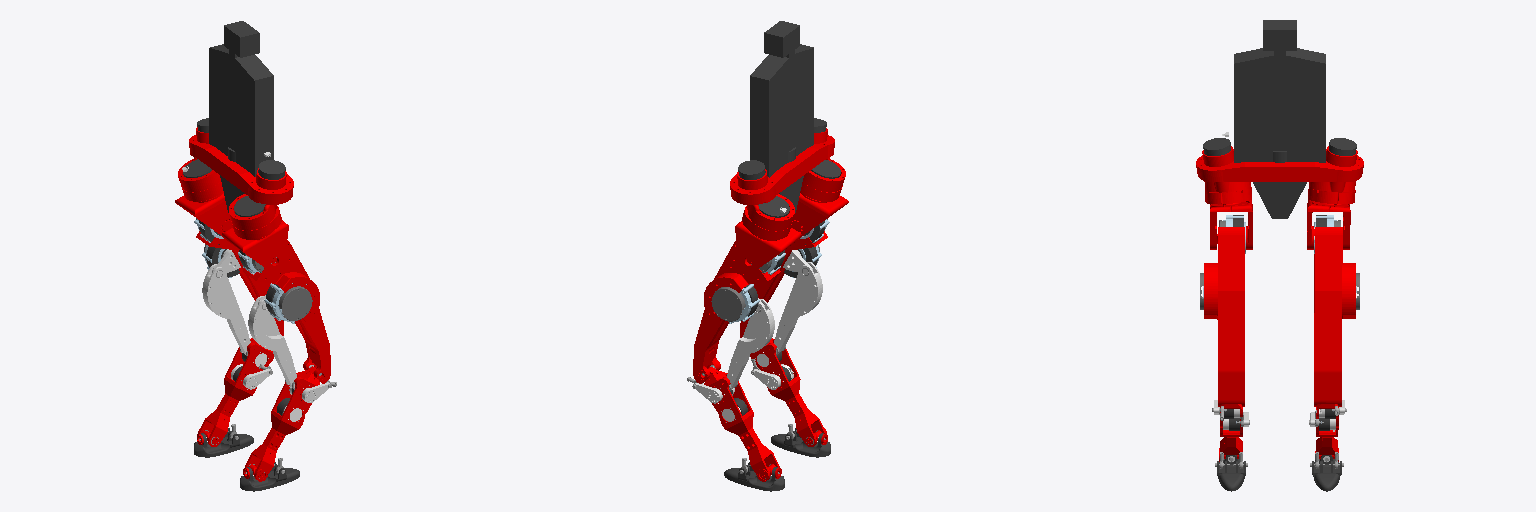
--- Render facts (derived) ---
3 views of the same robot in one strip: view 1: azimuth 30°, elevation 25°; view 2: azimuth 150°, elevation 25°; view 3: azimuth 270°, elevation 25° (orthographic).
Model urdf with 17 links and 16 joints (12 revolute, 4 fixed), rooted at torso_subassembly, posed all joints at 0.
Links seen in each view (by area): view 1: torso_mesh, tigh_subassembly, tigh_subassembly_sym, torso_subassembly, shin_subassembly, shin_subassembly_sym, hipx_subassembly, hipy_subassembly, hipx_subassemby_sym, hipy_subassembly_sym, foot_subassembly_2, foot_subassembly; view 2: torso_mesh, tigh_subassembly_sym, tigh_subassembly, torso_subassembly, shin_subassembly_sym, shin_subassembly, hipx_subassemby_sym, hipy_subassembly_sym, hipx_subassembly, hipy_subassembly, foot_subassembly, foot_subassembly_2; view 3: torso_mesh, tigh_subassembly_sym, tigh_subassembly, torso_subassembly, shin_subassembly, shin_subassembly_sym, hipx_subassemby_sym, hipx_subassembly, hipy_subassembly_sym, foot_subassembly_2, hipy_subassembly, foot_subassembly.
Boxes of the visible links, bbox=[...] form: torso_mesh: bbox=[209, 21, 273, 212]; tigh_subassembly: bbox=[238, 240, 330, 389]; tigh_subassembly_sym: bbox=[194, 218, 283, 355]; torso_subassembly: bbox=[189, 118, 293, 204]; shin_subassembly: bbox=[245, 366, 336, 481]; shin_subassembly_sym: bbox=[198, 338, 273, 446]; hipx_subassembly: bbox=[229, 194, 281, 239]; hipy_subassembly: bbox=[222, 220, 288, 271]; hipx_subassemby_sym: bbox=[178, 157, 222, 201]; hipy_subassembly_sym: bbox=[175, 191, 232, 235]; foot_subassembly_2: bbox=[194, 424, 253, 457]; foot_subassembly: bbox=[240, 458, 299, 491]; torso_mesh: bbox=[750, 21, 813, 212]; tigh_subassembly_sym: bbox=[693, 241, 785, 390]; tigh_subassembly: bbox=[740, 219, 829, 355]; torso_subassembly: bbox=[730, 118, 834, 204]; shin_subassembly_sym: bbox=[687, 366, 779, 481]; shin_subassembly: bbox=[750, 338, 826, 446]; hipx_subassemby_sym: bbox=[742, 194, 794, 239]; hipy_subassembly_sym: bbox=[735, 221, 801, 271]; hipx_subassembly: bbox=[800, 157, 845, 201]; hipy_subassembly: bbox=[791, 192, 848, 235]; foot_subassembly: bbox=[771, 424, 830, 457]; foot_subassembly_2: bbox=[724, 458, 784, 491]; torso_mesh: bbox=[1234, 20, 1325, 218]; tigh_subassembly_sym: bbox=[1314, 215, 1359, 406]; tigh_subassembly: bbox=[1200, 215, 1245, 406]; torso_subassembly: bbox=[1196, 132, 1363, 181]; shin_subassembly: bbox=[1212, 400, 1249, 461]; shin_subassembly_sym: bbox=[1309, 400, 1346, 461]; hipx_subassemby_sym: bbox=[1308, 181, 1355, 206]; hipx_subassembly: bbox=[1204, 181, 1251, 206]; hipy_subassembly_sym: bbox=[1307, 200, 1350, 249]; foot_subassembly_2: bbox=[1310, 452, 1343, 491]; hipy_subassembly: bbox=[1210, 200, 1252, 249]; foot_subassembly: bbox=[1215, 452, 1247, 491].
Size in the robot's own frame: 0.2617 by 0.3635 by 1.07 metres.
166 mesh visuals loaded from 54 distinct referenced files (53 binary STL); not drawn: 8 (reference not matched to a file when rendering).

robot.urdf — urdf:
<?xml version="1.0" ?>
<!-- Generated using onshape-to-robot -->
<!-- Onshape https://cad.onshape.com/documents/fb645318a27646d1d8840be6/w/d1cae8805fb652b4d1614997/e/804a1da43f242001a05129b4 -->
<robot name="urdf">
  <!-- Link torso_subassembly -->
  <link name="torso_subassembly">
    <inertial>
      <origin xyz="-0.000668828 4.08197e-07 0.0384522" rpy="0 0 0"/>
      <mass value="1.68455"/>
      <inertia ixx="0.0196473" ixy="-3.02227e-10" ixz="9.19521e-07" iyy="0.00141686" iyz="1.31114e-10" izz="0.0199217"/>
    </inertial>
    <!-- Part robstrideo0 -->
    <visual>
      <origin xyz="-0.673363 0.0109625 0.061034" rpy="1.5708 5.05777e-15 -3.16527e-29"/>
      <geometry>
        <mesh filename="package://assets/robstrideo0.stl"/>
      </geometry>
      <material name="robstrideo0_material">
        <color rgba="0.301961 0.301961 0.301961 1"/>
      </material>
    </visual>
    <collision>
      <origin xyz="-0.673363 0.0109625 0.061034" rpy="1.5708 5.05777e-15 -3.16527e-29"/>
      <geometry>
        <mesh filename="package://assets/robstrideo0.stl"/>
      </geometry>
    </collision>
    <!-- Part rs00 -->
    <!-- Part torso22 -->
    <visual>
      <origin xyz="-0.000263039 0.233572 -0.0901625" rpy="-2.85923 -5.05932e-15 -3.14159"/>
      <geometry>
        <mesh filename="package://assets/torso22.stl"/>
      </geometry>
      <material name="torso22_material">
        <color rgba="1 0 0 1"/>
      </material>
    </visual>
    <collision>
      <origin xyz="-0.000263039 0.233572 -0.0901625" rpy="-2.85923 -5.05932e-15 -3.14159"/>
      <geometry>
        <mesh filename="package://assets/torso22.stl"/>
      </geometry>
    </collision>
    <!-- Part hex_socket_head_cap_screw_m4x0_70_x_20__832e47d784177ea3f1dabbaab534416e -->
    <!-- Part rs00_2 -->
    <!-- Part hex_socket_head_cap_screw_m4x0_70_x_20__832e47d784177ea3f1dabbaab534416e_2 -->
    <!-- Part hex_socket_head_cap_screw_m3x0_50_x_8__d566997e1880d7fd3377c5b0ee12206c -->
    <!-- Part hex_socket_head_cap_screw_m3x0_50_x_8__d566997e1880d7fd3377c5b0ee12206c_2 -->
    <!-- Part bearing_35_72_17 -->
    <visual>
      <origin xyz="-0.000887454 -0.130401 0.0222352" rpy="1.42962 -0.00345593 -3.1411"/>
      <geometry>
        <mesh filename="package://assets/bearing_35_72_17.stl"/>
      </geometry>
      <material name="bearing_35_72_17_material">
        <color rgba="0.768627 0.886275 0.952941 1"/>
      </material>
    </visual>
    <collision>
      <origin xyz="-0.000887454 -0.130401 0.0222352" rpy="1.42962 -0.00345593 -3.1411"/>
      <geometry>
        <mesh filename="package://assets/bearing_35_72_17.stl"/>
      </geometry>
    </collision>
    <!-- Part hex_socket_head_cap_screw_m4x0_70_x_20__832e47d784177ea3f1dabbaab534416e_3 -->
    <!-- Part hex_socket_head_cap_screw_m4x0_70_x_20__832e47d784177ea3f1dabbaab534416e_4 -->
    <!-- Part hex_socket_head_cap_screw_m4x0_70_x_20__832e47d784177ea3f1dabbaab534416e_5 -->
    <!-- Part robstrideo0_2 -->
    <visual>
      <origin xyz="0.672086 -0.147255 0.0629195" rpy="1.42962 -0.00345593 -3.1411"/>
      <geometry>
        <mesh filename="package://assets/robstrideo0.stl"/>
      </geometry>
      <material name="robstrideo0_2_material">
        <color rgba="0.301961 0.301961 0.301961 1"/>
      </material>
    </visual>
    <collision>
      <origin xyz="0.672086 -0.147255 0.0629195" rpy="1.42962 -0.00345593 -3.1411"/>
      <geometry>
        <mesh filename="package://assets/robstrideo0.stl"/>
      </geometry>
    </collision>
    <!-- Part hex_socket_head_cap_screw_m3x0_50_x_8__d566997e1880d7fd3377c5b0ee12206c_3 -->
    <!-- Part hex_socket_head_cap_screw_m4x0_70_x_20__832e47d784177ea3f1dabbaab534416e_6 -->
    <!-- Part hex_socket_head_cap_screw_m3x0_50_x_8__d566997e1880d7fd3377c5b0ee12206c_4 -->
    <!-- Part hex_socket_head_cap_screw_m4x0_70_x_20__832e47d784177ea3f1dabbaab534416e_7 -->
    <!-- Part hex_socket_head_cap_screw_m4x0_70_x_20__832e47d784177ea3f1dabbaab534416e_8 -->
    <!-- Part hex_socket_head_cap_screw_m3x0_50_x_8__d566997e1880d7fd3377c5b0ee12206c_5 -->
    <!-- Part hex_socket_head_cap_screw_m4x0_70_x_20__832e47d784177ea3f1dabbaab534416e_9 -->
    <!-- Part hex_socket_head_cap_screw_m3x0_50_x_8__d566997e1880d7fd3377c5b0ee12206c_6 -->
    <!-- Part robstrideo0_3 -->
    <visual>
      <origin xyz="0.672086 0.12555 0.0660044" rpy="1.71198 -0.00345593 3.1411"/>
      <geometry>
        <mesh filename="package://assets/robstrideo0.stl"/>
      </geometry>
      <material name="robstrideo0_3_material">
        <color rgba="0.301961 0.301961 0.301961 1"/>
      </material>
    </visual>
    <collision>
      <origin xyz="0.672086 0.12555 0.0660044" rpy="1.71198 -0.00345593 3.1411"/>
      <geometry>
        <mesh filename="package://assets/robstrideo0.stl"/>
      </geometry>
    </collision>
    <!-- Part hex_socket_head_cap_screw_m3x0_50_x_8__d566997e1880d7fd3377c5b0ee12206c_7 -->
    <!-- Part hex_socket_head_cap_screw_m3x0_50_x_8__d566997e1880d7fd3377c5b0ee12206c_8 -->
    <!-- Part hex_socket_head_cap_screw_m4x0_70_x_20__832e47d784177ea3f1dabbaab534416e_10 -->
    <!-- Part torso12 -->
    <visual>
      <origin xyz="-0.000263039 4.05842e-07 -0.056966" rpy="3.14159 -5.05777e-15 3.14159"/>
      <geometry>
        <mesh filename="package://assets/torso12.stl"/>
      </geometry>
      <material name="torso12_material">
        <color rgba="1 0 0 1"/>
      </material>
    </visual>
    <collision>
      <origin xyz="-0.000263039 4.05842e-07 -0.056966" rpy="3.14159 -5.05777e-15 3.14159"/>
      <geometry>
        <mesh filename="package://assets/torso12.stl"/>
      </geometry>
    </collision>
    <!-- Part hex_socket_head_cap_screw_m4x0_70_x_20__832e47d784177ea3f1dabbaab534416e_11 -->
    <!-- Part hex_socket_head_cap_screw_m4x0_70_x_20__832e47d784177ea3f1dabbaab534416e_12 -->
    <!-- Part torso22_2 -->
    <visual>
      <origin xyz="-0.000263039 4.05842e-07 -0.056966" rpy="3.14159 -5.05777e-15 3.14159"/>
      <geometry>
        <mesh filename="package://assets/torso22.stl"/>
      </geometry>
      <material name="torso22_2_material">
        <color rgba="1 0 0 1"/>
      </material>
    </visual>
    <collision>
      <origin xyz="-0.000263039 4.05842e-07 -0.056966" rpy="3.14159 -5.05777e-15 3.14159"/>
      <geometry>
        <mesh filename="package://assets/torso22.stl"/>
      </geometry>
    </collision>
    <!-- Part hex_socket_head_cap_screw_m4x0_70_x_20__832e47d784177ea3f1dabbaab534416e_13 -->
    <!-- Part bearing_35_72_17_2 -->
    <visual>
      <origin xyz="-0.000887454 0.130402 0.0222352" rpy="1.71198 -0.00345593 3.1411"/>
      <geometry>
        <mesh filename="package://assets/bearing_35_72_17.stl"/>
      </geometry>
      <material name="bearing_35_72_17_2_material">
        <color rgba="0.768627 0.886275 0.952941 1"/>
      </material>
    </visual>
    <collision>
      <origin xyz="-0.000887454 0.130402 0.0222352" rpy="1.71198 -0.00345593 3.1411"/>
      <geometry>
        <mesh filename="package://assets/bearing_35_72_17.stl"/>
      </geometry>
    </collision>
    <!-- Part hex_socket_head_cap_screw_m3x0_50_x_8__d566997e1880d7fd3377c5b0ee12206c_9 -->
    <!-- Part hex_socket_head_cap_screw_m3x0_50_x_8__d566997e1880d7fd3377c5b0ee12206c_10 -->
    <!-- Part hex_socket_head_cap_screw_m3x0_50_x_8__d566997e1880d7fd3377c5b0ee12206c_11 -->
    <!-- Part hex_socket_head_cap_screw_m4x0_70_x_20__832e47d784177ea3f1dabbaab534416e_14 -->
    <!-- Part xt_30_2x2_f -->
    <visual>
      <origin xyz="-3.97731e-05 -0.105809 0.0903709" rpy="3.11704 -1.42957 -1.54599"/>
      <geometry>
        <mesh filename="package://assets/xt_30_2x2_f.stl"/>
      </geometry>
      <material name="xt_30_2x2_f_material">
        <color rgba="0.917647 0.917647 0.917647 1"/>
      </material>
    </visual>
    <collision>
      <origin xyz="-3.97731e-05 -0.105809 0.0903709" rpy="3.11704 -1.42957 -1.54599"/>
      <geometry>
        <mesh filename="package://assets/xt_30_2x2_f.stl"/>
      </geometry>
    </collision>
    <!-- Part hex_socket_head_cap_screw_m4x0_70_x_20__832e47d784177ea3f1dabbaab534416e_15 -->
    <!-- Part hex_socket_head_cap_screw_m4x0_70_x_20__832e47d784177ea3f1dabbaab534416e_16 -->
    <!-- Part hex_socket_head_cap_screw_m3x0_50_x_8__d566997e1880d7fd3377c5b0ee12206c_12 -->
  </link>
  <!-- Frame torso (dummy link + fixed joint) -->
  <link name="torso">
    <origin xyz="0 0 0" rpy="0 -0 0"/>
    <inertial>
      <origin xyz="0 0 0" rpy="0 0 0"/>
      <mass value="1e-9"/>
      <inertia ixx="0" ixy="0" ixz="0" iyy="0" iyz="0" izz="0"/>
    </inertial>
  </link>
  <joint name="torso_frame" type="fixed">
    <origin xyz="1.28979e-17 1.37152e-17 -3.20924e-17" rpy="4.10208e-29 5.06304e-15 -3.16699e-29"/>
    <parent link="torso_subassembly"/>
    <child link="torso"/>
    <axis xyz="0 0 0"/>
  </joint>
  <!-- Link hipx_subassembly -->
  <link name="hipx_subassembly">
    <inertial>
      <origin xyz="-0.0179437 -0.0274254 -0.0837243" rpy="0 0 0"/>
      <mass value="0.794013"/>
      <inertia ixx="0.00093782" ixy="-4.40032e-05" ixz="-0.00011053" iyy="0.000903422" iyz="-0.000168643" izz="0.00100397"/>
    </inertial>
    <!-- Part rs02 -->
    <!-- Part hex_socket_head_cap_screw_m4x0_70_x_40__14321d45d56569246e7feb4574a6bae6 -->
    <!-- Part hex_socket_head_cap_screw_m3x0_50_x_8__d566997e1880d7fd3377c5b0ee12206c_13 -->
    <!-- Part hex_socket_head_cap_screw_m3x0_50_x_8__d566997e1880d7fd3377c5b0ee12206c_14 -->
    <!-- Part hex_socket_head_cap_screw_m4x0_70_x_40__14321d45d56569246e7feb4574a6bae6_2 -->
    <!-- Part hex_socket_head_cap_screw_m3x0_50_x_8__d566997e1880d7fd3377c5b0ee12206c_15 -->
    <!-- Part xt_30_2x2_f_2 -->
    <visual>
      <origin xyz="-0.0280156 -0.000591536 -0.0506633" rpy="-2.51827 -1.25093 -2.15149"/>
      <geometry>
        <mesh filename="package://assets/xt_30_2x2_f.stl"/>
      </geometry>
      <material name="xt_30_2x2_f_2_material">
        <color rgba="0.917647 0.917647 0.917647 1"/>
      </material>
    </visual>
    <collision>
      <origin xyz="-0.0280156 -0.000591536 -0.0506633" rpy="-2.51827 -1.25093 -2.15149"/>
      <geometry>
        <mesh filename="package://assets/xt_30_2x2_f.stl"/>
      </geometry>
    </collision>
    <!-- Part hex_socket_head_cap_screw_m3x0_50_x_8__d566997e1880d7fd3377c5b0ee12206c_16 -->
    <!-- Part hex_socket_head_cap_screw_m4x0_70_x_40__14321d45d56569246e7feb4574a6bae6_3 -->
    <!-- Part hex_socket_head_cap_screw_m4x0_70_x_40__14321d45d56569246e7feb4574a6bae6_4 -->
    <!-- Part hex_socket_head_cap_screw_m3x0_50_x_8__d566997e1880d7fd3377c5b0ee12206c_17 -->
    <!-- Part hipz12 -->
    <visual>
      <origin xyz="-1.38778e-17 6.93889e-18 -0.1" rpy="-3.14159 1.32469e-17 -1.19752e-17"/>
      <geometry>
        <mesh filename="package://assets/hipz12.stl"/>
      </geometry>
      <material name="hipz12_material">
        <color rgba="1 0 0 1"/>
      </material>
    </visual>
    <collision>
      <origin xyz="-1.38778e-17 6.93889e-18 -0.1" rpy="-3.14159 1.32469e-17 -1.19752e-17"/>
      <geometry>
        <mesh filename="package://assets/hipz12.stl"/>
      </geometry>
    </collision>
    <!-- Part hex_socket_head_cap_screw_m4x0_70_x_40__14321d45d56569246e7feb4574a6bae6_5 -->
    <!-- Part hex_socket_head_cap_screw_m3x0_50_x_8__d566997e1880d7fd3377c5b0ee12206c_18 -->
    <!-- Part hex_socket_head_cap_screw_m3x0_50_x_8__d566997e1880d7fd3377c5b0ee12206c_19 -->
    <!-- Part robstride02 -->
    <visual>
      <origin xyz="-0.575896 0.0494047 -0.172196" rpy="-1.29671 -0.167023 -0.0467087"/>
      <geometry>
        <mesh filename="package://assets/robstride02.stl"/>
      </geometry>
      <material name="robstride02_material">
        <color rgba="0.301961 0.301961 0.301961 1"/>
      </material>
    </visual>
    <collision>
      <origin xyz="-0.575896 0.0494047 -0.172196" rpy="-1.29671 -0.167023 -0.0467087"/>
      <geometry>
        <mesh filename="package://assets/robstride02.stl"/>
      </geometry>
    </collision>
    <!-- Part hex_socket_head_cap_screw_m4x0_70_x_40__14321d45d56569246e7feb4574a6bae6_6 -->
    <!-- Part hex_socket_head_cap_screw_m3x0_50_x_8__d566997e1880d7fd3377c5b0ee12206c_20 -->
    <!-- Part hex_socket_head_cap_screw_m4x0_70_x_40__14321d45d56569246e7feb4574a6bae6_7 -->
    <!-- Part hex_socket_head_cap_screw_m4x0_70_x_40__14321d45d56569246e7feb4574a6bae6_8 -->
    <!-- Part hex_socket_head_cap_screw_m3x0_50_x_8__d566997e1880d7fd3377c5b0ee12206c_21 -->
    <!-- Part bearing_35_72_17_3 -->
    <visual>
      <origin xyz="-0.01759 -0.0267968 -0.104484" rpy="1.84488 -0.167023 -0.0467087"/>
      <geometry>
        <mesh filename="package://assets/bearing_35_72_17.stl"/>
      </geometry>
      <material name="bearing_35_72_17_3_material">
        <color rgba="0.768627 0.886275 0.952941 1"/>
      </material>
    </visual>
    <collision>
      <origin xyz="-0.01759 -0.0267968 -0.104484" rpy="1.84488 -0.167023 -0.0467087"/>
      <geometry>
        <mesh filename="package://assets/bearing_35_72_17.stl"/>
      </geometry>
    </collision>
    <!-- Part hex_socket_head_cap_screw_m3x0_50_x_8__d566997e1880d7fd3377c5b0ee12206c_22 -->
    <!-- Part hex_socket_head_cap_screw_m3x0_50_x_8__d566997e1880d7fd3377c5b0ee12206c_23 -->
    <!-- Part hex_socket_head_cap_screw_m4x0_70_x_40__14321d45d56569246e7feb4574a6bae6_9 -->
    <!-- Part hex_socket_head_cap_screw_m3x0_50_x_8__d566997e1880d7fd3377c5b0ee12206c_24 -->
    <!-- Part hipz22 -->
    <visual>
      <origin xyz="-1.38778e-17 6.93889e-18 -0.1" rpy="-3.14159 6.82054e-17 3.01998e-16"/>
      <geometry>
        <mesh filename="package://assets/hipz22.stl"/>
      </geometry>
      <material name="hipz22_material">
        <color rgba="1 0 0 1"/>
      </material>
    </visual>
    <collision>
      <origin xyz="-1.38778e-17 6.93889e-18 -0.1" rpy="-3.14159 6.82054e-17 3.01998e-16"/>
      <geometry>
        <mesh filename="package://assets/hipz22.stl"/>
      </geometry>
    </collision>
    <!-- Part hex_socket_head_cap_screw_m3x0_50_x_8__d566997e1880d7fd3377c5b0ee12206c_25 -->
    <!-- Part hex_socket_head_cap_screw_m3x0_50_x_8__d566997e1880d7fd3377c5b0ee12206c_26 -->
    <!-- Part hex_socket_head_cap_screw_m3x0_50_x_8__d566997e1880d7fd3377c5b0ee12206c_27 -->
    <!-- Part hex_socket_head_cap_screw_m4x0_70_x_40__14321d45d56569246e7feb4574a6bae6_10 -->
  </link>
  <!-- Link hipy_subassembly -->
  <link name="hipy_subassembly">
    <inertial>
      <origin xyz="0.00476547 -0.00266343 -0.0607297" rpy="0 0 0"/>
      <mass value="0.241618"/>
      <inertia ixx="0.000504044" ixy="2.43362e-05" ixz="7.84949e-06" iyy="0.000455767" iyz="-3.61499e-05" izz="0.000428966"/>
    </inertial>
    <!-- Part hex_socket_head_cap_screw_m4x0_70_x_20__832e47d784177ea3f1dabbaab534416e_17 -->
    <!-- Part hipxy -->
    <visual>
      <origin xyz="-6.50521e-18 1.38778e-17 0" rpy="-1.13176e-17 7.73754e-17 -2.3639e-17"/>
      <geometry>
        <mesh filename="package://assets/hipxy.stl"/>
      </geometry>
      <material name="hipxy_material">
        <color rgba="1 0 0 1"/>
      </material>
    </visual>
    <collision>
      <origin xyz="-6.50521e-18 1.38778e-17 0" rpy="-1.13176e-17 7.73754e-17 -2.3639e-17"/>
      <geometry>
        <mesh filename="package://assets/hipxy.stl"/>
      </geometry>
    </collision>
    <!-- Part hex_socket_head_cap_screw_m4x0_70_x_20__832e47d784177ea3f1dabbaab534416e_18 -->
    <!-- Part hex_socket_head_cap_screw_m4x0_70_x_20__832e47d784177ea3f1dabbaab534416e_19 -->
    <!-- Part hex_socket_head_cap_screw_m4x0_70_x_12__c825518ee8edf1afced0eee1b019b750 -->
    <!-- Part hex_socket_head_cap_screw_m4x0_70_x_20__832e47d784177ea3f1dabbaab534416e_20 -->
    <!-- Part hex_socket_head_cap_screw_m4x0_70_x_12__c825518ee8edf1afced0eee1b019b750_2 -->
    <!-- Part hex_socket_head_cap_screw_m4x0_70_x_12__c825518ee8edf1afced0eee1b019b750_3 -->
    <!-- Part hex_socket_head_cap_screw_m4x0_70_x_20__832e47d784177ea3f1dabbaab534416e_21 -->
    <!-- Part hex_socket_head_cap_screw_m4x0_70_x_20__832e47d784177ea3f1dabbaab534416e_22 -->
    <!-- Part hex_socket_head_cap_screw_m4x0_70_x_12__c825518ee8edf1afced0eee1b019b750_4 -->
    <!-- Part hex_socket_head_cap_screw_m4x0_70_x_12__c825518ee8edf1afced0eee1b019b750_5 -->
    <!-- Part hex_socket_head_cap_screw_m4x0_70_x_12__c825518ee8edf1afced0eee1b019b750_6 -->
  </link>
  <!-- Link tigh_subassembly -->
  <link name="tigh_subassembly">
    <inertial>
      <origin xyz="0.0501976 0.0785779 -0.0353813" rpy="0 0 0"/>
      <mass value="2.5804"/>
      <inertia ixx="0.0174359" ixy="-0.0081889" ixz="0.000938636" iyy="0.00865749" iyz="0.00155247" izz="0.0236145"/>
    </inertial>
    <!-- Part hex_socket_head_cap_screw_m3x0_50_x_10__9c80fcbba574884e63b580474e1ee150 -->
    <!-- Part hex_socket_head_cap_screw_m2_5x0_45_x_6__ec244025d76f8b83b2775022a2cb3232 -->
    <!-- Part hex_socket_head_cap_screw_m4x0_70_x_8__a416dc2a8d778a4ef6150c0739aa89d1 -->
    <!-- Part hex_socket_head_cap_screw_m2_5x0_45_x_6__ec244025d76f8b83b2775022a2cb3232_2 -->
    <!-- Part hex_socket_head_cap_screw_m4x0_70_x_8__a416dc2a8d778a4ef6150c0739aa89d1_2 -->
    <!-- Part hex_socket_head_cap_screw_m3x0_50_x_10__9c80fcbba574884e63b580474e1ee150_2 -->
    <!-- Part hex_socket_head_cap_screw_m4x0_70_x_16__8d628c0d7a90368385b1c4c7479647eb -->
    <!-- Part hex_socket_head_cap_screw_m4x0_70_x_8__a416dc2a8d778a4ef6150c0739aa89d1_3 -->
    <!-- Part hex_socket_head_cap_screw_m4x0_70_x_16__8d628c0d7a90368385b1c4c7479647eb_2 -->
    <!-- Part hex_socket_head_cap_screw_m4x0_70_x_8__a416dc2a8d778a4ef6150c0739aa89d1_4 -->
    <!-- Part knee_rod22 -->
    <visual>
      <origin xyz="0.210506 0.184547 -0.0305" rpy="1.5708 -2.30453e-13 -1.0472"/>
      <geometry>
        <mesh filename="package://assets/knee_rod22.stl"/>
      </geometry>
      <material name="knee_rod22_material">
        <color rgba="0.917647 0.917647 0.917647 1"/>
      </material>
    </visual>
    <collision>
      <origin xyz="0.210506 0.184547 -0.0305" rpy="1.5708 -2.30453e-13 -1.0472"/>
      <geometry>
        <mesh filename="package://assets/knee_rod22.stl"/>
      </geometry>
    </collision>
    <!-- Part hex_socket_head_cap_screw_m4x0_70_x_8__a416dc2a8d778a4ef6150c0739aa89d1_5 -->
    <!-- Part hex_socket_head_cap_screw_m4x0_70_x_16__8d628c0d7a90368385b1c4c7479647eb_3 -->
    <!-- Part hex_socket_head_cap_screw_m4x0_70_x_16__8d628c0d7a90368385b1c4c7479647eb_4 -->
    <!-- Part hex_socket_head_cap_screw_m4x0_70_x_8__a416dc2a8d778a4ef6150c0739aa89d1_6 -->
    <!-- Part bearing_15_21_4 -->
    <visual>
      <origin xyz="0.117923 0.320381 -0.0185" rpy="-1.5708 -2.30515e-13 -1.0472"/>
      <geometry>
        <mesh filename="package://assets/bearing_15_21_4.stl"/>
      </geometry>
      <material name="bearing_15_21_4_material">
        <color rgba="0.647059 0.647059 0.647059 1"/>
      </material>
    </visual>
    <collision>
      <origin xyz="0.117923 0.320381 -0.0185" rpy="-1.5708 -2.30515e-13 -1.0472"/>
      <geometry>
        <mesh filename="package://assets/bearing_15_21_4.stl"/>
      </geometry>
    </collision>
    <!-- Part bearing_15_21_4_2 -->
    <visual>
      <origin xyz="0.0130854 0.122429 -0.0245" rpy="-1.5708 -5.27497e-14 -2.31625e-13"/>
      <geometry>
        <mesh filename="package://assets/bearing_15_21_4.stl"/>
      </geometry>
      <material name="bearing_15_21_4_2_material">
        <color rgba="0.647059 0.647059 0.647059 1"/>
      </material>
    </visual>
    <collision>
      <origin xyz="0.0130854 0.122429 -0.0245" rpy="-1.5708 -5.27497e-14 -2.31625e-13"/>
      <geometry>
        <mesh filename="package://assets/bearing_15_21_4.stl"/>
      </geometry>
    </collision>
    <!-- Part hex_socket_head_cap_screw_m2_5x0_45_x_6__ec244025d76f8b83b2775022a2cb3232_3 -->
    <!-- Part hex_socket_head_cap_screw_m4x0_70_x_8__a416dc2a8d778a4ef6150c0739aa89d1_7 -->
    <!-- Part robstrideo3 -->
    <visual>
      <origin xyz="-0.437806 0.570998 -0.07" rpy="-1.5708 -1.50116e-13 -0.523599"/>
      <geometry>
        <mesh filename="package://assets/robstrideo3.stl"/>
      </geometry>
      <material name="robstrideo3_material">
        <color rgba="0.301961 0.301961 0.301961 1"/>
      </material>
    </visual>
    <collision>
      <origin xyz="-0.437806 0.570998 -0.07" rpy="-1.5708 -1.50116e-13 -0.523599"/>
      <geometry>
        <mesh filename="package://assets/robstrideo3.stl"/>
      </geometry>
    </collision>
    <!-- Part hex_socket_head_cap_screw_m4x0_70_x_16__8d628c0d7a90368385b1c4c7479647eb_5 -->
    <!-- Part bearing_15_21_4_3 -->
    <visual>
      <origin xyz="1.84922e-15 -9.82547e-15 -0.0635" rpy="1.5708 -1.50143e-13 -0.523599"/>
      <geometry>
        <mesh filename="package://assets/bearing_15_21_4.stl"/>
      </geometry>
      <material name="bearing_15_21_4_3_material">
        <color rgba="0.647059 0.647059 0.647059 1"/>
      </material>
    </visual>
    <collision>
      <origin xyz="1.84922e-15 -9.82547e-15 -0.0635" rpy="1.5708 -1.50143e-13 -0.523599"/>
      <geometry>
        <mesh filename="package://assets/bearing_15_21_4.stl"/>
      </geometry>
    </collision>
    <!-- Part bearing_15_21_4_4 -->
    <visual>
      <origin xyz="0.0130854 0.122429 -0.0365" rpy="1.5708 -5.27727e-14 -2.31621e-13"/>
      <geometry>
        <mesh filename="package://assets/bearing_15_21_4.stl"/>
      </geometry>
      <material name="bearing_15_21_4_4_material">
        <color rgba="0.647059 0.647059 0.647059 1"/>
      </material>
    </visual>
    <collision>
      <origin xyz="0.0130854 0.122429 -0.0365" rpy="1.5708 -5.27727e-14 -2.31621e-13"/>
      <geometry>
        <mesh filename="package://assets/bearing_15_21_4.stl"/>
      </geometry>
    </collision>
    <!-- Part hex_socket_head_cap_screw_m4x0_70_x_40__14321d45d56569246e7feb4574a6bae6_11 -->
    <!-- Part bearing_15_21_4_5 -->
    <visual>
      <origin xyz="0.117923 0.320381 -0.0425" rpy="1.5708 -2.3048e-13 -1.0472"/>
      <geometry>
        <mesh filename="package://assets/bearing_15_21_4.stl"/>
      </geometry>
      <material name="bearing_15_21_4_5_material">
        <color rgba="0.647059 0.647059 0.647059 1"/>
      </material>
    </visual>
    <collision>
      <origin xyz="0.117923 0.320381 -0.0425" rpy="1.5708 -2.3048e-13 -1.0472"/>
      <geometry>
        <mesh filename="package://assets/bearing_15_21_4.stl"/>
      </geometry>
    </collision>
    <!-- Part hex_socket_head_cap_screw_m4x0_70_x_40__14321d45d56569246e7feb4574a6bae6_12 -->
    <!-- Part hex_socket_head_cap_screw_m4x0_70_x_8__a416dc2a8d778a4ef6150c0739aa89d1_8 -->
    <!-- Part hex_socket_head_cap_screw_m2_5x0_45_x_6__ec244025d76f8b83b2775022a2cb3232_4 -->
    <!-- Part hex_socket_head_cap_screw_m2_5x0_45_x_6__ec244025d76f8b83b2775022a2cb3232_5 -->
    <!-- Part hex_socket_head_cap_screw_m4x0_70_x_8__a416dc2a8d778a4ef6150c0739aa89d1_9 -->
    <!-- Part knee_rod12 -->
    <visual>
      <origin xyz="0.210506 0.184547 -0.0305" rpy="1.5708 -2.30737e-13 -1.0472"/>
      <geometry>
        <mesh filename="package://assets/knee_rod12.stl"/>
      </geometry>
      <material name="knee_rod12_material">
        <color rgba="0.917647 0.917647 0.917647 1"/>
      </material>
    </visual>
    <collision>
      <origin xyz="0.210506 0.184547 -0.0305" rpy="1.5708 -2.30737e-13 -1.0472"/>
      <geometry>
        <mesh filename="package://assets/knee_rod12.stl"/>
      </geometry>
    </collision>
    <!-- Part hex_socket_head_cap_screw_m4x0_70_x_8__a416dc2a8d778a4ef6150c0739aa89d1_10 -->
    <!-- Part bearing_5_16_5 -->
    <visual>
      <origin xyz="0.17 0.294449 -0.05" rpy="-1.5708 -1.49914e-13 -0.523599"/>
      <geometry>
        <mesh filename="package://assets/bearing_5_16_5.stl"/>
      </geometry>
      <material name="bearing_5_16_5_material">
        <color rgba="0.917647 0.917647 0.917647 1"/>
      </material>
    </visual>
    <collision>
      <origin xyz="0.17 0.294449 -0.05" rpy="-1.5708 -1.49914e-13 -0.523599"/>
      <geometry>
        <mesh filename="package://assets/bearing_5_16_5.stl"/>
      </geometry>
    </collision>
    <!-- Part hex_socket_head_cap_screw_m4x0_70_x_8__a416dc2a8d778a4ef6150c0739aa89d1_11 -->
    <!-- Part hex_socket_head_cap_screw_m4x0_70_x_8__a416dc2a8d778a4ef6150c0739aa89d1_12 -->
    <!-- Part hex_socket_head_cap_screw_m4x0_70_x_8__a416dc2a8d778a4ef6150c0739aa89d1_13 -->
    <!-- Part hex_socket_head_cap_screw_m4x0_70_x_40__14321d45d56569246e7feb4574a6bae6_13 -->
    <!-- Part knee_actuation -->
    <visual>
      <origin xyz="0.058 0.324459 -0.0305" rpy="1.5708 -5.27369e-14 -2.31625e-13"/>
      <geometry>
        <mesh filename="package://assets/knee_actuation.stl"/>
      </geometry>
      <material name="knee_actuation_material">
        <color rgba="0.917647 0.917647 0.917647 1"/>
      </material>
    </visual>
    <collision>
      <origin xyz="0.058 0.324459 -0.0305" rpy="1.5708 -5.27369e-14 -2.31625e-13"/>
      <geometry>
        <mesh filename="package://assets/knee_actuation.stl"/>
      </geometry>
    </collision>
    <!-- Part hex_socket_head_cap_screw_m4x0_70_x_16__8d628c0d7a90368385b1c4c7479647eb_6 -->
    <!-- Part hex_socket_head_cap_screw_m3x0_50_x_10__9c80fcbba574884e63b580474e1ee150_3 -->
    <!-- Part hex_socket_head_cap_screw_m4x0_70_x_8__a416dc2a8d778a4ef6150c0739aa89d1_14 -->
    <!-- Part bearing_5_16_5_2 -->
    <visual>
      <origin xyz="0.17 0.294449 -0.01425" rpy="-1.5708 -1.49914e-13 -0.523599"/>
      <geometry>
        <mesh filename="package://assets/bearing_5_16_5.stl"/>
      </geometry>
      <material name="bearing_5_16_5_2_material">
        <color rgba="0.917647 0.917647 0.917647 1"/>
      </material>
    </visual>
    <collision>
      <origin xyz="0.17 0.294449 -0.01425" rpy="-1.5708 -1.49914e-13 -0.523599"/>
      <geometry>
        <mesh filename="package://assets/bearing_5_16_5.stl"/>
      </geometry>
    </collision>
    <!-- Part femur_22 -->
    <visual>
      <origin xyz="0.17 0.294449 -0.0305" rpy="1.5708 -1.5006e-13 -0.523599"/>
      <geometry>
        <mesh filename="package://assets/femur_22.stl"/>
      </geometry>
      <material name="femur_22_material">
        <color rgba="1 0 0 1"/>
      </material>
    </visual>
    <collision>
      <origin xyz="0.17 0.294449 -0.0305" rpy="1.5708 -1.5006e-13 -0.523599"/>
      <geometry>
        <mesh filename="package://assets/femur_22.stl"/>
      </geometry>
    </collision>
    <!-- Part hex_socket_head_cap_screw_m4x0_70_x_40__14321d45d56569246e7feb4574a6bae6_14 -->
    <!-- Part femur_12 -->
    <visual>
      <origin xyz="0.17 0.294449 -0.0305" rpy="1.5708 -1.50136e-13 -0.523599"/>
      <geometry>
        <mesh filename="package://assets/femur_12.stl"/>
      </geometry>
      <material name="femur_12_material">
        <color rgba="1 0 0 1"/>
      </material>
    </visual>
    <collision>
      <origin xyz="0.17 0.294449 -0.0305" rpy="1.5708 -1.50136e-13 -0.523599"/>
      <geometry>
        <mesh filename="package://assets/femur_12.stl"/>
      </geometry>
    </collision>
    <!-- Part hat_femur -->
    <visual>
      <origin xyz="0.17 0.294449 -0.0305" rpy="1.5708 -1.50116e-13 -0.523599"/>
      <geometry>
        <mesh filename="package://assets/hat_femur.stl"/>
      </geometry>
      <material name="hat_femur_material">
        <color rgba="1 0 0 1"/>
      </material>
    </visual>
    <collision>
      <origin xyz="0.17 0.294449 -0.0305" rpy="1.5708 -1.50116e-13 -0.523599"/>
      <geometry>
        <mesh filename="package://assets/hat_femur.stl"/>
      </geometry>
    </collision>
    <!-- Part part_3 -->
    <visual>
      <origin xyz="2.27943e-15 -1.74305e-14 -0.0938" rpy="-2.61799 1.5708 0"/>
      <geometry>
        <mesh filename="package://assets/part_3.stl"/>
      </geometry>
      <material name="part_3_material">
        <color rgba="1 0 0 1"/>
      </material>
    </visual>
    <collision>
      <origin xyz="2.27943e-15 -1.74305e-14 -0.0938" rpy="-2.61799 1.5708 0"/>
      <geometry>
        <mesh filename="package://assets/part_3.stl"/>
      </geometry>
    </collision>
    <!-- Part robstrideo3_2 -->
    <visual>
      <origin xyz="-0.495806 0.470539 -0.0275" rpy="-1.5708 -1.50116e-13 -0.523599"/>
      <geometry>
        <mesh filename="package://assets/robstrideo3.stl"/>
      </geometry>
      <material name="robstrideo3_2_material">
        <color rgba="0.301961 0.301961 0.301961 1"/>
      </material>
    </visual>
    <collision>
      <origin xyz="-0.495806 0.470539 -0.0275" rpy="-1.5708 -1.50116e-13 -0.523599"/>
      <geometry>
        <mesh filename="package://assets/robstrideo3.stl"/>
      </geometry>
    </collision>
    <!-- Part hex_socket_head_cap_screw_m2_5x0_45_x_6__ec244025d76f8b83b2775022a2cb3232_6 -->
    <!-- Part 1_1_31_qt_942_1 -->
    <visual>
      <origin xyz="3.72619e-15 -4.38538e-15 -0.04" rpy="1.05498e-13 -1.32004e-13 -2.0944"/>
      <geometry>
        <mesh filename="package://assets/1_1_31_qt_942_1.stl"/>
      </geometry>
      <material name="1_1_31_qt_942_1_material">
        <color rgba="0.768627 0.886275 0.952941 1"/>
      </material>
    </visual>
    <collision>
      <origin xyz="3.72619e-15 -4.38538e-15 -0.04" rpy="1.05498e-13 -1.32004e-13 -2.0944"/>
      <geometry>
        <mesh filename="package://assets/1_1_31_qt_942_1.stl"/>
      </geometry>
    </collision>
    <!-- Part 1_1_06_eb903_538_1 -->
    <visual>
      <origin xyz="4.33681e-15 -5.91194e-15 -0.0566" rpy="1.05498e-13 -1.32004e-13 -2.0944"/>
      <geometry>
        <mesh filename="package://assets/1_1_06_eb903_538_1.stl"/>
      </geometry>
      <material name="1_1_06_eb903_538_1_material">
        <color rgba="0.498039 0.498039 0.498039 1"/>
      </material>
    </visual>
    <collision>
      <origin xyz="4.33681e-15 -5.91194e-15 -0.0566" rpy="1.05498e-13 -1.32004e-13 -2.0944"/>
      <geometry>
        <mesh filename="package://assets/1_1_06_eb903_538_1.stl"/>
      </geometry>
    </collision>
    <!-- Part 1_1_31_qt_942_1_2 -->
    <visual>
      <origin xyz="0.058 0.100459 -0.0825" rpy="3.05137e-13 1.63945e-13 2.61799"/>
      <geometry>
        <mesh filename="package://assets/1_1_31_qt_942_1.stl"/>
      </geometry>
      <material name="1_1_31_qt_942_1_2_material">
        <color rgba="0.768627 0.886275 0.952941 1"/>
      </material>
    </visual>
    <collision>
      <origin xyz="0.058 0.100459 -0.0825" rpy="3.05137e-13 1.63945e-13 2.61799"/>
      <geometry>
        <mesh filename="package://assets/1_1_31_qt_942_1.stl"/>
      </geometry>
    </collision>
    <!-- Part 1_1_06_eb903_538_1_2 -->
    <visual>
      <origin xyz="0.058 0.100459 -0.0991" rpy="3.05137e-13 1.63945e-13 2.61799"/>
      <geometry>
        <mesh filename="package://assets/1_1_06_eb903_538_1.stl"/>
      </geometry>
      <material name="1_1_06_eb903_538_1_2_material">
        <color rgba="0.498039 0.498039 0.498039 1"/>
      </material>
    </visual>
    <collision>
      <origin xyz="0.058 0.100459 -0.0991" rpy="3.05137e-13 1.63945e-13 2.61799"/>
      <geometry>
        <mesh filename="package://assets/1_1_06_eb903_538_1.stl"/>
      </geometry>
    </collision>
    <!-- Part 1_1_06_eb903_537_af0_1 -->
    <visual>
      <origin xyz="2.52229e-15 -4.08007e-15 -0.0375" rpy="-2.09276e-13 -1.50053e-13 -0.523599"/>
      <geometry>
        <mesh filename="package://assets/1_1_06_eb903_537_af0_1.stl"/>
      </geometry>
      <material name="1_1_06_eb903_537_af0_1_material">
        <color rgba="0.768627 0.886275 0.952941 1"/>
      </material>
    </visual>
    <collision>
      <origin xyz="2.52229e-15 -4.08007e-15 -0.0375" rpy="-2.09276e-13 -1.50053e-13 -0.523599"/>
      <geometry>
        <mesh filename="package://assets/1_1_06_eb903_537_af0_1.stl"/>
      </geometry>
    </collision>
    <!-- Part 1_1_02_eb901_558_1 -->
    <visual>
      <origin xyz="-3.46945e-18 -2.77556e-17 1.38778e-17" rpy="3.14159 6.90212e-30 1.88765e-17"/>
      <geometry>
        <mesh filename="package://assets/1_1_02_eb901_558_1.stl"/>
      </geometry>
      <material name="1_1_02_eb901_558_1_material">
        <color rgba="0.917647 0.917647 0.917647 1"/>
      </material>
    </visual>
    <collision>
      <origin xyz="-3.46945e-18 -2.77556e-17 1.38778e-17" rpy="3.14159 6.90212e-30 1.88765e-17"/>
      <geometry>
        <mesh filename="package://assets/1_1_02_eb901_558_1.stl"/>
      </geometry>
    </collision>
    <!-- Part 1_1_06_eb903_537_af0_1_2 -->
    <visual>
      <origin xyz="0.058 0.100459 -0.08" rpy="1.50011e-13 -1.97403e-13 -2.0944"/>
      <geometry>
        <mesh filename="package://assets/1_1_06_eb903_537_af0_1.stl"/>
      </geometry>
      <material name="1_1_06_eb903_537_af0_1_2_material">
        <color rgba="0.768627 0.886275 0.952941 1"/>
      </material>
    </visual>
    <collision>
      <origin xyz="0.058 0.100459 -0.08" rpy="1.50011e-13 -1.97403e-13 -2.0944"/>
      <geometry>
        <mesh filename="package://assets/1_1_06_eb903_537_af0_1.stl"/>
      </geometry>
    </collision>
    <!-- Part 1_1_02_eb901_558_1_2 -->
    <visual>
      <origin xyz="0.058 0.100459 -0.0425" rpy="-3.14159 -2.37081e-13 -1.5708"/>
      <geometry>
        <mesh filename="package://assets/1_1_02_eb901_558_1.stl"/>
      </geometry>
      <material name="1_1_02_eb901_558_1_2_material">
        <color rgba="0.917647 0.917647 0.917647 1"/>
      </material>
    </visual>
    <collision>
      <origin xyz="0.058 0.100459 -0.0425" rpy="-3.14159 -2.37081e-13 -1.5708"/>
      <geometry>
        <mesh filename="package://assets/1_1_02_eb901_558_1.stl"/>
      </geometry>
    </collision>
  </link>
  <!-- Link shin_subassembly -->
  <link name="shin_subassembly">
    <inertial>
      <origin xyz="-0.076547 -0.0486454 6.35117e-05" rpy="0 0 0"/>
      <mass value="0.593267"/>
      <inertia ixx="0.000600304" ixy="-0.000634649" ixz="-8.1197e-05" iyy="0.00138759" iyz="-4.81249e-05" izz="0.00176486"/>
    </inertial>
    <!-- Part hex_socket_head_cap_screw_m2_5x0_45_x_8__dec2226ceabd7d7ca0bb403ec234d89b -->
    <!-- Part rmdx43 -->
    <visual>
      <origin xyz="-0.2967 0.369726 0.019" rpy="1.5708 -4.60092e-16 -1.02188"/>
      <geometry>
        <mesh filename="package://assets/rmdx43.stl"/>
      </geometry>
      <material name="rmdx43_material">
        <color rgba="0.301961 0.301961 0.301961 1"/>
      </material>
    </visual>
    <collision>
      <origin xyz="-0.2967 0.369726 0.019" rpy="1.5708 -4.60092e-16 -1.02188"/>
      <geometry>
        <mesh filename="package://assets/rmdx43.stl"/>
      </geometry>
    </collision>
    <!-- Part xt_30_2x2_f_3 -->
    <visual>
      <origin xyz="-0.0609783 -0.00254913 -0.0142" rpy="2.11972 -1.5708 0"/>
      <geometry>
        <mesh filename="package://assets/xt_30_2x2_f.stl"/>
      </geometry>
      <material name="xt_30_2x2_f_3_material">
        <color rgba="0.917647 0.917647 0.917647 1"/>
      </material>
    </visual>
    <collision>
      <origin xyz="-0.0609783 -0.00254913 -0.0142" rpy="2.11972 -1.5708 0"/>
      <geometry>
        <mesh filename="package://assets/xt_30_2x2_f.stl"/>
      </geometry>
    </collision>
    <!-- Part hex_socket_head_cap_screw_m3x0_50_x_20__7252065e4445f5ec71347b53fcae11e4 -->
    <!-- Part hex_socket_head_cap_screw_m3x0_50_x_10__9c80fcbba574884e63b580474e1ee150_4 -->
    <!-- Part tibias22 -->
    <visual>
      <origin xyz="-0.221803 -0.135659 0.019" rpy="-1.5708 -4.53153e-16 -1.02188"/>
      <geometry>
        <mesh filename="package://assets/tibias22.stl"/>
      </geometry>
      <material name="tibias22_material">
        <color rgba="1 0 0 1"/>
      </material>
    </visual>
    <collision>
      <origin xyz="-0.221803 -0.135659 0.019" rpy="-1.5708 -4.53153e-16 -1.02188"/>
      <geometry>
        <mesh filename="package://assets/tibias22.stl"/>
      </geometry>
    </collision>
    <!-- Part 27628_01_050_catpart -->
    <visual>
      <origin xyz="0.00455194 -0.0324886 0.02" rpy="-1.5708 2.2444e-14 -0.745513"/>
      <geometry>
        <mesh filename="package://assets/27628_01_050_catpart.stl"/>
      </geometry>
      <material name="27628_01_050_catpart_material">
        <color rgba="0.690196 0.690196 0.690196 1"/>
      </material>
    </visual>
    <collision>
      <origin xyz="0.00455194 -0.0324886 0.02" rpy="-1.5708 2.2444e-14 -0.745513"/>
      <geometry>
        <mesh filename="package://assets/27628_01_050_catpart.stl"/>
      </geometry>
    </collision>
    <!-- Part hex_socket_head_cap_screw_m3x0_50_x_10__9c80fcbba574884e63b580474e1ee150_5 -->
    <!-- Part hex_socket_head_cap_screw_m3x0_50_x_10__9c80fcbba574884e63b580474e1ee150_6 -->
    <!-- Part hex_socket_head_cap_screw_m3x0_50_x_10__9c80fcbba574884e63b580474e1ee150_7 -->
    <!-- Part hex_thin_nut_grade_a___b_m4x0_7__a8228d9ce5dcc05f24da0a2f74d882f3 -->
    <visual>
      <origin xyz="-2.77556e-17 0 0.0247602" rpy="1.73472e-16 1.14492e-16 -6.79818e-17"/>
      <geometry>
        <mesh filename="package://assets/hex_thin_nut_grade_a___b_m4x0_7__a8228d9ce5dcc05f24da0a2f74d882f3.stl"/>
      </geometry>
      <material name="hex_thin_nut_grade_a___b_m4x0_7__a8228d9ce5dcc05f24da0a2f74d882f3_material">
        <color rgba="0.603922 0.647059 0.686275 1"/>
      </material>
    </visual>
    <collision>
      <origin xyz="-2.77556e-17 0 0.0247602" rpy="1.73472e-16 1.14492e-16 -6.79818e-17"/>
      <geometry>
        <mesh filename="package://assets/hex_thin_nut_grade_a___b_m4x0_7__a8228d9ce5dcc05f24da0a2f74d882f3.stl"/>
      </geometry>
    </collision>
    <!-- Part 07534_05x40_catpart -->
    <visual>
      <origin xyz="-2.77556e-17 0 -0.025" rpy="-1.5708 -1.5708 0"/>
      <geometry>
        <mesh filename="package://assets/07534_05x40_catpart.stl"/>
      </geometry>
      <material name="07534_05x40_catpart_material">
        <color rgba="0.690196 0.690196 0.690196 1"/>
      </material>
    </visual>
    <collision>
      <origin xyz="-2.77556e-17 0 -0.025" rpy="-1.5708 -1.5708 0"/>
      <geometry>
        <mesh filename="package://assets/07534_05x40_catpart.stl"/>
      </geometry>
    </collision>
    <!-- Part hex_thin_nut_grade_a___b_m4x0_7__a8228d9ce5dcc05f24da0a2f74d882f3_2 -->
    <visual>
      <origin xyz="-0.0406618 -0.0601422 -0.0112398" rpy="-3.14159 6.06258e-16 -0.0968529"/>
      <geometry>
        <mesh filename="package://assets/hex_thin_nut_grade_a___b_m4x0_7__a8228d9ce5dcc05f24da0a2f74d882f3.stl"/>
      </geometry>
      <material name="hex_thin_nut_grade_a___b_m4x0_7__a8228d9ce5dcc05f24da0a2f74d882f3_2_material">
        <color rgba="0.603922 0.647059 0.686275 1"/>
      </material>
    </visual>
    <collision>
      <origin xyz="-0.0406618 -0.0601422 -0.0112398" rpy="-3.14159 6.06258e-16 -0.0968529"/>
      <geometry>
        <mesh filename="package://assets/hex_thin_nut_grade_a___b_m4x0_7__a8228d9ce5dcc05f24da0a2f74d882f3.stl"/>
      </geometry>
    </collision>
    <!-- Part hex_socket_head_cap_screw_m3x0_50_x_20__7252065e4445f5ec71347b53fcae11e4_2 -->
    <!-- Part hex_socket_head_cap_screw_m3x0_50_x_10__9c80fcbba574884e63b580474e1ee150_8 -->
    <!-- Part 07534_05x20_catpart -->
    <visual>
      <origin xyz="-0.0406618 -0.0601422 -0.041" rpy="3.04474 -1.5708 0"/>
      <geometry>
        <mesh filename="package://assets/07534_05x20_catpart.stl"/>
      </geometry>
      <material name="07534_05x20_catpart_material">
        <color rgba="0.690196 0.690196 0.690196 1"/>
      </material>
    </visual>
    <collision>
      <origin xyz="-0.0406618 -0.0601422 -0.041" rpy="3.04474 -1.5708 0"/>
      <geometry>
        <mesh filename="package://assets/07534_05x20_catpart.stl"/>
      </geometry>
    </collision>
    <!-- Part actuation_ankle -->
    <visual>
      <origin xyz="-0.0303217 0.125625 -0.019" rpy="1.5708 1.93245e-13 -0.0968529"/>
      <geometry>
        <mesh filename="package://assets/actuation_ankle.stl"/>
      </geometry>
      <material name="actuation_ankle_material">
        <color rgba="0.917647 0.917647 0.917647 1"/>
      </material>
    </visual>
    <collision>
      <origin xyz="-0.0303217 0.125625 -0.019" rpy="1.5708 1.93245e-13 -0.0968529"/>
      <geometry>
        <mesh filename="package://assets/actuation_ankle.stl"/>
      </geometry>
    </collision>
    <!-- Part hex_socket_head_cap_screw_m3x0_50_x_30__cb22dc4460edbee8e1cbddf29677c00f -->
    <!-- Part rmdx43_2 -->
    <visual>
      <origin xyz="-0.341913 0.342073 0.006" rpy="1.5708 -4.53153e-16 -1.02188"/>
      <geometry>
        <mesh filename="package://assets/rmdx43.stl"/>
      </geometry>
      <material name="rmdx43_2_material">
        <color rgba="0.301961 0.301961 0.301961 1"/>
      </material>
    </visual>
    <collision>
      <origin xyz="-0.341913 0.342073 0.006" rpy="1.5708 -4.53153e-16 -1.02188"/>
      <geometry>
        <mesh filename="package://assets/rmdx43.stl"/>
      </geometry>
    </collision>
    <!-- Part hex_socket_head_cap_screw_m3x0_50_x_10__9c80fcbba574884e63b580474e1ee150_9 -->
    <!-- Part hex_socket_head_cap_screw_m3x0_50_x_20__7252065e4445f5ec71347b53fcae11e4_3 -->
    <!-- Part hex_socket_head_cap_screw_m3x0_50_x_10__9c80fcbba574884e63b580474e1ee150_10 -->
    <!-- Part hex_socket_head_cap_screw_m3x0_50_x_10__9c80fcbba574884e63b580474e1ee150_11 -->
    <!-- Part hex_socket_head_cap_screw_m3x0_50_x_10__9c80fcbba574884e63b580474e1ee150_12 -->
    <!-- Part hex_socket_head_cap_screw_m4x0_70_x_12__c825518ee8edf1afced0eee1b019b750_7 -->
    <!-- Part hex_socket_head_cap_screw_m3x0_50_x_20__7252065e4445f5ec71347b53fcae11e4_4 -->
    <!-- Part hex_socket_head_cap_screw_m3x0_50_x_20__7252065e4445f5ec71347b53fcae11e4_5 -->
    <!-- Part hex_socket_head_cap_screw_m3x0_50_x_10__9c80fcbba574884e63b580474e1ee150_13 -->
    <!-- Part hex_socket_head_cap_screw_m3x0_50_x_10__9c80fcbba574884e63b580474e1ee150_14 -->
    <!-- Part hex_socket_head_cap_screw_m3x0_50_x_10__9c80fcbba574884e63b580474e1ee150_15 -->
    <!-- Part hex_socket_head_cap_screw_m3x0_50_x_10__9c80fcbba574884e63b580474e1ee150_16 -->
    <!-- Part hex_socket_head_cap_screw_m3x0_50_x_20__7252065e4445f5ec71347b53fcae11e4_6 -->
    <!-- Part hex_socket_head_cap_screw_m3x0_50_x_10__9c80fcbba574884e63b580474e1ee150_17 -->
    <!-- Part hex_socket_head_cap_screw_m3x0_50_x_10__9c80fcbba574884e63b580474e1ee150_18 -->
    <!-- Part hex_socket_head_cap_screw_m3x0_50_x_10__9c80fcbba574884e63b580474e1ee150_19 -->
    <!-- Part hex_socket_head_cap_screw_m2_5x0_45_x_8__dec2226ceabd7d7ca0bb403ec234d89b_2 -->
    <!-- Part hex_socket_head_cap_screw_m4x0_70_x_12__c825518ee8edf1afced0eee1b019b750_8 -->
    <!-- Part hat_big -->
    <visual>
      <origin xyz="-0.221803 -0.135659 0.019" rpy="-1.5708 -4.60092e-16 -1.02188"/>
      <geometry>
        <mesh filename="package://assets/hat_big.stl"/>
      </geometry>
      <material name="hat_big_material">
        <color rgba="1 0 0 1"/>
      </material>
    </visual>
    <collision>
      <origin xyz="-0.221803 -0.135659 0.019" rpy="-1.5708 -4.60092e-16 -1.02188"/>
      <geometry>
        <mesh filename="package://assets/hat_big.stl"/>
      </geometry>
    </collision>
    <!-- Part 07534_05x20_catpart_2 -->
    <visual>
      <origin xyz="0.00455195 -0.0324886 0.041" rpy="-3.04474 1.5708 0"/>
      <geometry>
        <mesh filename="package://assets/07534_05x20_catpart.stl"/>
      </geometry>
      <material name="07534_05x20_catpart_2_material">
        <color rgba="0.690196 0.690196 0.690196 1"/>
      </material>
    </visual>
    <collision>
      <origin xyz="0.00455195 -0.0324886 0.041" rpy="-3.04474 1.5708 0"/>
      <geometry>
        <mesh filename="package://assets/07534_05x20_catpart.stl"/>
      </geometry>
    </collision>
    <!-- Part hex_socket_head_cap_screw_m4x0_70_x_12__c825518ee8edf1afced0eee1b019b750_9 -->
    <!-- Part hex_thin_nut_grade_a___b_m4x0_7__a8228d9ce5dcc05f24da0a2f74d882f3_3 -->
    <visual>
      <origin xyz="0.00455195 -0.0324886 0.0134397" rpy="-2.15663e-13 1.93359e-13 -0.0968529"/>
      <geometry>
        <mesh filename="package://assets/hex_thin_nut_grade_a___b_m4x0_7__a8228d9ce5dcc05f24da0a2f74d882f3.stl"/>
      </geometry>
      <material name="hex_thin_nut_grade_a___b_m4x0_7__a8228d9ce5dcc05f24da0a2f74d882f3_3_material">
        <color rgba="0.603922 0.647059 0.686275 1"/>
      </material>
    </visual>
    <collision>
      <origin xyz="0.00455195 -0.0324886 0.0134397" rpy="-2.15663e-13 1.93359e-13 -0.0968529"/>
      <geometry>
        <mesh filename="package://assets/hex_thin_nut_grade_a___b_m4x0_7__a8228d9ce5dcc05f24da0a2f74d882f3.stl"/>
      </geometry>
    </collision>
    <!-- Part hex_socket_head_cap_screw_m2_5x0_45_x_8__dec2226ceabd7d7ca0bb403ec234d89b_3 -->
    <!-- Part tibias12 -->
    <visual>
      <origin xyz="-0.221803 -0.135659 0.019" rpy="-1.5708 -4.60092e-16 -1.02188"/>
      <geometry>
        <mesh filename="package://assets/tibias12.stl"/>
      </geometry>
      <material name="tibias12_material">
        <color rgba="1 0 0 1"/>
      </material>
    </visual>
    <collision>
      <origin xyz="-0.221803 -0.135659 0.019" rpy="-1.5708 -4.60092e-16 -1.02188"/>
      <geometry>
        <mesh filename="package://assets/tibias12.stl"/>
      </geometry>
    </collision>
    <!-- Part hex_socket_head_cap_screw_m3x0_50_x_10__9c80fcbba574884e63b580474e1ee150_20 -->
    <!-- Part hex_socket_head_cap_screw_m3x0_50_x_20__7252065e4445f5ec71347b53fcae11e4_7 -->
    <!-- Part hex_socket_head_cap_screw_m3x0_50_x_10__9c80fcbba574884e63b580474e1ee150_21 -->
    <!-- Part hex_socket_head_cap_screw_m3x0_50_x_10__9c80fcbba574884e63b580474e1ee150_22 -->
    <!-- Part xt_30_2x2_f_4 -->
    <visual>
      <origin xyz="-0.105595 -0.0298375 0.0145" rpy="1.02188 1.5708 0"/>
      <geometry>
        <mesh filename="package://assets/xt_30_2x2_f.stl"/>
      </geometry>
      <material name="xt_30_2x2_f_4_material">
        <color rgba="0.917647 0.917647 0.917647 1"/>
      </material>
    </visual>
    <collision>
      <origin xyz="-0.105595 -0.0298375 0.0145" rpy="1.02188 1.5708 0"/>
      <geometry>
        <mesh filename="package://assets/xt_30_2x2_f.stl"/>
      </geometry>
    </collision>
    <!-- Part hex_socket_head_cap_screw_m3x0_50_x_10__9c80fcbba574884e63b580474e1ee150_23 -->
    <!-- Part hex_socket_head_cap_screw_m3x0_50_x_20__7252065e4445f5ec71347b53fcae11e4_8 -->
    <!-- Part actuation_ankle_2 -->
    <visual>
      <origin xyz="-0.105319 -0.208585 0.019" rpy="-1.5708 7.7973e-16 -0.0968529"/>
      <geometry>
        <mesh filename="package://assets/actuation_ankle.stl"/>
      </geometry>
      <material name="actuation_ankle_2_material">
        <color rgba="0.917647 0.917647 0.917647 1"/>
      </material>
    </visual>
    <collision>
      <origin xyz="-0.105319 -0.208585 0.019" rpy="-1.5708 7.7973e-16 -0.0968529"/>
      <geometry>
        <mesh filename="package://assets/actuation_ankle.stl"/>
      </geometry>
    </collision>
    <!-- Part hex_socket_head_cap_screw_m3x0_50_x_10__9c80fcbba574884e63b580474e1ee150_24 -->
    <!-- Part hex_socket_head_cap_screw_m4x0_70_x_12__c825518ee8edf1afced0eee1b019b750_10 -->
    <!-- Part hex_socket_head_cap_screw_m3x0_50_x_20__7252065e4445f5ec71347b53fcae11e4_9 -->
    <!-- Part hex_socket_head_cap_screw_m3x0_50_x_20__7252065e4445f5ec71347b53fcae11e4_10 -->
    <!-- Part 27628_01_050_catpart_2 -->
    <visual>
      <origin xyz="-0.0406619 -0.060142 -0.023" rpy="-1.5708 6.07009e-16 0.858705"/>
      <geometry>
        <mesh filename="package://assets/27628_01_050_catpart.stl"/>
      </geometry>
      <material name="27628_01_050_catpart_2_material">
        <color rgba="0.690196 0.690196 0.690196 1"/>
      </material>
    </visual>
    <collision>
      <origin xyz="-0.0406619 -0.060142 -0.023" rpy="-1.5708 6.07009e-16 0.858705"/>
      <geometry>
        <mesh filename="package://assets/27628_01_050_catpart.stl"/>
      </geometry>
    </collision>
    <!-- Part hex_socket_head_cap_screw_m3x0_50_x_10__9c80fcbba574884e63b580474e1ee150_25 -->
    <!-- Part hex_socket_head_cap_screw_m3x0_50_x_20__7252065e4445f5ec71347b53fcae11e4_11 -->
    <!-- Part hex_socket_head_cap_screw_m3x0_50_x_20__7252065e4445f5ec71347b53fcae11e4_12 -->
    <!-- Part hex_socket_head_cap_screw_m3x0_50_x_10__9c80fcbba574884e63b580474e1ee150_26 -->
    <!-- Part hex_socket_head_cap_screw_m3x0_50_x_10__9c80fcbba574884e63b580474e1ee150_27 -->
    <!-- Part 1_1_31_eb463_510_fl46blw10_48v_5n_m_de_2__fl46blw10_48v_5n_m_de -->
    <visual>
      <origin xyz="-0.0904274 -0.0553071 -0.0195" rpy="-3.14159 9.1342e-16 -1.41458"/>
      <geometry>
        <mesh filename="package://assets/1_1_31_eb463_510_fl46blw10_48v_5n_m_de_2__fl46blw10_48v_5n_m_de.stl"/>
      </geometry>
      <material name="1_1_31_eb463_510_fl46blw10_48v_5n_m_de_2__fl46blw10_48v_5n_m_de_material">
        <color rgba="1 1 1 1"/>
      </material>
    </visual>
    <collision>
      <origin xyz="-0.0904274 -0.0553071 -0.0195" rpy="-3.14159 9.1342e-16 -1.41458"/>
      <geometry>
        <mesh filename="package://assets/1_1_31_eb463_510_fl46blw10_48v_5n_m_de_2__fl46blw10_48v_5n_m_de.stl"/>
      </geometry>
    </collision>
    <!-- Part 1_1_02_eb461_502_fl46blw10_48v_5n_m_de_2__fl46blw10_48v_5n_m_de -->
    <visual>
      <origin xyz="-0.0904274 -0.0553071 -0.0095" rpy="-3.14159 9.1342e-16 -1.41458"/>
      <geometry>
        <mesh filename="package://assets/1_1_02_eb461_502_fl46blw10_48v_5n_m_de_2__fl46blw10_48v_5n_m_de.stl"/>
      </geometry>
      <material name="1_1_02_eb461_502_fl46blw10_48v_5n_m_de_2__fl46blw10_48v_5n_m_de_material">
        <color rgba="1 1 1 1"/>
      </material>
    </visual>
    <collision>
      <origin xyz="-0.0904274 -0.0553071 -0.0095" rpy="-3.14159 9.1342e-16 -1.41458"/>
      <geometry>
        <mesh filename="package://assets/1_1_02_eb461_502_fl46blw10_48v_5n_m_de_2__fl46blw10_48v_5n_m_de.stl"/>
      </geometry>
    </collision>
    <!-- Part 1_1_06_eb463_509_fl46blw10_48v_5n_m_de_2__fl46blw10_48v_5n_m_de -->
    <visual>
      <origin xyz="-0.0904274 -0.0553071 0.022" rpy="3.14159 -8.26613e-14 -0.236479"/>
      <geometry>
        <mesh filename="package://assets/1_1_06_eb463_509_fl46blw10_48v_5n_m_de_2__fl46blw10_48v_5n_m_de.stl"/>
      </geometry>
      <material name="1_1_06_eb463_509_fl46blw10_48v_5n_m_de_2__fl46blw10_48v_5n_m_de_material">
        <color rgba="1 1 1 1"/>
      </material>
    </visual>
    <collision>
      <origin xyz="-0.0904274 -0.0553071 0.022" rpy="3.14159 -8.26613e-14 -0.236479"/>
      <geometry>
        <mesh filename="package://assets/1_1_06_eb463_509_fl46blw10_48v_5n_m_de_2__fl46blw10_48v_5n_m_de.stl"/>
      </geometry>
    </collision>
    <!-- Part 1_1_06_eb463_507_fl46blw10_48v_5n_m_de_2__fl46blw10_48v_5n_m_de -->
    <visual>
      <origin xyz="-0.0904274 -0.0553071 0.0085" rpy="3.14159 -1.2997e-15 -1.02188"/>
      <geometry>
        <mesh filename="package://assets/1_1_06_eb463_507_fl46blw10_48v_5n_m_de_2__fl46blw10_48v_5n_m_de.stl"/>
      </geometry>
      <material name="1_1_06_eb463_507_fl46blw10_48v_5n_m_de_2__fl46blw10_48v_5n_m_de_material">
        <color rgba="1 1 1 1"/>
      </material>
    </visual>
    <collision>
      <origin xyz="-0.0904274 -0.0553071 0.0085" rpy="3.14159 -1.2997e-15 -1.02188"/>
      <geometry>
        <mesh filename="package://assets/1_1_06_eb463_507_fl46blw10_48v_5n_m_de_2__fl46blw10_48v_5n_m_de.stl"/>
      </geometry>
    </collision>
    <!-- Part 1_1_31_eb463_510_fl46blw10_48v_5n_m_de_2__fl46blw10_48v_5n_m_de_2 -->
    <visual>
      <origin xyz="-0.0452137 -0.0276536 0.0195" rpy="-4.17269e-15 3.63827e-14 -0.629178"/>
      <geometry>
        <mesh filename="package://assets/1_1_31_eb463_510_fl46blw10_48v_5n_m_de_2__fl46blw10_48v_5n_m_de.stl"/>
      </geometry>
      <material name="1_1_31_eb463_510_fl46blw10_48v_5n_m_de_2__fl46blw10_48v_5n_m_de_2_material">
        <color rgba="1 1 1 1"/>
      </material>
    </visual>
    <collision>
      <origin xyz="-0.0452137 -0.0276536 0.0195" rpy="-4.17269e-15 3.63827e-14 -0.629178"/>
      <geometry>
        <mesh filename="package://assets/1_1_31_eb463_510_fl46blw10_48v_5n_m_de_2__fl46blw10_48v_5n_m_de.stl"/>
      </geometry>
    </collision>
    <!-- Part 1_1_02_eb461_502_fl46blw10_48v_5n_m_de_2__fl46blw10_48v_5n_m_de_2 -->
    <visual>
      <origin xyz="-0.0452137 -0.0276536 0.0095" rpy="-4.17269e-15 3.63827e-14 -0.629178"/>
      <geometry>
        <mesh filename="package://assets/1_1_02_eb461_502_fl46blw10_48v_5n_m_de_2__fl46blw10_48v_5n_m_de.stl"/>
      </geometry>
      <material name="1_1_02_eb461_502_fl46blw10_48v_5n_m_de_2__fl46blw10_48v_5n_m_de_2_material">
        <color rgba="1 1 1 1"/>
      </material>
    </visual>
    <collision>
      <origin xyz="-0.0452137 -0.0276536 0.0095" rpy="-4.17269e-15 3.63827e-14 -0.629178"/>
      <geometry>
        <mesh filename="package://assets/1_1_02_eb461_502_fl46blw10_48v_5n_m_de_2__fl46blw10_48v_5n_m_de.stl"/>
      </geometry>
    </collision>
    <!-- Part 1_1_06_eb463_509_fl46blw10_48v_5n_m_de_2__fl46blw10_48v_5n_m_de_2 -->
    <visual>
      <origin xyz="-0.0452137 -0.0276536 -0.022" rpy="6.31435e-15 -7.52115e-14 -1.80728"/>
      <geometry>
        <mesh filename="package://assets/1_1_06_eb463_509_fl46blw10_48v_5n_m_de_2__fl46blw10_48v_5n_m_de.stl"/>
      </geometry>
      <material name="1_1_06_eb463_509_fl46blw10_48v_5n_m_de_2__fl46blw10_48v_5n_m_de_2_material">
        <color rgba="1 1 1 1"/>
      </material>
    </visual>
    <collision>
      <origin xyz="-0.0452137 -0.0276536 -0.022" rpy="6.31435e-15 -7.52115e-14 -1.80728"/>
      <geometry>
        <mesh filename="package://assets/1_1_06_eb463_509_fl46blw10_48v_5n_m_de_2__fl46blw10_48v_5n_m_de.stl"/>
      </geometry>
    </collision>
    <!-- Part 1_1_06_eb463_507_fl46blw10_48v_5n_m_de_2__fl46blw10_48v_5n_m_de_2 -->
    <visual>
      <origin xyz="-0.0452137 -0.0276536 -0.0085" rpy="-1.53592e-14 1.66859e-14 -1.02188"/>
      <geometry>
        <mesh filename="package://assets/1_1_06_eb463_507_fl46blw10_48v_5n_m_de_2__fl46blw10_48v_5n_m_de.stl"/>
      </geometry>
      <material name="1_1_06_eb463_507_fl46blw10_48v_5n_m_de_2__fl46blw10_48v_5n_m_de_2_material">
        <color rgba="1 1 1 1"/>
      </material>
    </visual>
    <collision>
      <origin xyz="-0.0452137 -0.0276536 -0.0085" rpy="-1.53592e-14 1.66859e-14 -1.02188"/>
      <geometry>
        <mesh filename="package://assets/1_1_06_eb463_507_fl46blw10_48v_5n_m_de_2__fl46blw10_48v_5n_m_de.stl"/>
      </geometry>
    </collision>
    <!-- Part 0001755652_1_1_30_gr_2202_asm_1_asm_1_1_30_gr_2202_asm_fl46blw10_48v_5n_m_de_2__fl46blw10_48v_5n_m_de -->
    <visual>
      <origin xyz="-0.0823231 -0.0503503 -0.024" rpy="2.45981e-15 1.6397e-15 2.11972"/>
      <geometry>
        <mesh filename="package://assets/0001755652_1_1_30_gr_2202_asm_1_asm_1_1_30_gr_2202_asm_fl46blw10_48v_5n_m_de_2__fl46blw10_48v_5n_m_de.stl"/>
      </geometry>
      <material name="0001755652_1_1_30_gr_2202_asm_1_asm_1_1_30_gr_2202_asm_fl46blw10_48v_5n_m_de_2__fl46blw10_48v_5n_m_de_material">
        <color rgba="1 1 1 1"/>
      </material>
    </visual>
    <collision>
      <origin xyz="-0.0823231 -0.0503503 -0.024" rpy="2.45981e-15 1.6397e-15 2.11972"/>
      <geometry>
        <mesh filename="package://assets/0001755652_1_1_30_gr_2202_asm_1_asm_1_1_30_gr_2202_asm_fl46blw10_48v_5n_m_de_2__fl46blw10_48v_5n_m_de.stl"/>
      </geometry>
    </collision>
    <!-- Part 0001755652_1_1_30_gr_2202_asm_1_asm_1_1_30_gr_2202_asm_fl46blw10_48v_5n_m_de_2__fl46blw10_48v_5n_m_de_2 -->
    <visual>
      <origin xyz="-0.0987723 -0.0507669 -0.024" rpy="2.45981e-15 1.6397e-15 2.11972"/>
      <geometry>
        <mesh filename="package://assets/0001755652_1_1_30_gr_2202_asm_1_asm_1_1_30_gr_2202_asm_fl46blw10_48v_5n_m_de_2__fl46blw10_48v_5n_m_de.stl"/>
      </geometry>
      <material name="0001755652_1_1_30_gr_2202_asm_1_asm_1_1_30_gr_2202_asm_fl46blw10_48v_5n_m_de_2__fl46blw10_48v_5n_m_de_2_material">
        <color rgba="1 1 1 1"/>
      </material>
    </visual>
    <collision>
      <origin xyz="-0.0987723 -0.0507669 -0.024" rpy="2.45981e-15 1.6397e-15 2.11972"/>
      <geometry>
        <mesh filename="package://assets/0001755652_1_1_30_gr_2202_asm_1_asm_1_1_30_gr_2202_asm_fl46blw10_48v_5n_m_de_2__fl46blw10_48v_5n_m_de.stl"/>
      </geometry>
    </collision>
    <!-- Part 0001755652_1_1_30_gr_2202_asm_1_asm_1_1_30_gr_2202_asm_fl46blw10_48v_5n_m_de_2__fl46blw10_48v_5n_m_de_3 -->
    <visual>
      <origin xyz="-0.0533181 -0.0326103 0.024" rpy="-3.14159 4.0102e-14 2.11972"/>
      <geometry>
        <mesh filename="package://assets/0001755652_1_1_30_gr_2202_asm_1_asm_1_1_30_gr_2202_asm_fl46blw10_48v_5n_m_de_2__fl46blw10_48v_5n_m_de.stl"/>
      </geometry>
      <material name="0001755652_1_1_30_gr_2202_asm_1_asm_1_1_30_gr_2202_asm_fl46blw10_48v_5n_m_de_2__fl46blw10_48v_5n_m_de_3_material">
        <color rgba="1 1 1 1"/>
      </material>
    </visual>
    <collision>
      <origin xyz="-0.0533181 -0.0326103 0.024" rpy="-3.14159 4.0102e-14 2.11972"/>
      <geometry>
        <mesh filename="package://assets/0001755652_1_1_30_gr_2202_asm_1_asm_1_1_30_gr_2202_asm_fl46blw10_48v_5n_m_de_2__fl46blw10_48v_5n_m_de.stl"/>
      </geometry>
    </collision>
    <!-- Part 0001755652_1_1_30_gr_2202_asm_1_asm_1_1_30_gr_2202_asm_fl46blw10_48v_5n_m_de_2__fl46blw10_48v_5n_m_de_4 -->
    <visual>
      <origin xyz="-0.0454542 -0.0181566 0.024" rpy="-3.14159 4.0102e-14 2.11972"/>
      <geometry>
        <mesh filename="package://assets/0001755652_1_1_30_gr_2202_asm_1_asm_1_1_30_gr_2202_asm_fl46blw10_48v_5n_m_de_2__fl46blw10_48v_5n_m_de.stl"/>
      </geometry>
      <material name="0001755652_1_1_30_gr_2202_asm_1_asm_1_1_30_gr_2202_asm_fl46blw10_48v_5n_m_de_2__fl46blw10_48v_5n_m_de_4_material">
        <color rgba="1 1 1 1"/>
      </material>
    </visual>
    <collision>
      <origin xyz="-0.0454542 -0.0181566 0.024" rpy="-3.14159 4.0102e-14 2.11972"/>
      <geometry>
        <mesh filename="package://assets/0001755652_1_1_30_gr_2202_asm_1_asm_1_1_30_gr_2202_asm_fl46blw10_48v_5n_m_de_2__fl46blw10_48v_5n_m_de.stl"/>
      </geometry>
    </collision>
    <!-- Part 0001755652_00mini_000_asm_1_asm_1_asm_00mini__20250103_a0001_asm_1_as_asm_1_1_30_gr_2202_asm_1_asm_1_1_30_gr_2202_asm_fl46blw10_48v_5n_m_de_2__fl46blw10_48v_5n_m_de -->
    <visual>
      <origin xyz="-0.0901869 -0.0648041 -0.024" rpy="2.45981e-15 1.6397e-15 2.11972"/>
      <geometry>
        <mesh filename="package://assets/0001755652_00mini_000_asm_1_asm_1_asm_00mini__20250103_a0001_asm_1_as_asm_1_1_30_gr_2202_asm_1_asm_1_1_30_gr_2202_asm_fl46blw10_48v_5n_m_de_2__fl46blw10_48v_5n_m_de.stl"/>
      </geometry>
      <material name="0001755652_00mini_000_asm_1_asm_1_asm_00mini__20250103_a0001_asm_1_as_asm_1_1_30_gr_2202_asm_1_asm_1_1_30_gr_2202_asm_fl46blw10_48v_5n_m_de_2__fl46blw10_48v_5n_m_de_material">
        <color rgba="1 1 1 1"/>
      </material>
    </visual>
    <collision>
      <origin xyz="-0.0901869 -0.0648041 -0.024" rpy="2.45981e-15 1.6397e-15 2.11972"/>
      <geometry>
        <mesh filename="package://assets/0001755652_00mini_000_asm_1_asm_1_asm_00mini__20250103_a0001_asm_1_as_asm_1_1_30_gr_2202_asm_1_asm_1_1_30_gr_2202_asm_fl46blw10_48v_5n_m_de_2__fl46blw10_48v_5n_m_de.stl"/>
      </geometry>
    </collision>
    <!-- Part 6706__300001_1_1_00mini_000_asm_1_asm_1_asm_00mini__20250103_a0001_asm_1_as_asm_1_1_30_gr_2202_asm_1_asm_1_1_30_gr_2202_asm_fl46blw10_48v_5n_m_de_2__fl46blw10_48v_5n_m_de -->
    <visual>
      <origin xyz="-0.0904274 -0.0553071 -0.0205" rpy="2.45981e-15 1.6397e-15 2.11972"/>
      <geometry>
        <mesh filename="package://assets/6706__300001_1_1_00mini_000_asm_1_asm_1_asm_00mini__20250103_a0001_asm_1_as_asm_1_1_30_gr_2202_asm_1_asm_1_1_30_gr_2202_asm_fl46blw10_48v_5n_m_de_2__fl46blw10_48v_5n_m_de.stl"/>
      </geometry>
      <material name="6706__300001_1_1_00mini_000_asm_1_asm_1_asm_00mini__20250103_a0001_asm_1_as_asm_1_1_30_gr_2202_asm_1_asm_1_1_30_gr_2202_asm_fl46blw10_48v_5n_m_de_2__fl46blw10_48v_5n_m_de_material">
        <color rgba="1 1 1 1"/>
      </material>
    </visual>
    <collision>
      <origin xyz="-0.0904274 -0.0553071 -0.0205" rpy="2.45981e-15 1.6397e-15 2.11972"/>
      <geometry>
        <mesh filename="package://assets/6706__300001_1_1_00mini_000_asm_1_asm_1_asm_00mini__20250103_a0001_asm_1_as_asm_1_1_30_gr_2202_asm_1_asm_1_1_30_gr_2202_asm_fl46blw10_48v_5n_m_de_2__fl46blw10_48v_5n_m_de.stl"/>
      </geometry>
    </collision>
    <!-- Part 0001755650_00mini_000_asm_1_asm_1_asm_00mini__20250103_a0001_asm_1_as_asm_1_1_30_gr_2202_asm_1_asm_1_1_30_gr_2202_asm_fl46blw10_48v_5n_m_de_2__fl46blw10_48v_5n_m_de -->
    <visual>
      <origin xyz="-0.0904274 -0.0553071 -0.0209" rpy="2.45981e-15 1.6397e-15 2.11972"/>
      <geometry>
        <mesh filename="package://assets/0001755650_00mini_000_asm_1_asm_1_asm_00mini__20250103_a0001_asm_1_as_asm_1_1_30_gr_2202_asm_1_asm_1_1_30_gr_2202_asm_fl46blw10_48v_5n_m_de_2__fl46blw10_48v_5n_m_de.stl"/>
      </geometry>
      <material name="0001755650_00mini_000_asm_1_asm_1_asm_00mini__20250103_a0001_asm_1_as_asm_1_1_30_gr_2202_asm_1_asm_1_1_30_gr_2202_asm_fl46blw10_48v_5n_m_de_2__fl46blw10_48v_5n_m_de_material">
        <color rgba="1 1 1 1"/>
      </material>
    </visual>
    <collision>
      <origin xyz="-0.0904274 -0.0553071 -0.0209" rpy="2.45981e-15 1.6397e-15 2.11972"/>
      <geometry>
        <mesh filename="package://assets/0001755650_00mini_000_asm_1_asm_1_asm_00mini__20250103_a0001_asm_1_as_asm_1_1_30_gr_2202_asm_1_asm_1_1_30_gr_2202_asm_fl46blw10_48v_5n_m_de_2__fl46blw10_48v_5n_m_de.stl"/>
      </geometry>
    </collision>
    <!-- Part 0001755652_00mini_000_asm_1_asm_1_asm_00mini__20250103_a0001_asm_1_as_asm_1_1_30_gr_2202_asm_1_asm_1_1_30_gr_2202_asm_fl46blw10_48v_5n_m_de_2__fl46blw10_48v_5n_m_de_2 -->
    <visual>
      <origin xyz="-0.0368689 -0.0321937 0.024" rpy="-3.14159 4.0102e-14 2.11972"/>
      <geometry>
        <mesh filename="package://assets/0001755652_00mini_000_asm_1_asm_1_asm_00mini__20250103_a0001_asm_1_as_asm_1_1_30_gr_2202_asm_1_asm_1_1_30_gr_2202_asm_fl46blw10_48v_5n_m_de_2__fl46blw10_48v_5n_m_de.stl"/>
      </geometry>
      <material name="0001755652_00mini_000_asm_1_asm_1_asm_00mini__20250103_a0001_asm_1_as_asm_1_1_30_gr_2202_asm_1_asm_1_1_30_gr_2202_asm_fl46blw10_48v_5n_m_de_2__fl46blw10_48v_5n_m_de_2_material">
        <color rgba="1 1 1 1"/>
      </material>
    </visual>
    <collision>
      <origin xyz="-0.0368689 -0.0321937 0.024" rpy="-3.14159 4.0102e-14 2.11972"/>
      <geometry>
        <mesh filename="package://assets/0001755652_00mini_000_asm_1_asm_1_asm_00mini__20250103_a0001_asm_1_as_asm_1_1_30_gr_2202_asm_1_asm_1_1_30_gr_2202_asm_fl46blw10_48v_5n_m_de_2__fl46blw10_48v_5n_m_de.stl"/>
      </geometry>
    </collision>
    <!-- Part 6706__300001_1_1_00mini_000_asm_1_asm_1_asm_00mini__20250103_a0001_asm_1_as_asm_1_1_30_gr_2202_asm_1_asm_1_1_30_gr_2202_asm_fl46blw10_48v_5n_m_de_2__fl46blw10_48v_5n_m_de_2 -->
    <visual>
      <origin xyz="-0.0452137 -0.0276536 0.0205" rpy="-3.14159 4.0102e-14 2.11972"/>
      <geometry>
        <mesh filename="package://assets/6706__300001_1_1_00mini_000_asm_1_asm_1_asm_00mini__20250103_a0001_asm_1_as_asm_1_1_30_gr_2202_asm_1_asm_1_1_30_gr_2202_asm_fl46blw10_48v_5n_m_de_2__fl46blw10_48v_5n_m_de.stl"/>
      </geometry>
      <material name="6706__300001_1_1_00mini_000_asm_1_asm_1_asm_00mini__20250103_a0001_asm_1_as_asm_1_1_30_gr_2202_asm_1_asm_1_1_30_gr_2202_asm_fl46blw10_48v_5n_m_de_2__fl46blw10_48v_5n_m_de_2_material">
        <color rgba="1 1 1 1"/>
      </material>
    </visual>
    <collision>
      <origin xyz="-0.0452137 -0.0276536 0.0205" rpy="-3.14159 4.0102e-14 2.11972"/>
      <geometry>
        <mesh filename="package://assets/6706__300001_1_1_00mini_000_asm_1_asm_1_asm_00mini__20250103_a0001_asm_1_as_asm_1_1_30_gr_2202_asm_1_asm_1_1_30_gr_2202_asm_fl46blw10_48v_5n_m_de_2__fl46blw10_48v_5n_m_de.stl"/>
      </geometry>
    </collision>
    <!-- Part 0001755650_00mini_000_asm_1_asm_1_asm_00mini__20250103_a0001_asm_1_as_asm_1_1_30_gr_2202_asm_1_asm_1_1_30_gr_2202_asm_fl46blw10_48v_5n_m_de_2__fl46blw10_48v_5n_m_de_2 -->
    <visual>
      <origin xyz="-0.0452137 -0.0276536 0.0209" rpy="-3.14159 4.0102e-14 2.11972"/>
      <geometry>
        <mesh filename="package://assets/0001755650_00mini_000_asm_1_asm_1_asm_00mini__20250103_a0001_asm_1_as_asm_1_1_30_gr_2202_asm_1_asm_1_1_30_gr_2202_asm_fl46blw10_48v_5n_m_de_2__fl46blw10_48v_5n_m_de.stl"/>
      </geometry>
      <material name="0001755650_00mini_000_asm_1_asm_1_asm_00mini__20250103_a0001_asm_1_as_asm_1_1_30_gr_2202_asm_1_asm_1_1_30_gr_2202_asm_fl46blw10_48v_5n_m_de_2__fl46blw10_48v_5n_m_de_2_material">
        <color rgba="1 1 1 1"/>
      </material>
    </visual>
    <collision>
      <origin xyz="-0.0452137 -0.0276536 0.0209" rpy="-3.14159 4.0102e-14 2.11972"/>
      <geometry>
        <mesh filename="package://assets/0001755650_00mini_000_asm_1_asm_1_asm_00mini__20250103_a0001_asm_1_as_asm_1_1_30_gr_2202_asm_1_asm_1_1_30_gr_2202_asm_fl46blw10_48v_5n_m_de_2__fl46blw10_48v_5n_m_de.stl"/>
      </geometry>
    </collision>
  </link>
  <!-- Link ankle_subassembly -->
  <link name="ankle_subassembly">
    <inertial>
      <origin xyz="-1.62086e-08 -0.000727483 0.02" rpy="0 0 0"/>
      <mass value="0.0168168"/>
      <inertia ixx="5.19458e-06" ixy="2.61119e-12" ixz="4.35145e-12" iyy="4.86353e-06" iyz="-7.24871e-13" izz="8.35665e-07"/>
    </inertial>
    <!-- Part hex_socket_head_cap_screw_m2_5x0_45_x_6__ec244025d76f8b83b2775022a2cb3232_7 -->
    <!-- Part 07534_05x40_catpart_2 -->
    <visual>
      <origin xyz="1.66533e-15 0.0249999 0.02" rpy="-3.14159 3.65491e-14 -1.5708"/>
      <geometry>
        <mesh filename="package://assets/07534_05x40_catpart.stl"/>
      </geometry>
      <material name="07534_05x40_catpart_2_material">
        <color rgba="0.690196 0.690196 0.690196 1"/>
      </material>
    </visual>
    <collision>
      <origin xyz="1.66533e-15 0.0249999 0.02" rpy="-3.14159 3.65491e-14 -1.5708"/>
      <geometry>
        <mesh filename="package://assets/07534_05x40_catpart.stl"/>
      </geometry>
    </collision>
    <!-- Part ujoint -->
    <visual>
      <origin xyz="-7.77156e-16 2.46331e-16 0.02" rpy="3.14159 1.5708 0"/>
      <geometry>
        <mesh filename="package://assets/ujoint.stl"/>
      </geometry>
      <material name="ujoint_material">
        <color rgba="1 0 0 1"/>
      </material>
    </visual>
    <collision>
      <origin xyz="-7.77156e-16 2.46331e-16 0.02" rpy="3.14159 1.5708 0"/>
      <geometry>
        <mesh filename="package://assets/ujoint.stl"/>
      </geometry>
    </collision>
    <!-- Part hex_socket_head_cap_screw_m2_5x0_45_x_6__ec244025d76f8b83b2775022a2cb3232_8 -->
    <!-- Part spacer_ujoint -->
    <visual>
      <origin xyz="-1.22125e-15 -1.249e-16 0.02" rpy="2.9536e-14 -1.54943 -3.1118e-14"/>
      <geometry>
        <mesh filename="package://assets/spacer_ujoint.stl"/>
      </geometry>
      <material name="spacer_ujoint_material">
        <color rgba="0.917647 0.917647 0.917647 1"/>
      </material>
    </visual>
    <collision>
      <origin xyz="-1.22125e-15 -1.249e-16 0.02" rpy="2.9536e-14 -1.54943 -3.1118e-14"/>
      <geometry>
        <mesh filename="package://assets/spacer_ujoint.stl"/>
      </geometry>
    </collision>
    <!-- Part hex_thin_nut_grade_a___b_m4x0_7__a8228d9ce5dcc05f24da0a2f74d882f3_4 -->
    <visual>
      <origin xyz="3.03091e-14 -0.02204 0.02" rpy="-1.5708 -1.54943 1.03955e-12"/>
      <geometry>
        <mesh filename="package://assets/hex_thin_nut_grade_a___b_m4x0_7__a8228d9ce5dcc05f24da0a2f74d882f3.stl"/>
      </geometry>
      <material name="hex_thin_nut_grade_a___b_m4x0_7__a8228d9ce5dcc05f24da0a2f74d882f3_4_material">
        <color rgba="0.603922 0.647059 0.686275 1"/>
      </material>
    </visual>
    <collision>
      <origin xyz="3.03091e-14 -0.02204 0.02" rpy="-1.5708 -1.54943 1.03955e-12"/>
      <geometry>
        <mesh filename="package://assets/hex_thin_nut_grade_a___b_m4x0_7__a8228d9ce5dcc05f24da0a2f74d882f3.stl"/>
      </geometry>
    </collision>
    <!-- Part part_3_2 -->
    <visual>
      <origin xyz="2.10942e-15 -4.01762e-15 0.0195" rpy="3.14159 1.5708 0"/>
      <geometry>
        <mesh filename="package://assets/part_3.stl"/>
      </geometry>
      <material name="part_3_2_material">
        <color rgba="1 0 0 1"/>
      </material>
    </visual>
    <collision>
      <origin xyz="2.10942e-15 -4.01762e-15 0.0195" rpy="3.14159 1.5708 0"/>
      <geometry>
        <mesh filename="package://assets/part_3.stl"/>
      </geometry>
    </collision>
    <!-- Part bearing_5_16_5_3 -->
    <visual>
      <origin xyz="-5.44009e-15 -0.01594 0.02" rpy="-1.87698e-12 -1.54943 2.12906e-12"/>
      <geometry>
        <mesh filename="package://assets/bearing_5_16_5.stl"/>
      </geometry>
      <material name="bearing_5_16_5_3_material">
        <color rgba="0.917647 0.917647 0.917647 1"/>
      </material>
    </visual>
    <collision>
      <origin xyz="-5.44009e-15 -0.01594 0.02" rpy="-1.87698e-12 -1.54943 2.12906e-12"/>
      <geometry>
        <mesh filename="package://assets/bearing_5_16_5.stl"/>
      </geometry>
    </collision>
    <!-- Part bearing_15_21_4_6 -->
    <visual>
      <origin xyz="0 0 0" rpy="1.5708 -8.62817e-32 2.56467e-30"/>
      <geometry>
        <mesh filename="package://assets/bearing_15_21_4.stl"/>
      </geometry>
      <material name="bearing_15_21_4_6_material">
        <color rgba="0.647059 0.647059 0.647059 1"/>
      </material>
    </visual>
    <collision>
      <origin xyz="0 0 0" rpy="1.5708 -8.62817e-32 2.56467e-30"/>
      <geometry>
        <mesh filename="package://assets/bearing_15_21_4.stl"/>
      </geometry>
    </collision>
    <!-- Part hex_socket_head_cap_screw_m2_5x0_45_x_6__ec244025d76f8b83b2775022a2cb3232_9 -->
    <!-- Part hex_socket_head_cap_screw_m2_5x0_45_x_6__ec244025d76f8b83b2775022a2cb3232_10 -->
    <!-- Part part_3_3 -->
    <visual>
      <origin xyz="2.55351e-15 -6.38378e-16 0.0205" rpy="-3.14159 -1.5708 0"/>
      <geometry>
        <mesh filename="package://assets/part_3.stl"/>
      </geometry>
      <material name="part_3_3_material">
        <color rgba="1 0 0 1"/>
      </material>
    </visual>
    <collision>
      <origin xyz="2.55351e-15 -6.38378e-16 0.0205" rpy="-3.14159 -1.5708 0"/>
      <geometry>
        <mesh filename="package://assets/part_3.stl"/>
      </geometry>
    </collision>
    <!-- Part hex_socket_head_cap_screw_m2_5x0_45_x_6__ec244025d76f8b83b2775022a2cb3232_11 -->
    <!-- Part hex_socket_head_cap_screw_m2_5x0_45_x_6__ec244025d76f8b83b2775022a2cb3232_12 -->
    <!-- Part bearing_5_16_5_4 -->
    <visual>
      <origin xyz="-6.99441e-15 0.0209456 0.02" rpy="-3.14159 0.0146585 3.14159"/>
      <geometry>
        <mesh filename="package://assets/bearing_5_16_5.stl"/>
      </geometry>
      <material name="bearing_5_16_5_4_material">
        <color rgba="0.917647 0.917647 0.917647 1"/>
      </material>
    </visual>
    <collision>
      <origin xyz="-6.99441e-15 0.0209456 0.02" rpy="-3.14159 0.0146585 3.14159"/>
      <geometry>
        <mesh filename="package://assets/bearing_5_16_5.stl"/>
      </geometry>
    </collision>
    <!-- Part spacer_ujoint_2 -->
    <visual>
      <origin xyz="-6.66134e-15 5.64895e-06 0.02" rpy="3.14159 1.55614 -3.23576e-12"/>
      <geometry>
        <mesh filename="package://assets/spacer_ujoint.stl"/>
      </geometry>
      <material name="spacer_ujoint_2_material">
        <color rgba="0.917647 0.917647 0.917647 1"/>
      </material>
    </visual>
    <collision>
      <origin xyz="-6.66134e-15 5.64895e-06 0.02" rpy="3.14159 1.55614 -3.23576e-12"/>
      <geometry>
        <mesh filename="package://assets/spacer_ujoint.stl"/>
      </geometry>
    </collision>
    <!-- Part bearing_15_21_4_7 -->
    <visual>
      <origin xyz="7.77156e-16 1.87697e-15 0.04" rpy="-1.5708 1.67921e-15 3.14159"/>
      <geometry>
        <mesh filename="package://assets/bearing_15_21_4.stl"/>
      </geometry>
      <material name="bearing_15_21_4_7_material">
        <color rgba="0.647059 0.647059 0.647059 1"/>
      </material>
    </visual>
    <collision>
      <origin xyz="7.77156e-16 1.87697e-15 0.04" rpy="-1.5708 1.67921e-15 3.14159"/>
      <geometry>
        <mesh filename="package://assets/bearing_15_21_4.stl"/>
      </geometry>
    </collision>
  </link>
  <!-- Link foot_subassembly -->
  <link name="foot_subassembly">
    <inertial>
      <origin xyz="8.52312e-09 -0.0138418 -0.052232" rpy="0 0 0"/>
      <mass value="0.122498"/>
      <inertia ixx="0.000163413" ixy="-1.15065e-10" ixz="-2.96383e-11" iyy="0.000162266" iyz="1.11374e-05" izz="7.07692e-05"/>
    </inertial>
    <!-- Part hex_socket_head_cap_screw_m2_5x0_45_x_6__ec244025d76f8b83b2775022a2cb3232_13 -->
    <!-- Part 27628_01_050_catpart_3 -->
    <visual>
      <origin xyz="0.021 3.53792e-08 -0.0660002" rpy="-3.14159 -4.49847e-16 1.5708"/>
      <geometry>
        <mesh filename="package://assets/27628_01_050_catpart.stl"/>
      </geometry>
      <material name="27628_01_050_catpart_3_material">
        <color rgba="0.690196 0.690196 0.690196 1"/>
      </material>
    </visual>
    <collision>
      <origin xyz="0.021 3.53792e-08 -0.0660002" rpy="-3.14159 -4.49847e-16 1.5708"/>
      <geometry>
        <mesh filename="package://assets/27628_01_050_catpart.stl"/>
      </geometry>
    </collision>
    <!-- Part hex_socket_head_cap_screw_m2_5x0_45_x_6__ec244025d76f8b83b2775022a2cb3232_14 -->
    <!-- Part 07534_05x20_catpart_3 -->
    <visual>
      <origin xyz="0.036 1.11022e-16 -0.066" rpy="-3.14159 -9.24446e-32 3.14159"/>
      <geometry>
        <mesh filename="package://assets/07534_05x20_catpart.stl"/>
      </geometry>
      <material name="07534_05x20_catpart_3_material">
        <color rgba="0.690196 0.690196 0.690196 1"/>
      </material>
    </visual>
    <collision>
      <origin xyz="0.036 1.11022e-16 -0.066" rpy="-3.14159 -9.24446e-32 3.14159"/>
      <geometry>
        <mesh filename="package://assets/07534_05x20_catpart.stl"/>
      </geometry>
    </collision>
    <!-- Part 27628_01_050_catpart_4 -->
    <visual>
      <origin xyz="-0.021 -1.89504e-08 -0.066" rpy="3.14159 -4.7147e-16 1.5708"/>
      <geometry>
        <mesh filename="package://assets/27628_01_050_catpart.stl"/>
      </geometry>
      <material name="27628_01_050_catpart_4_material">
        <color rgba="0.690196 0.690196 0.690196 1"/>
      </material>
    </visual>
    <collision>
      <origin xyz="-0.021 -1.89504e-08 -0.066" rpy="3.14159 -4.7147e-16 1.5708"/>
      <geometry>
        <mesh filename="package://assets/27628_01_050_catpart.stl"/>
      </geometry>
    </collision>
    <!-- Part 07534_05x20_catpart_4 -->
    <visual>
      <origin xyz="-0.036 2.22045e-16 -0.066" rpy="-7.88861e-31 1.2326e-32 -5.0201e-15"/>
      <geometry>
        <mesh filename="package://assets/07534_05x20_catpart.stl"/>
      </geometry>
      <material name="07534_05x20_catpart_4_material">
        <color rgba="0.690196 0.690196 0.690196 1"/>
      </material>
    </visual>
    <collision>
      <origin xyz="-0.036 2.22045e-16 -0.066" rpy="-7.88861e-31 1.2326e-32 -5.0201e-15"/>
      <geometry>
        <mesh filename="package://assets/07534_05x20_catpart.stl"/>
      </geometry>
    </collision>
    <!-- Part hat_small -->
    <visual>
      <origin xyz="4.71845e-16 -0.035 -0.0385" rpy="-1.5708 -1.5708 0"/>
      <geometry>
        <mesh filename="package://assets/hat_small.stl"/>
      </geometry>
      <material name="hat_small_material">
        <color rgba="1 0 0 1"/>
      </material>
    </visual>
    <collision>
      <origin xyz="4.71845e-16 -0.035 -0.0385" rpy="-1.5708 -1.5708 0"/>
      <geometry>
        <mesh filename="package://assets/hat_small.stl"/>
      </geometry>
    </collision>
    <!-- Part hex_socket_head_cap_screw_m2_5x0_45_x_6__ec244025d76f8b83b2775022a2cb3232_15 -->
    <!-- Part foot -->
    <visual>
      <origin xyz="1.11022e-16 -0.035 -0.0385" rpy="-1.5708 -1.5708 0"/>
      <geometry>
        <mesh filename="package://assets/foot.stl"/>
      </geometry>
      <material name="foot_material">
        <color rgba="0.301961 0.301961 0.301961 1"/>
      </material>
    </visual>
    <collision>
      <origin xyz="1.11022e-16 -0.035 -0.0385" rpy="-1.5708 -1.5708 0"/>
      <geometry>
        <mesh filename="package://assets/foot.stl"/>
      </geometry>
    </collision>
  </link>
  <!-- Frame foot_right (dummy link + fixed joint) -->
  <link name="foot_right">
    <origin xyz="0 0 0" rpy="0 -0 0"/>
    <inertial>
      <origin xyz="0 0 0" rpy="0 0 0"/>
      <mass value="1e-9"/>
      <inertia ixx="0" ixy="0" ixz="0" iyy="0" iyz="0" izz="0"/>
    </inertial>
  </link>
  <joint name="foot_right_frame" type="fixed">
    <origin xyz="-6.35351e-08 -0.035 -0.0480606" rpy="-1.5708 1.5708 0"/>
    <parent link="foot_subassembly"/>
    <child link="foot_right"/>
    <axis xyz="0 0 0"/>
  </joint>
  <!-- Joint from ankle_subassembly to foot_subassembly -->
  <joint name="anklex_right" type="revolute">
    <origin xyz="-5.55112e-15 -0.01594 0.02" rpy="1.5708 1.5708 0"/>
    <parent link="ankle_subassembly"/>
    <child link="foot_subassembly"/>
    <axis xyz="0 0 1"/>
    <limit effort="10" velocity="10" lower="-3.141592653589793" upper="3.141592653589793"/>
  </joint>
  <!-- Joint from shin_subassembly to ankle_subassembly -->
  <joint name="ankley_right" type="revolute">
    <origin xyz="-0.221803 -0.135659 0.02" rpy="-3.14159 -6.73194e-15 1.16452"/>
    <parent link="shin_subassembly"/>
    <child link="ankle_subassembly"/>
    <axis xyz="0 0 1"/>
    <limit effort="10" velocity="10" lower="-3.141592653589793" upper="3.141592653589793"/>
  </joint>
  <!-- Joint from tigh_subassembly to shin_subassembly -->
  <joint name="knee_right" type="revolute">
    <origin xyz="0.17 0.294449 -0.0305" rpy="3.14159 -1.53593e-13 -0.544439"/>
    <parent link="tigh_subassembly"/>
    <child link="shin_subassembly"/>
    <axis xyz="0 0 1"/>
    <limit effort="10" velocity="10" lower="-3.141592653589793" upper="3.141592653589793"/>
  </joint>
  <!-- Joint from hipy_subassembly to tigh_subassembly -->
  <joint name="hipy_right" type="revolute">
    <origin xyz="0.012638 -0.0276823 -0.112055" rpy="-1.64549 0.446566 -2.74613"/>
    <parent link="hipy_subassembly"/>
    <child link="tigh_subassembly"/>
    <axis xyz="0 0 1"/>
    <limit effort="10" velocity="10" lower="-3.141592653589793" upper="3.141592653589793"/>
  </joint>
  <!-- Joint from hipx_subassembly to hipy_subassembly -->
  <joint name="hipx_right" type="revolute">
    <origin xyz="-0.01897 -0.0289 -0.09689" rpy="-0.0593605 0.3145 -2.3413"/>
    <parent link="hipx_subassembly"/>
    <child link="hipy_subassembly"/>
    <axis xyz="0 0 1"/>
    <limit effort="10" velocity="10" lower="-3.141592653589793" upper="3.141592653589793"/>
  </joint>
  <!-- Joint from torso_subassembly to hipx_subassembly -->
  <joint name="hipz_right" type="revolute">
    <origin xyz="-0.000819037 -0.133159 0.04164" rpy="0.0475276 0.133035 -1.20169"/>
    <parent link="torso_subassembly"/>
    <child link="hipx_subassembly"/>
    <axis xyz="0 0 1"/>
    <limit effort="10" velocity="10" lower="-3.141592653589793" upper="3.141592653589793"/>
  </joint>
  <!-- Link hipx_subassemby_sym -->
  <link name="hipx_subassemby_sym">
    <inertial>
      <origin xyz="-0.0179432 0.0274245 -0.0837272" rpy="0 0 0"/>
      <mass value="0.794016"/>
      <inertia ixx="0.00093784" ixy="4.40289e-05" ixz="-0.000110464" iyy="0.000903443" iyz="0.000168604" izz="0.00100402"/>
    </inertial>
    <!-- Part rs02_2 -->
    <!-- Part hex_socket_head_cap_screw_m4x0_70_x_40__14321d45d56569246e7feb4574a6bae6_15 -->
    <!-- Part robstride02_2 -->
    <visual>
      <origin xyz="-0.575896 0.057308 -0.20175" rpy="-1.84488 -0.167023 0.0467087"/>
      <geometry>
        <mesh filename="package://assets/robstride02.stl"/>
      </geometry>
      <material name="robstride02_2_material">
        <color rgba="0.301961 0.301961 0.301961 1"/>
      </material>
    </visual>
    <collision>
      <origin xyz="-0.575896 0.057308 -0.20175" rpy="-1.84488 -0.167023 0.0467087"/>
      <geometry>
        <mesh filename="package://assets/robstride02.stl"/>
      </geometry>
    </collision>
    <!-- Part hex_socket_head_cap_screw_m3x0_50_x_8__d566997e1880d7fd3377c5b0ee12206c_28 -->
    <!-- Part hex_socket_head_cap_screw_m3x0_50_x_8__d566997e1880d7fd3377c5b0ee12206c_29 -->
    <!-- Part hex_socket_head_cap_screw_m3x0_50_x_8__d566997e1880d7fd3377c5b0ee12206c_30 -->
    <!-- Part hex_socket_head_cap_screw_m3x0_50_x_8__d566997e1880d7fd3377c5b0ee12206c_31 -->
    <!-- Part hipz22_sym -->
    <visual>
      <origin xyz="5.55112e-17 0 0.1" rpy="-2.46574e-19 2.99834e-18 4.03102e-19"/>
      <geometry>
        <mesh filename="package://assets/hipz22_sym.stl"/>
      </geometry>
      <material name="hipz22_sym_material">
        <color rgba="1 0 0 1"/>
      </material>
    </visual>
    <collision>
      <origin xyz="5.55112e-17 0 0.1" rpy="-2.46574e-19 2.99834e-18 4.03102e-19"/>
      <geometry>
        <mesh filename="package://assets/hipz22_sym.stl"/>
      </geometry>
    </collision>
    <!-- Part hex_socket_head_cap_screw_m4x0_70_x_40__14321d45d56569246e7feb4574a6bae6_16 -->
    <!-- Part hipz12_sym -->
    <visual>
      <origin xyz="2.08167e-16 -2.08167e-17 0.1" rpy="6.6578e-16 5.79569e-17 -9.31373e-17"/>
      <geometry>
        <mesh filename="package://assets/hipz12_sym.stl"/>
      </geometry>
      <material name="hipz12_sym_material">
        <color rgba="1 0 0 1"/>
      </material>
    </visual>
    <collision>
      <origin xyz="2.08167e-16 -2.08167e-17 0.1" rpy="6.6578e-16 5.79569e-17 -9.31373e-17"/>
      <geometry>
        <mesh filename="package://assets/hipz12_sym.stl"/>
      </geometry>
    </collision>
    <!-- Part xt_30_2x2_f_5 -->
    <visual>
      <origin xyz="-0.0280156 0.0769561 -0.0718124" rpy="-0.490825 -1.25093 2.15149"/>
      <geometry>
        <mesh filename="package://assets/xt_30_2x2_f.stl"/>
      </geometry>
      <material name="xt_30_2x2_f_5_material">
        <color rgba="0.917647 0.917647 0.917647 1"/>
      </material>
    </visual>
    <collision>
      <origin xyz="-0.0280156 0.0769561 -0.0718124" rpy="-0.490825 -1.25093 2.15149"/>
      <geometry>
        <mesh filename="package://assets/xt_30_2x2_f.stl"/>
      </geometry>
    </collision>
    <!-- Part hex_socket_head_cap_screw_m3x0_50_x_8__d566997e1880d7fd3377c5b0ee12206c_32 -->
    <!-- Part hex_socket_head_cap_screw_m3x0_50_x_8__d566997e1880d7fd3377c5b0ee12206c_33 -->
    <!-- Part hex_socket_head_cap_screw_m3x0_50_x_8__d566997e1880d7fd3377c5b0ee12206c_34 -->
    <!-- Part hex_socket_head_cap_screw_m4x0_70_x_40__14321d45d56569246e7feb4574a6bae6_17 -->
    <!-- Part hex_socket_head_cap_screw_m3x0_50_x_8__d566997e1880d7fd3377c5b0ee12206c_35 -->
    <!-- Part hex_socket_head_cap_screw_m4x0_70_x_40__14321d45d56569246e7feb4574a6bae6_18 -->
    <!-- Part hex_socket_head_cap_screw_m4x0_70_x_40__14321d45d56569246e7feb4574a6bae6_19 -->
    <!-- Part hex_socket_head_cap_screw_m4x0_70_x_40__14321d45d56569246e7feb4574a6bae6_20 -->
    <!-- Part hex_socket_head_cap_screw_m3x0_50_x_8__d566997e1880d7fd3377c5b0ee12206c_36 -->
    <!-- Part hex_socket_head_cap_screw_m4x0_70_x_40__14321d45d56569246e7feb4574a6bae6_21 -->
    <!-- Part hex_socket_head_cap_screw_m3x0_50_x_8__d566997e1880d7fd3377c5b0ee12206c_37 -->
    <!-- Part hex_socket_head_cap_screw_m3x0_50_x_8__d566997e1880d7fd3377c5b0ee12206c_38 -->
    <!-- Part hex_socket_head_cap_screw_m4x0_70_x_40__14321d45d56569246e7feb4574a6bae6_22 -->
    <!-- Part bearing_35_72_17_4 -->
    <visual>
      <origin xyz="-0.01759 0.0267968 -0.104484" rpy="1.29671 -0.167023 0.0467087"/>
      <geometry>
        <mesh filename="package://assets/bearing_35_72_17.stl"/>
      </geometry>
      <material name="bearing_35_72_17_4_material">
        <color rgba="0.768627 0.886275 0.952941 1"/>
      </material>
    </visual>
    <collision>
      <origin xyz="-0.01759 0.0267968 -0.104484" rpy="1.29671 -0.167023 0.0467087"/>
      <geometry>
        <mesh filename="package://assets/bearing_35_72_17.stl"/>
      </geometry>
    </collision>
    <!-- Part hex_socket_head_cap_screw_m3x0_50_x_8__d566997e1880d7fd3377c5b0ee12206c_39 -->
    <!-- Part hex_socket_head_cap_screw_m4x0_70_x_40__14321d45d56569246e7feb4574a6bae6_23 -->
    <!-- Part hex_socket_head_cap_screw_m3x0_50_x_8__d566997e1880d7fd3377c5b0ee12206c_40 -->
    <!-- Part hex_socket_head_cap_screw_m3x0_50_x_8__d566997e1880d7fd3377c5b0ee12206c_41 -->
    <!-- Part hex_socket_head_cap_screw_m4x0_70_x_40__14321d45d56569246e7feb4574a6bae6_24 -->
    <!-- Part hex_socket_head_cap_screw_m3x0_50_x_8__d566997e1880d7fd3377c5b0ee12206c_42 -->
  </link>
  <!-- Link hipy_subassembly_sym -->
  <link name="hipy_subassembly_sym">
    <inertial>
      <origin xyz="0.0047654 0.00266393 -0.0607296" rpy="0 0 0"/>
      <mass value="0.241619"/>
      <inertia ixx="0.000504046" ixy="-2.43365e-05" ixz="7.8493e-06" iyy="0.000455768" iyz="3.61482e-05" izz="0.000428972"/>
    </inertial>
    <!-- Part hex_socket_head_cap_screw_m4x0_70_x_12__c825518ee8edf1afced0eee1b019b750_11 -->
    <!-- Part hex_socket_head_cap_screw_m4x0_70_x_12__c825518ee8edf1afced0eee1b019b750_12 -->
    <!-- Part hex_socket_head_cap_screw_m4x0_70_x_12__c825518ee8edf1afced0eee1b019b750_13 -->
    <!-- Part hex_socket_head_cap_screw_m4x0_70_x_12__c825518ee8edf1afced0eee1b019b750_14 -->
    <!-- Part hex_socket_head_cap_screw_m4x0_70_x_20__832e47d784177ea3f1dabbaab534416e_23 -->
    <!-- Part hex_socket_head_cap_screw_m4x0_70_x_20__832e47d784177ea3f1dabbaab534416e_24 -->
    <!-- Part hipxy_sym -->
    <visual>
      <origin xyz="-2.34188e-17 -2.77556e-17 6.93889e-18" rpy="3.14159 8.71185e-18 2.62247e-17"/>
      <geometry>
        <mesh filename="package://assets/hipxy_sym.stl"/>
      </geometry>
      <material name="hipxy_sym_material">
        <color rgba="1 0 0 1"/>
      </material>
    </visual>
    <collision>
      <origin xyz="-2.34188e-17 -2.77556e-17 6.93889e-18" rpy="3.14159 8.71185e-18 2.62247e-17"/>
      <geometry>
        <mesh filename="package://assets/hipxy_sym.stl"/>
      </geometry>
    </collision>
    <!-- Part hex_socket_head_cap_screw_m4x0_70_x_12__c825518ee8edf1afced0eee1b019b750_15 -->
    <!-- Part hex_socket_head_cap_screw_m4x0_70_x_20__832e47d784177ea3f1dabbaab534416e_25 -->
    <!-- Part hex_socket_head_cap_screw_m4x0_70_x_12__c825518ee8edf1afced0eee1b019b750_16 -->
    <!-- Part hex_socket_head_cap_screw_m4x0_70_x_20__832e47d784177ea3f1dabbaab534416e_26 -->
    <!-- Part hex_socket_head_cap_screw_m4x0_70_x_20__832e47d784177ea3f1dabbaab534416e_27 -->
    <!-- Part hex_socket_head_cap_screw_m4x0_70_x_20__832e47d784177ea3f1dabbaab534416e_28 -->
  </link>
  <!-- Link tigh_subassembly_sym -->
  <link name="tigh_subassembly_sym">
    <inertial>
      <origin xyz="-0.0431321 -0.0830741 -0.0353867" rpy="0 0 0"/>
      <mass value="2.5804"/>
      <inertia ixx="0.0180602" ixy="-0.00802639" ixz="-0.00087206" iyy="0.00826187" iyz="-0.00158484" izz="0.0238429"/>
    </inertial>
    <!-- Part knee_rod22_sym -->
    <visual>
      <origin xyz="-0.058 -0.280519 0.0295" rpy="-1.5708 7.85327e-15 -4.65629e-15"/>
      <geometry>
        <mesh filename="package://assets/knee_rod22_sym.stl"/>
      </geometry>
      <material name="knee_rod22_sym_material">
        <color rgba="0.917647 0.917647 0.917647 1"/>
      </material>
    </visual>
    <collision>
      <origin xyz="-0.058 -0.280519 0.0295" rpy="-1.5708 7.85327e-15 -4.65629e-15"/>
      <geometry>
        <mesh filename="package://assets/knee_rod22_sym.stl"/>
      </geometry>
    </collision>
    <!-- Part hex_socket_head_cap_screw_m4x0_70_x_16__8d628c0d7a90368385b1c4c7479647eb_7 -->
    <!-- Part hex_socket_head_cap_screw_m2_5x0_45_x_6__ec244025d76f8b83b2775022a2cb3232_16 -->
    <!-- Part hex_socket_head_cap_screw_m4x0_70_x_8__a416dc2a8d778a4ef6150c0739aa89d1_15 -->
    <!-- Part hex_socket_head_cap_screw_m4x0_70_x_8__a416dc2a8d778a4ef6150c0739aa89d1_16 -->
    <!-- Part hex_socket_head_cap_screw_m4x0_70_x_8__a416dc2a8d778a4ef6150c0739aa89d1_17 -->
    <!-- Part hex_socket_head_cap_screw_m2_5x0_45_x_6__ec244025d76f8b83b2775022a2cb3232_17 -->
    <!-- Part hex_socket_head_cap_screw_m4x0_70_x_16__8d628c0d7a90368385b1c4c7479647eb_8 -->
    <!-- Part hex_socket_head_cap_screw_m4x0_70_x_40__14321d45d56569246e7feb4574a6bae6_25 -->
    <!-- Part hex_socket_head_cap_screw_m4x0_70_x_8__a416dc2a8d778a4ef6150c0739aa89d1_18 -->
    <!-- Part hex_socket_head_cap_screw_m4x0_70_x_8__a416dc2a8d778a4ef6150c0739aa89d1_19 -->
    <!-- Part hex_socket_head_cap_screw_m4x0_70_x_8__a416dc2a8d778a4ef6150c0739aa89d1_20 -->
    <!-- Part hex_socket_head_cap_screw_m4x0_70_x_16__8d628c0d7a90368385b1c4c7479647eb_9 -->
    <!-- Part bearing_15_21_4_8 -->
    <visual>
      <origin xyz="-0.221927 -0.268257 -0.0185" rpy="-1.5708 -3.39599e-14 1.5708"/>
      <geometry>
        <mesh filename="package://assets/bearing_15_21_4.stl"/>
      </geometry>
      <material name="bearing_15_21_4_8_material">
        <color rgba="0.647059 0.647059 0.647059 1"/>
      </material>
    </visual>
    <collision>
      <origin xyz="-0.221927 -0.268257 -0.0185" rpy="-1.5708 -3.39599e-14 1.5708"/>
      <geometry>
        <mesh filename="package://assets/bearing_15_21_4.stl"/>
      </geometry>
    </collision>
    <!-- Part part_3_4 -->
    <visual>
      <origin xyz="-2.51188e-15 5.06539e-15 -0.0938" rpy="0.523599 1.5708 0"/>
      <geometry>
        <mesh filename="package://assets/part_3.stl"/>
      </geometry>
      <material name="part_3_4_material">
        <color rgba="1 0 0 1"/>
      </material>
    </visual>
    <collision>
      <origin xyz="-2.51188e-15 5.06539e-15 -0.0938" rpy="0.523599 1.5708 0"/>
      <geometry>
        <mesh filename="package://assets/part_3.stl"/>
      </geometry>
    </collision>
    <!-- Part bearing_15_21_4_9 -->
    <visual>
      <origin xyz="-0.102915 -0.0784891 -0.0245" rpy="-1.5708 7.85156e-15 -4.64274e-15"/>
      <geometry>
        <mesh filename="package://assets/bearing_15_21_4.stl"/>
      </geometry>
      <material name="bearing_15_21_4_9_material">
        <color rgba="0.647059 0.647059 0.647059 1"/>
      </material>
    </visual>
    <collision>
      <origin xyz="-0.102915 -0.0784891 -0.0245" rpy="-1.5708 7.85156e-15 -4.64274e-15"/>
      <geometry>
        <mesh filename="package://assets/bearing_15_21_4.stl"/>
      </geometry>
    </collision>
    <!-- Part hex_socket_head_cap_screw_m4x0_70_x_40__14321d45d56569246e7feb4574a6bae6_26 -->
    <!-- Part hex_socket_head_cap_screw_m4x0_70_x_8__a416dc2a8d778a4ef6150c0739aa89d1_21 -->
    <!-- Part bearing_15_21_4_10 -->
    <visual>
      <origin xyz="-2.96985e-15 3.48332e-15 -0.0675" rpy="-1.5708 -1.49331e-14 2.61799"/>
      <geometry>
        <mesh filename="package://assets/bearing_15_21_4.stl"/>
      </geometry>
      <material name="bearing_15_21_4_10_material">
        <color rgba="0.647059 0.647059 0.647059 1"/>
      </material>
    </visual>
    <collision>
      <origin xyz="-2.96985e-15 3.48332e-15 -0.0675" rpy="-1.5708 -1.49331e-14 2.61799"/>
      <geometry>
        <mesh filename="package://assets/bearing_15_21_4.stl"/>
      </geometry>
    </collision>
    <!-- Part bearing_15_21_4_11 -->
    <visual>
      <origin xyz="-0.102915 -0.0784891 -0.0365" rpy="1.5708 7.85327e-15 -4.65629e-15"/>
      <geometry>
        <mesh filename="package://assets/bearing_15_21_4.stl"/>
      </geometry>
      <material name="bearing_15_21_4_11_material">
        <color rgba="0.647059 0.647059 0.647059 1"/>
      </material>
    </visual>
    <collision>
      <origin xyz="-0.102915 -0.0784891 -0.0365" rpy="1.5708 7.85327e-15 -4.65629e-15"/>
      <geometry>
        <mesh filename="package://assets/bearing_15_21_4.stl"/>
      </geometry>
    </collision>
    <!-- Part bearing_15_21_4_12 -->
    <visual>
      <origin xyz="-0.221927 -0.268257 -0.0465" rpy="-1.5708 -3.33593e-14 1.5708"/>
      <geometry>
        <mesh filename="package://assets/bearing_15_21_4.stl"/>
      </geometry>
      <material name="bearing_15_21_4_12_material">
        <color rgba="0.647059 0.647059 0.647059 1"/>
      </material>
    </visual>
    <collision>
      <origin xyz="-0.221927 -0.268257 -0.0465" rpy="-1.5708 -3.33593e-14 1.5708"/>
      <geometry>
        <mesh filename="package://assets/bearing_15_21_4.stl"/>
      </geometry>
    </collision>
    <!-- Part hex_socket_head_cap_screw_m2_5x0_45_x_6__ec244025d76f8b83b2775022a2cb3232_18 -->
    <!-- Part hex_socket_head_cap_screw_m4x0_70_x_16__8d628c0d7a90368385b1c4c7479647eb_10 -->
    <!-- Part hex_socket_head_cap_screw_m4x0_70_x_8__a416dc2a8d778a4ef6150c0739aa89d1_22 -->
    <!-- Part hex_socket_head_cap_screw_m4x0_70_x_40__14321d45d56569246e7feb4574a6bae6_27 -->
    <!-- Part femur_12_sym -->
    <visual>
      <origin xyz="-0.17 -0.294449 0.0295" rpy="-1.5708 1.49607e-14 -0.523599"/>
      <geometry>
        <mesh filename="package://assets/femur_12_sym.stl"/>
      </geometry>
      <material name="femur_12_sym_material">
        <color rgba="1 0 0 1"/>
      </material>
    </visual>
    <collision>
      <origin xyz="-0.17 -0.294449 0.0295" rpy="-1.5708 1.49607e-14 -0.523599"/>
      <geometry>
        <mesh filename="package://assets/femur_12_sym.stl"/>
      </geometry>
    </collision>
    <!-- Part bearing_5_16_5_5 -->
    <visual>
      <origin xyz="-0.17 -0.294449 -0.045" rpy="1.5708 -1.51768e-14 2.61799"/>
      <geometry>
        <mesh filename="package://assets/bearing_5_16_5.stl"/>
      </geometry>
      <material name="bearing_5_16_5_5_material">
        <color rgba="0.917647 0.917647 0.917647 1"/>
      </material>
    </visual>
    <collision>
      <origin xyz="-0.17 -0.294449 -0.045" rpy="1.5708 -1.51768e-14 2.61799"/>
      <geometry>
        <mesh filename="package://assets/bearing_5_16_5.stl"/>
      </geometry>
    </collision>
    <!-- Part hex_socket_head_cap_screw_m3x0_50_x_10__9c80fcbba574884e63b580474e1ee150_28 -->
    <!-- Part hex_socket_head_cap_screw_m4x0_70_x_40__14321d45d56569246e7feb4574a6bae6_28 -->
    <!-- Part hex_socket_head_cap_screw_m4x0_70_x_16__8d628c0d7a90368385b1c4c7479647eb_11 -->
    <!-- Part hex_socket_head_cap_screw_m2_5x0_45_x_6__ec244025d76f8b83b2775022a2cb3232_19 -->
    <!-- Part hex_socket_head_cap_screw_m4x0_70_x_8__a416dc2a8d778a4ef6150c0739aa89d1_23 -->
    <!-- Part hex_socket_head_cap_screw_m2_5x0_45_x_6__ec244025d76f8b83b2775022a2cb3232_20 -->
    <!-- Part hex_socket_head_cap_screw_m4x0_70_x_16__8d628c0d7a90368385b1c4c7479647eb_12 -->
    <!-- Part knee_actuation_2 -->
    <visual>
      <origin xyz="-0.058 0.123541 -0.0305" rpy="1.5708 7.86033e-15 -4.40798e-15"/>
      <geometry>
        <mesh filename="package://assets/knee_actuation.stl"/>
      </geometry>
      <material name="knee_actuation_2_material">
        <color rgba="0.917647 0.917647 0.917647 1"/>
      </material>
    </visual>
    <collision>
      <origin xyz="-0.058 0.123541 -0.0305" rpy="1.5708 7.86033e-15 -4.40798e-15"/>
      <geometry>
        <mesh filename="package://assets/knee_actuation.stl"/>
      </geometry>
    </collision>
    <!-- Part femur_22_sym -->
    <visual>
      <origin xyz="-0.17 -0.294449 0.0295" rpy="-1.5708 1.49611e-14 -0.523599"/>
      <geometry>
        <mesh filename="package://assets/femur_22_sym.stl"/>
      </geometry>
      <material name="femur_22_sym_material">
        <color rgba="1 0 0 1"/>
      </material>
    </visual>
    <collision>
      <origin xyz="-0.17 -0.294449 0.0295" rpy="-1.5708 1.49611e-14 -0.523599"/>
      <geometry>
        <mesh filename="package://assets/femur_22_sym.stl"/>
      </geometry>
    </collision>
    <!-- Part hat_femur_2 -->
    <visual>
      <origin xyz="-0.17 -0.294449 -0.0305" rpy="1.5708 -1.51768e-14 2.61799"/>
      <geometry>
        <mesh filename="package://assets/hat_femur.stl"/>
      </geometry>
      <material name="hat_femur_2_material">
        <color rgba="1 0 0 1"/>
      </material>
    </visual>
    <collision>
      <origin xyz="-0.17 -0.294449 -0.0305" rpy="1.5708 -1.51768e-14 2.61799"/>
      <geometry>
        <mesh filename="package://assets/hat_femur.stl"/>
      </geometry>
    </collision>
    <!-- Part hex_socket_head_cap_screw_m4x0_70_x_8__a416dc2a8d778a4ef6150c0739aa89d1_24 -->
    <!-- Part hex_socket_head_cap_screw_m3x0_50_x_10__9c80fcbba574884e63b580474e1ee150_29 -->
    <!-- Part bearing_5_16_5_6 -->
    <visual>
      <origin xyz="-0.17 -0.294449 -0.013" rpy="-1.5708 -1.31037e-14 2.61799"/>
      <geometry>
        <mesh filename="package://assets/bearing_5_16_5.stl"/>
      </geometry>
      <material name="bearing_5_16_5_6_material">
        <color rgba="0.917647 0.917647 0.917647 1"/>
      </material>
    </visual>
    <collision>
      <origin xyz="-0.17 -0.294449 -0.013" rpy="-1.5708 -1.31037e-14 2.61799"/>
      <geometry>
        <mesh filename="package://assets/bearing_5_16_5.stl"/>
      </geometry>
    </collision>
    <!-- Part robstrideo3_3 -->
    <visual>
      <origin xyz="0.655402 -0.194111 -0.0025" rpy="1.5708 -1.53981e-14 2.61799"/>
      <geometry>
        <mesh filename="package://assets/robstrideo3.stl"/>
      </geometry>
      <material name="robstrideo3_3_material">
        <color rgba="0.301961 0.301961 0.301961 1"/>
      </material>
    </visual>
    <collision>
      <origin xyz="0.655402 -0.194111 -0.0025" rpy="1.5708 -1.53981e-14 2.61799"/>
      <geometry>
        <mesh filename="package://assets/robstrideo3.stl"/>
      </geometry>
    </collision>
    <!-- Part hex_socket_head_cap_screw_m4x0_70_x_8__a416dc2a8d778a4ef6150c0739aa89d1_25 -->
    <!-- Part hex_socket_head_cap_screw_m4x0_70_x_8__a416dc2a8d778a4ef6150c0739aa89d1_26 -->
    <!-- Part hex_socket_head_cap_screw_m4x0_70_x_8__a416dc2a8d778a4ef6150c0739aa89d1_27 -->
    <!-- Part knee_rod12_sym -->
    <visual>
      <origin xyz="-0.058 -0.280519 0.0295" rpy="-1.5708 7.85298e-15 -4.69443e-15"/>
      <geometry>
        <mesh filename="package://assets/knee_rod12_sym.stl"/>
      </geometry>
      <material name="knee_rod12_sym_material">
        <color rgba="0.917647 0.917647 0.917647 1"/>
      </material>
    </visual>
    <collision>
      <origin xyz="-0.058 -0.280519 0.0295" rpy="-1.5708 7.85298e-15 -4.69443e-15"/>
      <geometry>
        <mesh filename="package://assets/knee_rod12_sym.stl"/>
      </geometry>
    </collision>
    <!-- Part hex_socket_head_cap_screw_m3x0_50_x_10__9c80fcbba574884e63b580474e1ee150_30 -->
    <!-- Part hex_socket_head_cap_screw_m2_5x0_45_x_6__ec244025d76f8b83b2775022a2cb3232_21 -->
    <!-- Part hex_socket_head_cap_screw_m4x0_70_x_8__a416dc2a8d778a4ef6150c0739aa89d1_28 -->
    <!-- Part robstrideo3_4 -->
    <visual>
      <origin xyz="0.597402 -0.29457 -0.045" rpy="1.5708 -1.53981e-14 2.61799"/>
      <geometry>
        <mesh filename="package://assets/robstrideo3.stl"/>
      </geometry>
      <material name="robstrideo3_4_material">
        <color rgba="0.301961 0.301961 0.301961 1"/>
      </material>
    </visual>
    <collision>
      <origin xyz="0.597402 -0.29457 -0.045" rpy="1.5708 -1.53981e-14 2.61799"/>
      <geometry>
        <mesh filename="package://assets/robstrideo3.stl"/>
      </geometry>
    </collision>
    <!-- Part 1_1_31_qt_942_1_3 -->
    <visual>
      <origin xyz="-4.05231e-15 2.28983e-15 -0.04" rpy="3.74967e-14 2.49083e-14 -2.0944"/>
      <geometry>
        <mesh filename="package://assets/1_1_31_qt_942_1.stl"/>
      </geometry>
      <material name="1_1_31_qt_942_1_3_material">
        <color rgba="0.768627 0.886275 0.952941 1"/>
      </material>
    </visual>
    <collision>
      <origin xyz="-4.05231e-15 2.28983e-15 -0.04" rpy="3.74967e-14 2.49083e-14 -2.0944"/>
      <geometry>
        <mesh filename="package://assets/1_1_31_qt_942_1.stl"/>
      </geometry>
    </collision>
    <!-- Part 1_1_06_eb903_538_1_3 -->
    <visual>
      <origin xyz="-3.63598e-15 3.45557e-15 -0.0566" rpy="3.74967e-14 2.49083e-14 -2.0944"/>
      <geometry>
        <mesh filename="package://assets/1_1_06_eb903_538_1.stl"/>
      </geometry>
      <material name="1_1_06_eb903_538_1_3_material">
        <color rgba="0.498039 0.498039 0.498039 1"/>
      </material>
    </visual>
    <collision>
      <origin xyz="-3.63598e-15 3.45557e-15 -0.0566" rpy="3.74967e-14 2.49083e-14 -2.0944"/>
      <geometry>
        <mesh filename="package://assets/1_1_06_eb903_538_1.stl"/>
      </geometry>
    </collision>
    <!-- Part 1_1_31_qt_942_1_4 -->
    <visual>
      <origin xyz="-0.058 -0.100459 -0.0825" rpy="3.39169e-13 -2.07585e-14 -0.523599"/>
      <geometry>
        <mesh filename="package://assets/1_1_31_qt_942_1.stl"/>
      </geometry>
      <material name="1_1_31_qt_942_1_4_material">
        <color rgba="0.768627 0.886275 0.952941 1"/>
      </material>
    </visual>
    <collision>
      <origin xyz="-0.058 -0.100459 -0.0825" rpy="3.39169e-13 -2.07585e-14 -0.523599"/>
      <geometry>
        <mesh filename="package://assets/1_1_31_qt_942_1.stl"/>
      </geometry>
    </collision>
    <!-- Part 1_1_06_eb903_538_1_4 -->
    <visual>
      <origin xyz="-0.058 -0.100459 -0.0991" rpy="3.39169e-13 -2.07585e-14 -0.523599"/>
      <geometry>
        <mesh filename="package://assets/1_1_06_eb903_538_1.stl"/>
      </geometry>
      <material name="1_1_06_eb903_538_1_4_material">
        <color rgba="0.498039 0.498039 0.498039 1"/>
      </material>
    </visual>
    <collision>
      <origin xyz="-0.058 -0.100459 -0.0991" rpy="3.39169e-13 -2.07585e-14 -0.523599"/>
      <geometry>
        <mesh filename="package://assets/1_1_06_eb903_538_1.stl"/>
      </geometry>
    </collision>
    <!-- Part 1_1_06_eb903_537_af0_1_3 -->
    <visual>
      <origin xyz="-3.45557e-15 1.73472e-15 -0.0375" rpy="5.94276e-14 1.49604e-14 -0.523599"/>
      <geometry>
        <mesh filename="package://assets/1_1_06_eb903_537_af0_1.stl"/>
      </geometry>
      <material name="1_1_06_eb903_537_af0_1_3_material">
        <color rgba="0.768627 0.886275 0.952941 1"/>
      </material>
    </visual>
    <collision>
      <origin xyz="-3.45557e-15 1.73472e-15 -0.0375" rpy="5.94276e-14 1.49604e-14 -0.523599"/>
      <geometry>
        <mesh filename="package://assets/1_1_06_eb903_537_af0_1.stl"/>
      </geometry>
    </collision>
    <!-- Part 1_1_02_eb901_558_1_3 -->
    <visual>
      <origin xyz="-1.38778e-17 0 -1.38778e-17" rpy="-3.14159 -1.37399e-19 6.25838e-17"/>
      <geometry>
        <mesh filename="package://assets/1_1_02_eb901_558_1.stl"/>
      </geometry>
      <material name="1_1_02_eb901_558_1_3_material">
        <color rgba="0.917647 0.917647 0.917647 1"/>
      </material>
    </visual>
    <collision>
      <origin xyz="-1.38778e-17 0 -1.38778e-17" rpy="-3.14159 -1.37399e-19 6.25838e-17"/>
      <geometry>
        <mesh filename="package://assets/1_1_02_eb901_558_1.stl"/>
      </geometry>
    </collision>
    <!-- Part 1_1_06_eb903_537_af0_1_4 -->
    <visual>
      <origin xyz="-0.058 -0.100459 -0.08" rpy="1.46274e-14 -5.95824e-14 1.0472"/>
      <geometry>
        <mesh filename="package://assets/1_1_06_eb903_537_af0_1.stl"/>
      </geometry>
      <material name="1_1_06_eb903_537_af0_1_4_material">
        <color rgba="0.768627 0.886275 0.952941 1"/>
      </material>
    </visual>
    <collision>
      <origin xyz="-0.058 -0.100459 -0.08" rpy="1.46274e-14 -5.95824e-14 1.0472"/>
      <geometry>
        <mesh filename="package://assets/1_1_06_eb903_537_af0_1.stl"/>
      </geometry>
    </collision>
    <!-- Part 1_1_02_eb901_558_1_4 -->
    <visual>
      <origin xyz="-0.058 -0.100459 -0.0425" rpy="-3.14159 -3.39633e-14 1.5708"/>
      <geometry>
        <mesh filename="package://assets/1_1_02_eb901_558_1.stl"/>
      </geometry>
      <material name="1_1_02_eb901_558_1_4_material">
        <color rgba="0.917647 0.917647 0.917647 1"/>
      </material>
    </visual>
    <collision>
      <origin xyz="-0.058 -0.100459 -0.0425" rpy="-3.14159 -3.39633e-14 1.5708"/>
      <geometry>
        <mesh filename="package://assets/1_1_02_eb901_558_1.stl"/>
      </geometry>
    </collision>
  </link>
  <!-- Link shin_subassembly_sym -->
  <link name="shin_subassembly_sym">
    <inertial>
      <origin xyz="0.00133174 -0.0908013 -1.51262e-05" rpy="0 0 0"/>
      <mass value="0.593266"/>
      <inertia ixx="0.00173882" ixy="-5.54293e-05" ixz="2.67934e-06" iyy="0.000241815" iyz="9.5357e-05" izz="0.00176032"/>
    </inertial>
    <!-- Part hex_socket_head_cap_screw_m3x0_50_x_20__7252065e4445f5ec71347b53fcae11e4_13 -->
    <!-- Part xt_30_2x2_f_6 -->
    <visual>
      <origin xyz="0.0212074 -0.0322876 0.0147" rpy="2.35619 1.5708 0"/>
      <geometry>
        <mesh filename="package://assets/xt_30_2x2_f.stl"/>
      </geometry>
      <material name="xt_30_2x2_f_6_material">
        <color rgba="0.917647 0.917647 0.917647 1"/>
      </material>
    </visual>
    <collision>
      <origin xyz="0.0212074 -0.0322876 0.0147" rpy="2.35619 1.5708 0"/>
      <geometry>
        <mesh filename="package://assets/xt_30_2x2_f.stl"/>
      </geometry>
    </collision>
    <!-- Part hex_socket_head_cap_screw_m3x0_50_x_20__7252065e4445f5ec71347b53fcae11e4_14 -->
    <!-- Part hex_socket_head_cap_screw_m3x0_50_x_20__7252065e4445f5ec71347b53fcae11e4_15 -->
    <!-- Part hex_socket_head_cap_screw_m3x0_50_x_10__9c80fcbba574884e63b580474e1ee150_31 -->
    <!-- Part 27628_01_050_catpart_5 -->
    <visual>
      <origin xyz="0.0300907 -0.0130682 -0.0195" rpy="1.5708 3.08677e-14 0.80783"/>
      <geometry>
        <mesh filename="package://assets/27628_01_050_catpart.stl"/>
      </geometry>
      <material name="27628_01_050_catpart_5_material">
        <color rgba="0.690196 0.690196 0.690196 1"/>
      </material>
    </visual>
    <collision>
      <origin xyz="0.0300907 -0.0130682 -0.0195" rpy="1.5708 3.08677e-14 0.80783"/>
      <geometry>
        <mesh filename="package://assets/27628_01_050_catpart.stl"/>
      </geometry>
    </collision>
    <!-- Part hex_socket_head_cap_screw_m3x0_50_x_20__7252065e4445f5ec71347b53fcae11e4_16 -->
    <!-- Part hex_socket_head_cap_screw_m3x0_50_x_30__cb22dc4460edbee8e1cbddf29677c00f_2 -->
    <!-- Part hex_socket_head_cap_screw_m3x0_50_x_10__9c80fcbba574884e63b580474e1ee150_32 -->
    <!-- Part hex_socket_head_cap_screw_m3x0_50_x_10__9c80fcbba574884e63b580474e1ee150_33 -->
    <!-- Part 07534_05x40_catpart_3 -->
    <visual>
      <origin xyz="5.55112e-17 0 -0.025" rpy="-1.5708 -1.5708 0"/>
      <geometry>
        <mesh filename="package://assets/07534_05x40_catpart.stl"/>
      </geometry>
      <material name="07534_05x40_catpart_3_material">
        <color rgba="0.690196 0.690196 0.690196 1"/>
      </material>
    </visual>
    <collision>
      <origin xyz="5.55112e-17 0 -0.025" rpy="-1.5708 -1.5708 0"/>
      <geometry>
        <mesh filename="package://assets/07534_05x40_catpart.stl"/>
      </geometry>
    </collision>
    <!-- Part hex_socket_head_cap_screw_m3x0_50_x_10__9c80fcbba574884e63b580474e1ee150_34 -->
    <!-- Part hex_socket_head_cap_screw_m3x0_50_x_10__9c80fcbba574884e63b580474e1ee150_35 -->
    <!-- Part hex_socket_head_cap_screw_m3x0_50_x_10__9c80fcbba574884e63b580474e1ee150_36 -->
    <!-- Part hex_socket_head_cap_screw_m3x0_50_x_10__9c80fcbba574884e63b580474e1ee150_37 -->
    <!-- Part hex_socket_head_cap_screw_m3x0_50_x_20__7252065e4445f5ec71347b53fcae11e4_17 -->
    <!-- Part 07534_05x20_catpart_5 -->
    <visual>
      <origin xyz="0.0300908 -0.0660682 0.0405" rpy="-0.925025 1.5708 0"/>
      <geometry>
        <mesh filename="package://assets/07534_05x20_catpart.stl"/>
      </geometry>
      <material name="07534_05x20_catpart_5_material">
        <color rgba="0.690196 0.690196 0.690196 1"/>
      </material>
    </visual>
    <collision>
      <origin xyz="0.0300908 -0.0660682 0.0405" rpy="-0.925025 1.5708 0"/>
      <geometry>
        <mesh filename="package://assets/07534_05x20_catpart.stl"/>
      </geometry>
    </collision>
    <!-- Part tibias12_sym -->
    <visual>
      <origin xyz="-3.33067e-16 -0.26 0.067" rpy="-1.5708 -3.95194e-16 6.02547e-16"/>
      <geometry>
        <mesh filename="package://assets/tibias12_sym.stl"/>
      </geometry>
      <material name="tibias12_sym_material">
        <color rgba="1 0 0 1"/>
      </material>
    </visual>
    <collision>
      <origin xyz="-3.33067e-16 -0.26 0.067" rpy="-1.5708 -3.95194e-16 6.02547e-16"/>
      <geometry>
        <mesh filename="package://assets/tibias12_sym.stl"/>
      </geometry>
    </collision>
    <!-- Part hex_socket_head_cap_screw_m2_5x0_45_x_8__dec2226ceabd7d7ca0bb403ec234d89b_4 -->
    <!-- Part actuation_ankle_3 -->
    <visual>
      <origin xyz="0.12299 -0.14568 0.0195" rpy="-1.5708 5.46399e-14 0.925025"/>
      <geometry>
        <mesh filename="package://assets/actuation_ankle.stl"/>
      </geometry>
      <material name="actuation_ankle_3_material">
        <color rgba="0.917647 0.917647 0.917647 1"/>
      </material>
    </visual>
    <collision>
      <origin xyz="0.12299 -0.14568 0.0195" rpy="-1.5708 5.46399e-14 0.925025"/>
      <geometry>
        <mesh filename="package://assets/actuation_ankle.stl"/>
      </geometry>
    </collision>
    <!-- Part hex_socket_head_cap_screw_m3x0_50_x_20__7252065e4445f5ec71347b53fcae11e4_18 -->
    <!-- Part hex_socket_head_cap_screw_m3x0_50_x_10__9c80fcbba574884e63b580474e1ee150_38 -->
    <!-- Part hex_socket_head_cap_screw_m3x0_50_x_10__9c80fcbba574884e63b580474e1ee150_39 -->
    <!-- Part hex_thin_nut_grade_a___b_m4x0_7__a8228d9ce5dcc05f24da0a2f74d882f3_5 -->
    <visual>
      <origin xyz="0.0300908 -0.0660682 0.0129398" rpy="3.14159 4.34456e-16 2.49582"/>
      <geometry>
        <mesh filename="package://assets/hex_thin_nut_grade_a___b_m4x0_7__a8228d9ce5dcc05f24da0a2f74d882f3.stl"/>
      </geometry>
      <material name="hex_thin_nut_grade_a___b_m4x0_7__a8228d9ce5dcc05f24da0a2f74d882f3_5_material">
        <color rgba="0.603922 0.647059 0.686275 1"/>
      </material>
    </visual>
    <collision>
      <origin xyz="0.0300908 -0.0660682 0.0129398" rpy="3.14159 4.34456e-16 2.49582"/>
      <geometry>
        <mesh filename="package://assets/hex_thin_nut_grade_a___b_m4x0_7__a8228d9ce5dcc05f24da0a2f74d882f3.stl"/>
      </geometry>
    </collision>
    <!-- Part hex_socket_head_cap_screw_m3x0_50_x_10__9c80fcbba574884e63b580474e1ee150_40 -->
    <!-- Part hex_socket_head_cap_screw_m3x0_50_x_20__7252065e4445f5ec71347b53fcae11e4_19 -->
    <!-- Part hex_socket_head_cap_screw_m3x0_50_x_20__7252065e4445f5ec71347b53fcae11e4_20 -->
    <!-- Part hex_socket_head_cap_screw_m3x0_50_x_10__9c80fcbba574884e63b580474e1ee150_41 -->
    <!-- Part rmdx43_3 -->
    <visual>
      <origin xyz="0.470217 -0.113201 -0.006" rpy="-1.5708 3.48248e-16 -3.14159"/>
      <geometry>
        <mesh filename="package://assets/rmdx43.stl"/>
      </geometry>
      <material name="rmdx43_3_material">
        <color rgba="0.301961 0.301961 0.301961 1"/>
      </material>
    </visual>
    <collision>
      <origin xyz="0.470217 -0.113201 -0.006" rpy="-1.5708 3.48248e-16 -3.14159"/>
      <geometry>
        <mesh filename="package://assets/rmdx43.stl"/>
      </geometry>
    </collision>
    <!-- Part hex_socket_head_cap_screw_m2_5x0_45_x_8__dec2226ceabd7d7ca0bb403ec234d89b_5 -->
    <!-- Part hex_socket_head_cap_screw_m4x0_70_x_12__c825518ee8edf1afced0eee1b019b750_17 -->
    <!-- Part hex_socket_head_cap_screw_m3x0_50_x_20__7252065e4445f5ec71347b53fcae11e4_21 -->
    <!-- Part hex_socket_head_cap_screw_m4x0_70_x_12__c825518ee8edf1afced0eee1b019b750_18 -->
    <!-- Part hex_socket_head_cap_screw_m3x0_50_x_10__9c80fcbba574884e63b580474e1ee150_42 -->
    <!-- Part hex_socket_head_cap_screw_m3x0_50_x_10__9c80fcbba574884e63b580474e1ee150_43 -->
    <!-- Part hex_socket_head_cap_screw_m3x0_50_x_10__9c80fcbba574884e63b580474e1ee150_44 -->
    <!-- Part hex_socket_head_cap_screw_m4x0_70_x_12__c825518ee8edf1afced0eee1b019b750_19 -->
    <!-- Part hex_socket_head_cap_screw_m3x0_50_x_20__7252065e4445f5ec71347b53fcae11e4_22 -->
    <!-- Part hex_socket_head_cap_screw_m3x0_50_x_10__9c80fcbba574884e63b580474e1ee150_45 -->
    <!-- Part hex_socket_head_cap_screw_m3x0_50_x_10__9c80fcbba574884e63b580474e1ee150_46 -->
    <!-- Part 07534_05x20_catpart_6 -->
    <visual>
      <origin xyz="0.0300908 -0.0130682 -0.0405" rpy="0.925025 -1.5708 0"/>
      <geometry>
        <mesh filename="package://assets/07534_05x20_catpart.stl"/>
      </geometry>
      <material name="07534_05x20_catpart_6_material">
        <color rgba="0.690196 0.690196 0.690196 1"/>
      </material>
    </visual>
    <collision>
      <origin xyz="0.0300908 -0.0130682 -0.0405" rpy="0.925025 -1.5708 0"/>
      <geometry>
        <mesh filename="package://assets/07534_05x20_catpart.stl"/>
      </geometry>
    </collision>
    <!-- Part rmdx43_4 -->
    <visual>
      <origin xyz="0.470217 -0.0457991 0.006" rpy="1.5708 -1.6516e-15 -3.14159"/>
      <geometry>
        <mesh filename="package://assets/rmdx43.stl"/>
      </geometry>
      <material name="rmdx43_4_material">
        <color rgba="0.301961 0.301961 0.301961 1"/>
      </material>
    </visual>
    <collision>
      <origin xyz="0.470217 -0.0457991 0.006" rpy="1.5708 -1.6516e-15 -3.14159"/>
      <geometry>
        <mesh filename="package://assets/rmdx43.stl"/>
      </geometry>
    </collision>
    <!-- Part tibias22_sym -->
    <visual>
      <origin xyz="-6.10623e-16 -0.26 0.067" rpy="-1.5708 -3.81607e-16 6.63698e-16"/>
      <geometry>
        <mesh filename="package://assets/tibias22_sym.stl"/>
      </geometry>
      <material name="tibias22_sym_material">
        <color rgba="1 0 0 1"/>
      </material>
    </visual>
    <collision>
      <origin xyz="-6.10623e-16 -0.26 0.067" rpy="-1.5708 -3.81607e-16 6.63698e-16"/>
      <geometry>
        <mesh filename="package://assets/tibias22_sym.stl"/>
      </geometry>
    </collision>
    <!-- Part hex_socket_head_cap_screw_m3x0_50_x_20__7252065e4445f5ec71347b53fcae11e4_23 -->
    <!-- Part hex_socket_head_cap_screw_m4x0_70_x_12__c825518ee8edf1afced0eee1b019b750_20 -->
    <!-- Part hex_socket_head_cap_screw_m3x0_50_x_10__9c80fcbba574884e63b580474e1ee150_47 -->
    <!-- Part xt_30_2x2_f_7 -->
    <visual>
      <origin xyz="0.0212074 -0.126712 -0.015" rpy="-0.785398 -1.5708 0"/>
      <geometry>
        <mesh filename="package://assets/xt_30_2x2_f.stl"/>
      </geometry>
      <material name="xt_30_2x2_f_7_material">
        <color rgba="0.917647 0.917647 0.917647 1"/>
      </material>
    </visual>
    <collision>
      <origin xyz="0.0212074 -0.126712 -0.015" rpy="-0.785398 -1.5708 0"/>
      <geometry>
        <mesh filename="package://assets/xt_30_2x2_f.stl"/>
      </geometry>
    </collision>
    <!-- Part hex_thin_nut_grade_a___b_m4x0_7__a8228d9ce5dcc05f24da0a2f74d882f3_6 -->
    <visual>
      <origin xyz="5.55112e-17 0 0.0247602" rpy="-3.14159 2.96953e-15 -3.14159"/>
      <geometry>
        <mesh filename="package://assets/hex_thin_nut_grade_a___b_m4x0_7__a8228d9ce5dcc05f24da0a2f74d882f3.stl"/>
      </geometry>
      <material name="hex_thin_nut_grade_a___b_m4x0_7__a8228d9ce5dcc05f24da0a2f74d882f3_6_material">
        <color rgba="0.603922 0.647059 0.686275 1"/>
      </material>
    </visual>
    <collision>
      <origin xyz="5.55112e-17 0 0.0247602" rpy="-3.14159 2.96953e-15 -3.14159"/>
      <geometry>
        <mesh filename="package://assets/hex_thin_nut_grade_a___b_m4x0_7__a8228d9ce5dcc05f24da0a2f74d882f3.stl"/>
      </geometry>
    </collision>
    <!-- Part hex_socket_head_cap_screw_m3x0_50_x_10__9c80fcbba574884e63b580474e1ee150_48 -->
    <!-- Part hex_socket_head_cap_screw_m3x0_50_x_10__9c80fcbba574884e63b580474e1ee150_49 -->
    <!-- Part actuation_ankle_4 -->
    <visual>
      <origin xyz="-0.12299 -0.0133205 -0.0195" rpy="1.5708 -1.01676e-14 0.925025"/>
      <geometry>
        <mesh filename="package://assets/actuation_ankle.stl"/>
      </geometry>
      <material name="actuation_ankle_4_material">
        <color rgba="0.917647 0.917647 0.917647 1"/>
      </material>
    </visual>
    <collision>
      <origin xyz="-0.12299 -0.0133205 -0.0195" rpy="1.5708 -1.01676e-14 0.925025"/>
      <geometry>
        <mesh filename="package://assets/actuation_ankle.stl"/>
      </geometry>
    </collision>
    <!-- Part hex_socket_head_cap_screw_m3x0_50_x_10__9c80fcbba574884e63b580474e1ee150_50 -->
    <!-- Part hex_socket_head_cap_screw_m3x0_50_x_10__9c80fcbba574884e63b580474e1ee150_51 -->
    <!-- Part hex_socket_head_cap_screw_m3x0_50_x_10__9c80fcbba574884e63b580474e1ee150_52 -->
    <!-- Part hex_socket_head_cap_screw_m3x0_50_x_10__9c80fcbba574884e63b580474e1ee150_53 -->
    <!-- Part hex_socket_head_cap_screw_m3x0_50_x_20__7252065e4445f5ec71347b53fcae11e4_24 -->
    <!-- Part hat_big_2 -->
    <visual>
      <origin xyz="-4.996e-16 -0.26 -0.019" rpy="1.5708 1.49414e-15 -3.14159"/>
      <geometry>
        <mesh filename="package://assets/hat_big.stl"/>
      </geometry>
      <material name="hat_big_2_material">
        <color rgba="1 0 0 1"/>
      </material>
    </visual>
    <collision>
      <origin xyz="-4.996e-16 -0.26 -0.019" rpy="1.5708 1.49414e-15 -3.14159"/>
      <geometry>
        <mesh filename="package://assets/hat_big.stl"/>
      </geometry>
    </collision>
    <!-- Part hex_socket_head_cap_screw_m2_5x0_45_x_8__dec2226ceabd7d7ca0bb403ec234d89b_6 -->
    <!-- Part 27628_01_050_catpart_6 -->
    <visual>
      <origin xyz="0.0300907 -0.066068 0.0225" rpy="1.5708 4.40996e-17 -3.14146"/>
      <geometry>
        <mesh filename="package://assets/27628_01_050_catpart.stl"/>
      </geometry>
      <material name="27628_01_050_catpart_6_material">
        <color rgba="0.690196 0.690196 0.690196 1"/>
      </material>
    </visual>
    <collision>
      <origin xyz="0.0300907 -0.066068 0.0225" rpy="1.5708 4.40996e-17 -3.14146"/>
      <geometry>
        <mesh filename="package://assets/27628_01_050_catpart.stl"/>
      </geometry>
    </collision>
    <!-- Part hex_socket_head_cap_screw_m3x0_50_x_10__9c80fcbba574884e63b580474e1ee150_54 -->
    <!-- Part hex_thin_nut_grade_a___b_m4x0_7__a8228d9ce5dcc05f24da0a2f74d882f3_7 -->
    <visual>
      <origin xyz="0.0300908 -0.0130682 -0.0129398" rpy="5.50945e-14 1.97724e-14 2.49582"/>
      <geometry>
        <mesh filename="package://assets/hex_thin_nut_grade_a___b_m4x0_7__a8228d9ce5dcc05f24da0a2f74d882f3.stl"/>
      </geometry>
      <material name="hex_thin_nut_grade_a___b_m4x0_7__a8228d9ce5dcc05f24da0a2f74d882f3_7_material">
        <color rgba="0.603922 0.647059 0.686275 1"/>
      </material>
    </visual>
    <collision>
      <origin xyz="0.0300908 -0.0130682 -0.0129398" rpy="5.50945e-14 1.97724e-14 2.49582"/>
      <geometry>
        <mesh filename="package://assets/hex_thin_nut_grade_a___b_m4x0_7__a8228d9ce5dcc05f24da0a2f74d882f3.stl"/>
      </geometry>
    </collision>
    <!-- Part 1_1_31_eb463_510_fl46blw10_48v_5n_m_de_2__fl46blw10_48v_5n_m_de_3 -->
    <visual>
      <origin xyz="-3.05311e-15 -0.106 0.019" rpy="1.25754e-13 1.18588e-13 2.74889"/>
      <geometry>
        <mesh filename="package://assets/1_1_31_eb463_510_fl46blw10_48v_5n_m_de_2__fl46blw10_48v_5n_m_de.stl"/>
      </geometry>
      <material name="1_1_31_eb463_510_fl46blw10_48v_5n_m_de_2__fl46blw10_48v_5n_m_de_3_material">
        <color rgba="1 1 1 1"/>
      </material>
    </visual>
    <collision>
      <origin xyz="-3.05311e-15 -0.106 0.019" rpy="1.25754e-13 1.18588e-13 2.74889"/>
      <geometry>
        <mesh filename="package://assets/1_1_31_eb463_510_fl46blw10_48v_5n_m_de_2__fl46blw10_48v_5n_m_de.stl"/>
      </geometry>
    </collision>
    <!-- Part 1_1_02_eb461_502_fl46blw10_48v_5n_m_de_2__fl46blw10_48v_5n_m_de_3 -->
    <visual>
      <origin xyz="-2.94209e-15 -0.106 0.009" rpy="1.25754e-13 1.18588e-13 2.74889"/>
      <geometry>
        <mesh filename="package://assets/1_1_02_eb461_502_fl46blw10_48v_5n_m_de_2__fl46blw10_48v_5n_m_de.stl"/>
      </geometry>
      <material name="1_1_02_eb461_502_fl46blw10_48v_5n_m_de_2__fl46blw10_48v_5n_m_de_3_material">
        <color rgba="1 1 1 1"/>
      </material>
    </visual>
    <collision>
      <origin xyz="-2.94209e-15 -0.106 0.009" rpy="1.25754e-13 1.18588e-13 2.74889"/>
      <geometry>
        <mesh filename="package://assets/1_1_02_eb461_502_fl46blw10_48v_5n_m_de_2__fl46blw10_48v_5n_m_de.stl"/>
      </geometry>
    </collision>
    <!-- Part 1_1_06_eb463_509_fl46blw10_48v_5n_m_de_2__fl46blw10_48v_5n_m_de_3 -->
    <visual>
      <origin xyz="-1.66533e-16 -0.106 -0.0225" rpy="8.5581e-16 -1.54236e-16 1.5708"/>
      <geometry>
        <mesh filename="package://assets/1_1_06_eb463_509_fl46blw10_48v_5n_m_de_2__fl46blw10_48v_5n_m_de.stl"/>
      </geometry>
      <material name="1_1_06_eb463_509_fl46blw10_48v_5n_m_de_2__fl46blw10_48v_5n_m_de_3_material">
        <color rgba="1 1 1 1"/>
      </material>
    </visual>
    <collision>
      <origin xyz="-1.66533e-16 -0.106 -0.0225" rpy="8.5581e-16 -1.54236e-16 1.5708"/>
      <geometry>
        <mesh filename="package://assets/1_1_06_eb463_509_fl46blw10_48v_5n_m_de_2__fl46blw10_48v_5n_m_de.stl"/>
      </geometry>
    </collision>
    <!-- Part 1_1_06_eb463_507_fl46blw10_48v_5n_m_de_2__fl46blw10_48v_5n_m_de_3 -->
    <visual>
      <origin xyz="-4.44089e-16 -0.106 -0.009" rpy="7.23989e-14 1.33701e-13 2.35619"/>
      <geometry>
        <mesh filename="package://assets/1_1_06_eb463_507_fl46blw10_48v_5n_m_de_2__fl46blw10_48v_5n_m_de.stl"/>
      </geometry>
      <material name="1_1_06_eb463_507_fl46blw10_48v_5n_m_de_2__fl46blw10_48v_5n_m_de_3_material">
        <color rgba="1 1 1 1"/>
      </material>
    </visual>
    <collision>
      <origin xyz="-4.44089e-16 -0.106 -0.009" rpy="7.23989e-14 1.33701e-13 2.35619"/>
      <geometry>
        <mesh filename="package://assets/1_1_06_eb463_507_fl46blw10_48v_5n_m_de_2__fl46blw10_48v_5n_m_de.stl"/>
      </geometry>
    </collision>
    <!-- Part 1_1_31_eb463_510_fl46blw10_48v_5n_m_de_2__fl46blw10_48v_5n_m_de_4 -->
    <visual>
      <origin xyz="1.11022e-16 -0.053 -0.019" rpy="-3.14159 -7.15104e-14 -2.74889"/>
      <geometry>
        <mesh filename="package://assets/1_1_31_eb463_510_fl46blw10_48v_5n_m_de_2__fl46blw10_48v_5n_m_de.stl"/>
      </geometry>
      <material name="1_1_31_eb463_510_fl46blw10_48v_5n_m_de_2__fl46blw10_48v_5n_m_de_4_material">
        <color rgba="1 1 1 1"/>
      </material>
    </visual>
    <collision>
      <origin xyz="1.11022e-16 -0.053 -0.019" rpy="-3.14159 -7.15104e-14 -2.74889"/>
      <geometry>
        <mesh filename="package://assets/1_1_31_eb463_510_fl46blw10_48v_5n_m_de_2__fl46blw10_48v_5n_m_de.stl"/>
      </geometry>
    </collision>
    <!-- Part 1_1_02_eb461_502_fl46blw10_48v_5n_m_de_2__fl46blw10_48v_5n_m_de_4 -->
    <visual>
      <origin xyz="1.72085e-15 -0.053 -0.009" rpy="-3.14159 -7.15104e-14 -2.74889"/>
      <geometry>
        <mesh filename="package://assets/1_1_02_eb461_502_fl46blw10_48v_5n_m_de_2__fl46blw10_48v_5n_m_de.stl"/>
      </geometry>
      <material name="1_1_02_eb461_502_fl46blw10_48v_5n_m_de_2__fl46blw10_48v_5n_m_de_4_material">
        <color rgba="1 1 1 1"/>
      </material>
    </visual>
    <collision>
      <origin xyz="1.72085e-15 -0.053 -0.009" rpy="-3.14159 -7.15104e-14 -2.74889"/>
      <geometry>
        <mesh filename="package://assets/1_1_02_eb461_502_fl46blw10_48v_5n_m_de_2__fl46blw10_48v_5n_m_de.stl"/>
      </geometry>
    </collision>
    <!-- Part 1_1_06_eb463_509_fl46blw10_48v_5n_m_de_2__fl46blw10_48v_5n_m_de_4 -->
    <visual>
      <origin xyz="-1.11022e-16 -0.053 0.0225" rpy="-3.14159 -2.16522e-15 -1.5708"/>
      <geometry>
        <mesh filename="package://assets/1_1_06_eb463_509_fl46blw10_48v_5n_m_de_2__fl46blw10_48v_5n_m_de.stl"/>
      </geometry>
      <material name="1_1_06_eb463_509_fl46blw10_48v_5n_m_de_2__fl46blw10_48v_5n_m_de_4_material">
        <color rgba="1 1 1 1"/>
      </material>
    </visual>
    <collision>
      <origin xyz="-1.11022e-16 -0.053 0.0225" rpy="-3.14159 -2.16522e-15 -1.5708"/>
      <geometry>
        <mesh filename="package://assets/1_1_06_eb463_509_fl46blw10_48v_5n_m_de_2__fl46blw10_48v_5n_m_de.stl"/>
      </geometry>
    </collision>
    <!-- Part 1_1_06_eb463_507_fl46blw10_48v_5n_m_de_2__fl46blw10_48v_5n_m_de_4 -->
    <visual>
      <origin xyz="-3.33067e-16 -0.053 0.009" rpy="-3.14159 -1.58348e-13 -2.35619"/>
      <geometry>
        <mesh filename="package://assets/1_1_06_eb463_507_fl46blw10_48v_5n_m_de_2__fl46blw10_48v_5n_m_de.stl"/>
      </geometry>
      <material name="1_1_06_eb463_507_fl46blw10_48v_5n_m_de_2__fl46blw10_48v_5n_m_de_4_material">
        <color rgba="1 1 1 1"/>
      </material>
    </visual>
    <collision>
      <origin xyz="-3.33067e-16 -0.053 0.009" rpy="-3.14159 -1.58348e-13 -2.35619"/>
      <geometry>
        <mesh filename="package://assets/1_1_06_eb463_507_fl46blw10_48v_5n_m_de_2__fl46blw10_48v_5n_m_de.stl"/>
      </geometry>
    </collision>
    <!-- Part 0001755652_1_1_30_gr_2202_asm_1_asm_1_1_30_gr_2202_asm_fl46blw10_48v_5n_m_de_2__fl46blw10_48v_5n_m_de_5 -->
    <visual>
      <origin xyz="0.00671751 -0.0992825 0.0235" rpy="3.14159 -1.33197e-13 -0.785398"/>
      <geometry>
        <mesh filename="package://assets/0001755652_1_1_30_gr_2202_asm_1_asm_1_1_30_gr_2202_asm_fl46blw10_48v_5n_m_de_2__fl46blw10_48v_5n_m_de.stl"/>
      </geometry>
      <material name="0001755652_1_1_30_gr_2202_asm_1_asm_1_1_30_gr_2202_asm_fl46blw10_48v_5n_m_de_2__fl46blw10_48v_5n_m_de_5_material">
        <color rgba="1 1 1 1"/>
      </material>
    </visual>
    <collision>
      <origin xyz="0.00671751 -0.0992825 0.0235" rpy="3.14159 -1.33197e-13 -0.785398"/>
      <geometry>
        <mesh filename="package://assets/0001755652_1_1_30_gr_2202_asm_1_asm_1_1_30_gr_2202_asm_fl46blw10_48v_5n_m_de_2__fl46blw10_48v_5n_m_de.stl"/>
      </geometry>
    </collision>
    <!-- Part 0001755652_1_1_30_gr_2202_asm_1_asm_1_1_30_gr_2202_asm_fl46blw10_48v_5n_m_de_2__fl46blw10_48v_5n_m_de_6 -->
    <visual>
      <origin xyz="0.00245878 -0.115176 0.0235" rpy="3.14159 -1.33197e-13 -0.785398"/>
      <geometry>
        <mesh filename="package://assets/0001755652_1_1_30_gr_2202_asm_1_asm_1_1_30_gr_2202_asm_fl46blw10_48v_5n_m_de_2__fl46blw10_48v_5n_m_de.stl"/>
      </geometry>
      <material name="0001755652_1_1_30_gr_2202_asm_1_asm_1_1_30_gr_2202_asm_fl46blw10_48v_5n_m_de_2__fl46blw10_48v_5n_m_de_6_material">
        <color rgba="1 1 1 1"/>
      </material>
    </visual>
    <collision>
      <origin xyz="0.00245878 -0.115176 0.0235" rpy="3.14159 -1.33197e-13 -0.785398"/>
      <geometry>
        <mesh filename="package://assets/0001755652_1_1_30_gr_2202_asm_1_asm_1_1_30_gr_2202_asm_fl46blw10_48v_5n_m_de_2__fl46blw10_48v_5n_m_de.stl"/>
      </geometry>
    </collision>
    <!-- Part 0001755652_1_1_30_gr_2202_asm_1_asm_1_1_30_gr_2202_asm_fl46blw10_48v_5n_m_de_2__fl46blw10_48v_5n_m_de_7 -->
    <visual>
      <origin xyz="0.00671751 -0.0597175 -0.0235" rpy="-2.35308e-14 5.20061e-14 0.785398"/>
      <geometry>
        <mesh filename="package://assets/0001755652_1_1_30_gr_2202_asm_1_asm_1_1_30_gr_2202_asm_fl46blw10_48v_5n_m_de_2__fl46blw10_48v_5n_m_de.stl"/>
      </geometry>
      <material name="0001755652_1_1_30_gr_2202_asm_1_asm_1_1_30_gr_2202_asm_fl46blw10_48v_5n_m_de_2__fl46blw10_48v_5n_m_de_7_material">
        <color rgba="1 1 1 1"/>
      </material>
    </visual>
    <collision>
      <origin xyz="0.00671751 -0.0597175 -0.0235" rpy="-2.35308e-14 5.20061e-14 0.785398"/>
      <geometry>
        <mesh filename="package://assets/0001755652_1_1_30_gr_2202_asm_1_asm_1_1_30_gr_2202_asm_fl46blw10_48v_5n_m_de_2__fl46blw10_48v_5n_m_de.stl"/>
      </geometry>
    </collision>
    <!-- Part 0001755652_1_1_30_gr_2202_asm_1_asm_1_1_30_gr_2202_asm_fl46blw10_48v_5n_m_de_2__fl46blw10_48v_5n_m_de_8 -->
    <visual>
      <origin xyz="0.00245878 -0.0438237 -0.0235" rpy="-2.35308e-14 5.20061e-14 0.785398"/>
      <geometry>
        <mesh filename="package://assets/0001755652_1_1_30_gr_2202_asm_1_asm_1_1_30_gr_2202_asm_fl46blw10_48v_5n_m_de_2__fl46blw10_48v_5n_m_de.stl"/>
      </geometry>
      <material name="0001755652_1_1_30_gr_2202_asm_1_asm_1_1_30_gr_2202_asm_fl46blw10_48v_5n_m_de_2__fl46blw10_48v_5n_m_de_8_material">
        <color rgba="1 1 1 1"/>
      </material>
    </visual>
    <collision>
      <origin xyz="0.00245878 -0.0438237 -0.0235" rpy="-2.35308e-14 5.20061e-14 0.785398"/>
      <geometry>
        <mesh filename="package://assets/0001755652_1_1_30_gr_2202_asm_1_asm_1_1_30_gr_2202_asm_fl46blw10_48v_5n_m_de_2__fl46blw10_48v_5n_m_de.stl"/>
      </geometry>
    </collision>
    <!-- Part 0001755652_00mini_000_asm_1_asm_1_asm_00mini__20250103_a0001_asm_1_as_asm_1_1_30_gr_2202_asm_1_asm_1_1_30_gr_2202_asm_fl46blw10_48v_5n_m_de_2__fl46blw10_48v_5n_m_de_3 -->
    <visual>
      <origin xyz="-0.0091763 -0.103541 0.0235" rpy="3.14159 -1.33197e-13 -0.785398"/>
      <geometry>
        <mesh filename="package://assets/0001755652_00mini_000_asm_1_asm_1_asm_00mini__20250103_a0001_asm_1_as_asm_1_1_30_gr_2202_asm_1_asm_1_1_30_gr_2202_asm_fl46blw10_48v_5n_m_de_2__fl46blw10_48v_5n_m_de.stl"/>
      </geometry>
      <material name="0001755652_00mini_000_asm_1_asm_1_asm_00mini__20250103_a0001_asm_1_as_asm_1_1_30_gr_2202_asm_1_asm_1_1_30_gr_2202_asm_fl46blw10_48v_5n_m_de_2__fl46blw10_48v_5n_m_de_3_material">
        <color rgba="1 1 1 1"/>
      </material>
    </visual>
    <collision>
      <origin xyz="-0.0091763 -0.103541 0.0235" rpy="3.14159 -1.33197e-13 -0.785398"/>
      <geometry>
        <mesh filename="package://assets/0001755652_00mini_000_asm_1_asm_1_asm_00mini__20250103_a0001_asm_1_as_asm_1_1_30_gr_2202_asm_1_asm_1_1_30_gr_2202_asm_fl46blw10_48v_5n_m_de_2__fl46blw10_48v_5n_m_de.stl"/>
      </geometry>
    </collision>
    <!-- Part 6706__300001_1_1_00mini_000_asm_1_asm_1_asm_00mini__20250103_a0001_asm_1_as_asm_1_1_30_gr_2202_asm_1_asm_1_1_30_gr_2202_asm_fl46blw10_48v_5n_m_de_2__fl46blw10_48v_5n_m_de_3 -->
    <visual>
      <origin xyz="-2.9976e-15 -0.106 0.02" rpy="3.14159 -1.33197e-13 -0.785398"/>
      <geometry>
        <mesh filename="package://assets/6706__300001_1_1_00mini_000_asm_1_asm_1_asm_00mini__20250103_a0001_asm_1_as_asm_1_1_30_gr_2202_asm_1_asm_1_1_30_gr_2202_asm_fl46blw10_48v_5n_m_de_2__fl46blw10_48v_5n_m_de.stl"/>
      </geometry>
      <material name="6706__300001_1_1_00mini_000_asm_1_asm_1_asm_00mini__20250103_a0001_asm_1_as_asm_1_1_30_gr_2202_asm_1_asm_1_1_30_gr_2202_asm_fl46blw10_48v_5n_m_de_2__fl46blw10_48v_5n_m_de_3_material">
        <color rgba="1 1 1 1"/>
      </material>
    </visual>
    <collision>
      <origin xyz="-2.9976e-15 -0.106 0.02" rpy="3.14159 -1.33197e-13 -0.785398"/>
      <geometry>
        <mesh filename="package://assets/6706__300001_1_1_00mini_000_asm_1_asm_1_asm_00mini__20250103_a0001_asm_1_as_asm_1_1_30_gr_2202_asm_1_asm_1_1_30_gr_2202_asm_fl46blw10_48v_5n_m_de_2__fl46blw10_48v_5n_m_de.stl"/>
      </geometry>
    </collision>
    <!-- Part 0001755650_00mini_000_asm_1_asm_1_asm_00mini__20250103_a0001_asm_1_as_asm_1_1_30_gr_2202_asm_1_asm_1_1_30_gr_2202_asm_fl46blw10_48v_5n_m_de_2__fl46blw10_48v_5n_m_de_3 -->
    <visual>
      <origin xyz="-3.16414e-15 -0.106 0.0204" rpy="3.14159 -1.33197e-13 -0.785398"/>
      <geometry>
        <mesh filename="package://assets/0001755650_00mini_000_asm_1_asm_1_asm_00mini__20250103_a0001_asm_1_as_asm_1_1_30_gr_2202_asm_1_asm_1_1_30_gr_2202_asm_fl46blw10_48v_5n_m_de_2__fl46blw10_48v_5n_m_de.stl"/>
      </geometry>
      <material name="0001755650_00mini_000_asm_1_asm_1_asm_00mini__20250103_a0001_asm_1_as_asm_1_1_30_gr_2202_asm_1_asm_1_1_30_gr_2202_asm_fl46blw10_48v_5n_m_de_2__fl46blw10_48v_5n_m_de_3_material">
        <color rgba="1 1 1 1"/>
      </material>
    </visual>
    <collision>
      <origin xyz="-3.16414e-15 -0.106 0.0204" rpy="3.14159 -1.33197e-13 -0.785398"/>
      <geometry>
        <mesh filename="package://assets/0001755650_00mini_000_asm_1_asm_1_asm_00mini__20250103_a0001_asm_1_as_asm_1_1_30_gr_2202_asm_1_asm_1_1_30_gr_2202_asm_fl46blw10_48v_5n_m_de_2__fl46blw10_48v_5n_m_de.stl"/>
      </geometry>
    </collision>
    <!-- Part 0001755652_00mini_000_asm_1_asm_1_asm_00mini__20250103_a0001_asm_1_as_asm_1_1_30_gr_2202_asm_1_asm_1_1_30_gr_2202_asm_fl46blw10_48v_5n_m_de_2__fl46blw10_48v_5n_m_de_4 -->
    <visual>
      <origin xyz="-0.0091763 -0.0554588 -0.0235" rpy="-2.35308e-14 5.20061e-14 0.785398"/>
      <geometry>
        <mesh filename="package://assets/0001755652_00mini_000_asm_1_asm_1_asm_00mini__20250103_a0001_asm_1_as_asm_1_1_30_gr_2202_asm_1_asm_1_1_30_gr_2202_asm_fl46blw10_48v_5n_m_de_2__fl46blw10_48v_5n_m_de.stl"/>
      </geometry>
      <material name="0001755652_00mini_000_asm_1_asm_1_asm_00mini__20250103_a0001_asm_1_as_asm_1_1_30_gr_2202_asm_1_asm_1_1_30_gr_2202_asm_fl46blw10_48v_5n_m_de_2__fl46blw10_48v_5n_m_de_4_material">
        <color rgba="1 1 1 1"/>
      </material>
    </visual>
    <collision>
      <origin xyz="-0.0091763 -0.0554588 -0.0235" rpy="-2.35308e-14 5.20061e-14 0.785398"/>
      <geometry>
        <mesh filename="package://assets/0001755652_00mini_000_asm_1_asm_1_asm_00mini__20250103_a0001_asm_1_as_asm_1_1_30_gr_2202_asm_1_asm_1_1_30_gr_2202_asm_fl46blw10_48v_5n_m_de_2__fl46blw10_48v_5n_m_de.stl"/>
      </geometry>
    </collision>
    <!-- Part 6706__300001_1_1_00mini_000_asm_1_asm_1_asm_00mini__20250103_a0001_asm_1_as_asm_1_1_30_gr_2202_asm_1_asm_1_1_30_gr_2202_asm_fl46blw10_48v_5n_m_de_2__fl46blw10_48v_5n_m_de_4 -->
    <visual>
      <origin xyz="9.4369e-16 -0.053 -0.02" rpy="-2.35308e-14 5.20061e-14 0.785398"/>
      <geometry>
        <mesh filename="package://assets/6706__300001_1_1_00mini_000_asm_1_asm_1_asm_00mini__20250103_a0001_asm_1_as_asm_1_1_30_gr_2202_asm_1_asm_1_1_30_gr_2202_asm_fl46blw10_48v_5n_m_de_2__fl46blw10_48v_5n_m_de.stl"/>
      </geometry>
      <material name="6706__300001_1_1_00mini_000_asm_1_asm_1_asm_00mini__20250103_a0001_asm_1_as_asm_1_1_30_gr_2202_asm_1_asm_1_1_30_gr_2202_asm_fl46blw10_48v_5n_m_de_2__fl46blw10_48v_5n_m_de_4_material">
        <color rgba="1 1 1 1"/>
      </material>
    </visual>
    <collision>
      <origin xyz="9.4369e-16 -0.053 -0.02" rpy="-2.35308e-14 5.20061e-14 0.785398"/>
      <geometry>
        <mesh filename="package://assets/6706__300001_1_1_00mini_000_asm_1_asm_1_asm_00mini__20250103_a0001_asm_1_as_asm_1_1_30_gr_2202_asm_1_asm_1_1_30_gr_2202_asm_fl46blw10_48v_5n_m_de_2__fl46blw10_48v_5n_m_de.stl"/>
      </geometry>
    </collision>
    <!-- Part 0001755650_00mini_000_asm_1_asm_1_asm_00mini__20250103_a0001_asm_1_as_asm_1_1_30_gr_2202_asm_1_asm_1_1_30_gr_2202_asm_fl46blw10_48v_5n_m_de_2__fl46blw10_48v_5n_m_de_4 -->
    <visual>
      <origin xyz="2.22045e-16 -0.053 -0.0204" rpy="-2.35308e-14 5.20061e-14 0.785398"/>
      <geometry>
        <mesh filename="package://assets/0001755650_00mini_000_asm_1_asm_1_asm_00mini__20250103_a0001_asm_1_as_asm_1_1_30_gr_2202_asm_1_asm_1_1_30_gr_2202_asm_fl46blw10_48v_5n_m_de_2__fl46blw10_48v_5n_m_de.stl"/>
      </geometry>
      <material name="0001755650_00mini_000_asm_1_asm_1_asm_00mini__20250103_a0001_asm_1_as_asm_1_1_30_gr_2202_asm_1_asm_1_1_30_gr_2202_asm_fl46blw10_48v_5n_m_de_2__fl46blw10_48v_5n_m_de_4_material">
        <color rgba="1 1 1 1"/>
      </material>
    </visual>
    <collision>
      <origin xyz="2.22045e-16 -0.053 -0.0204" rpy="-2.35308e-14 5.20061e-14 0.785398"/>
      <geometry>
        <mesh filename="package://assets/0001755650_00mini_000_asm_1_asm_1_asm_00mini__20250103_a0001_asm_1_as_asm_1_1_30_gr_2202_asm_1_asm_1_1_30_gr_2202_asm_fl46blw10_48v_5n_m_de_2__fl46blw10_48v_5n_m_de.stl"/>
      </geometry>
    </collision>
  </link>
  <!-- Link ankle_subassembly_2 -->
  <link name="ankle_subassembly_2">
    <inertial>
      <origin xyz="1.62086e-08 -0.000727483 0.02" rpy="0 0 0"/>
      <mass value="0.0168168"/>
      <inertia ixx="5.19458e-06" ixy="-2.61119e-12" ixz="4.35145e-12" iyy="4.86353e-06" iyz="7.24871e-13" izz="8.35665e-07"/>
    </inertial>
    <!-- Part hex_socket_head_cap_screw_m2_5x0_45_x_6__ec244025d76f8b83b2775022a2cb3232_22 -->
    <!-- Part 07534_05x40_catpart_4 -->
    <visual>
      <origin xyz="-4.77396e-15 0.0249999 0.02" rpy="2.08266e-13 2.98922e-14 -1.5708"/>
      <geometry>
        <mesh filename="package://assets/07534_05x40_catpart.stl"/>
      </geometry>
      <material name="07534_05x40_catpart_4_material">
        <color rgba="0.690196 0.690196 0.690196 1"/>
      </material>
    </visual>
    <collision>
      <origin xyz="-4.77396e-15 0.0249999 0.02" rpy="2.08266e-13 2.98922e-14 -1.5708"/>
      <geometry>
        <mesh filename="package://assets/07534_05x40_catpart.stl"/>
      </geometry>
    </collision>
    <!-- Part ujoint_2 -->
    <visual>
      <origin xyz="-7.77156e-16 -4.65253e-15 0.02" rpy="-3.14159 -1.5708 0"/>
      <geometry>
        <mesh filename="package://assets/ujoint.stl"/>
      </geometry>
      <material name="ujoint_2_material">
        <color rgba="1 0 0 1"/>
      </material>
    </visual>
    <collision>
      <origin xyz="-7.77156e-16 -4.65253e-15 0.02" rpy="-3.14159 -1.5708 0"/>
      <geometry>
        <mesh filename="package://assets/ujoint.stl"/>
      </geometry>
    </collision>
    <!-- Part hex_socket_head_cap_screw_m2_5x0_45_x_6__ec244025d76f8b83b2775022a2cb3232_23 -->
    <!-- Part spacer_ujoint_3 -->
    <visual>
      <origin xyz="2.22045e-16 -6.91114e-15 0.02" rpy="-3.14159 1.54943 -3.14159"/>
      <geometry>
        <mesh filename="package://assets/spacer_ujoint.stl"/>
      </geometry>
      <material name="spacer_ujoint_3_material">
        <color rgba="0.917647 0.917647 0.917647 1"/>
      </material>
    </visual>
    <collision>
      <origin xyz="2.22045e-16 -6.91114e-15 0.02" rpy="-3.14159 1.54943 -3.14159"/>
      <geometry>
        <mesh filename="package://assets/spacer_ujoint.stl"/>
      </geometry>
    </collision>
    <!-- Part hex_thin_nut_grade_a___b_m4x0_7__a8228d9ce5dcc05f24da0a2f74d882f3_8 -->
    <visual>
      <origin xyz="-2.25375e-14 -0.02204 0.02" rpy="1.5708 1.54943 -3.14159"/>
      <geometry>
        <mesh filename="package://assets/hex_thin_nut_grade_a___b_m4x0_7__a8228d9ce5dcc05f24da0a2f74d882f3.stl"/>
      </geometry>
      <material name="hex_thin_nut_grade_a___b_m4x0_7__a8228d9ce5dcc05f24da0a2f74d882f3_8_material">
        <color rgba="0.603922 0.647059 0.686275 1"/>
      </material>
    </visual>
    <collision>
      <origin xyz="-2.25375e-14 -0.02204 0.02" rpy="1.5708 1.54943 -3.14159"/>
      <geometry>
        <mesh filename="package://assets/hex_thin_nut_grade_a___b_m4x0_7__a8228d9ce5dcc05f24da0a2f74d882f3.stl"/>
      </geometry>
    </collision>
    <!-- Part part_3_5 -->
    <visual>
      <origin xyz="1.11022e-15 -6.11663e-15 0.0205" rpy="-3.14159 -1.5708 0"/>
      <geometry>
        <mesh filename="package://assets/part_3.stl"/>
      </geometry>
      <material name="part_3_5_material">
        <color rgba="1 0 0 1"/>
      </material>
    </visual>
    <collision>
      <origin xyz="1.11022e-15 -6.11663e-15 0.0205" rpy="-3.14159 -1.5708 0"/>
      <geometry>
        <mesh filename="package://assets/part_3.stl"/>
      </geometry>
    </collision>
    <!-- Part bearing_5_16_5_7 -->
    <visual>
      <origin xyz="8.54872e-15 -0.01594 0.02" rpy="3.14159 1.54943 -3.14159"/>
      <geometry>
        <mesh filename="package://assets/bearing_5_16_5.stl"/>
      </geometry>
      <material name="bearing_5_16_5_7_material">
        <color rgba="0.917647 0.917647 0.917647 1"/>
      </material>
    </visual>
    <collision>
      <origin xyz="8.54872e-15 -0.01594 0.02" rpy="3.14159 1.54943 -3.14159"/>
      <geometry>
        <mesh filename="package://assets/bearing_5_16_5.stl"/>
      </geometry>
    </collision>
    <!-- Part bearing_15_21_4_13 -->
    <visual>
      <origin xyz="-5.55112e-16 -8.67709e-15 0.04" rpy="-1.5708 -1.32864e-15 -3.14159"/>
      <geometry>
        <mesh filename="package://assets/bearing_15_21_4.stl"/>
      </geometry>
      <material name="bearing_15_21_4_13_material">
        <color rgba="0.647059 0.647059 0.647059 1"/>
      </material>
    </visual>
    <collision>
      <origin xyz="-5.55112e-16 -8.67709e-15 0.04" rpy="-1.5708 -1.32864e-15 -3.14159"/>
      <geometry>
        <mesh filename="package://assets/bearing_15_21_4.stl"/>
      </geometry>
    </collision>
    <!-- Part hex_socket_head_cap_screw_m2_5x0_45_x_6__ec244025d76f8b83b2775022a2cb3232_24 -->
    <!-- Part hex_socket_head_cap_screw_m2_5x0_45_x_6__ec244025d76f8b83b2775022a2cb3232_25 -->
    <!-- Part part_3_6 -->
    <visual>
      <origin xyz="-2.33147e-15 -2.26555e-15 0.0195" rpy="3.14159 1.5708 0"/>
      <geometry>
        <mesh filename="package://assets/part_3.stl"/>
      </geometry>
      <material name="part_3_6_material">
        <color rgba="1 0 0 1"/>
      </material>
    </visual>
    <collision>
      <origin xyz="-2.33147e-15 -2.26555e-15 0.0195" rpy="3.14159 1.5708 0"/>
      <geometry>
        <mesh filename="package://assets/part_3.stl"/>
      </geometry>
    </collision>
    <!-- Part hex_socket_head_cap_screw_m2_5x0_45_x_6__ec244025d76f8b83b2775022a2cb3232_26 -->
    <!-- Part hex_socket_head_cap_screw_m2_5x0_45_x_6__ec244025d76f8b83b2775022a2cb3232_27 -->
    <!-- Part bearing_5_16_5_8 -->
    <visual>
      <origin xyz="3.44169e-15 0.0209456 0.02" rpy="-4.0826e-14 -0.0146585 1.26585e-13"/>
      <geometry>
        <mesh filename="package://assets/bearing_5_16_5.stl"/>
      </geometry>
      <material name="bearing_5_16_5_8_material">
        <color rgba="0.917647 0.917647 0.917647 1"/>
      </material>
    </visual>
    <collision>
      <origin xyz="3.44169e-15 0.0209456 0.02" rpy="-4.0826e-14 -0.0146585 1.26585e-13"/>
      <geometry>
        <mesh filename="package://assets/bearing_5_16_5.stl"/>
      </geometry>
    </collision>
    <!-- Part spacer_ujoint_4 -->
    <visual>
      <origin xyz="5.32907e-15 5.64895e-06 0.02" rpy="3.29862e-12 -1.55614 3.14159"/>
      <geometry>
        <mesh filename="package://assets/spacer_ujoint.stl"/>
      </geometry>
      <material name="spacer_ujoint_4_material">
        <color rgba="0.917647 0.917647 0.917647 1"/>
      </material>
    </visual>
    <collision>
      <origin xyz="5.32907e-15 5.64895e-06 0.02" rpy="3.29862e-12 -1.55614 3.14159"/>
      <geometry>
        <mesh filename="package://assets/spacer_ujoint.stl"/>
      </geometry>
    </collision>
    <!-- Part bearing_15_21_4_14 -->
    <visual>
      <origin xyz="0 0 0" rpy="1.5708 -6.34359e-19 -2.40018e-21"/>
      <geometry>
        <mesh filename="package://assets/bearing_15_21_4.stl"/>
      </geometry>
      <material name="bearing_15_21_4_14_material">
        <color rgba="0.647059 0.647059 0.647059 1"/>
      </material>
    </visual>
    <collision>
      <origin xyz="0 0 0" rpy="1.5708 -6.34359e-19 -2.40018e-21"/>
      <geometry>
        <mesh filename="package://assets/bearing_15_21_4.stl"/>
      </geometry>
    </collision>
  </link>
  <!-- Link foot_subassembly_2 -->
  <link name="foot_subassembly_2">
    <inertial>
      <origin xyz="8.52312e-09 -0.0138418 -0.052232" rpy="0 0 0"/>
      <mass value="0.122498"/>
      <inertia ixx="0.000163413" ixy="-1.15065e-10" ixz="-2.96383e-11" iyy="0.000162266" iyz="1.11374e-05" izz="7.07692e-05"/>
    </inertial>
    <!-- Part hex_socket_head_cap_screw_m2_5x0_45_x_6__ec244025d76f8b83b2775022a2cb3232_28 -->
    <!-- Part 27628_01_050_catpart_7 -->
    <visual>
      <origin xyz="0.021 3.53792e-08 -0.0660002" rpy="-3.14159 -2.0787e-17 1.5708"/>
      <geometry>
        <mesh filename="package://assets/27628_01_050_catpart.stl"/>
      </geometry>
      <material name="27628_01_050_catpart_7_material">
        <color rgba="0.690196 0.690196 0.690196 1"/>
      </material>
    </visual>
    <collision>
      <origin xyz="0.021 3.53792e-08 -0.0660002" rpy="-3.14159 -2.0787e-17 1.5708"/>
      <geometry>
        <mesh filename="package://assets/27628_01_050_catpart.stl"/>
      </geometry>
    </collision>
    <!-- Part hex_socket_head_cap_screw_m2_5x0_45_x_6__ec244025d76f8b83b2775022a2cb3232_29 -->
    <!-- Part 07534_05x20_catpart_7 -->
    <visual>
      <origin xyz="0.036 0 -0.066" rpy="3.14159 3.29172e-17 3.14159"/>
      <geometry>
        <mesh filename="package://assets/07534_05x20_catpart.stl"/>
      </geometry>
      <material name="07534_05x20_catpart_7_material">
        <color rgba="0.690196 0.690196 0.690196 1"/>
      </material>
    </visual>
    <collision>
      <origin xyz="0.036 0 -0.066" rpy="3.14159 3.29172e-17 3.14159"/>
      <geometry>
        <mesh filename="package://assets/07534_05x20_catpart.stl"/>
      </geometry>
    </collision>
    <!-- Part 27628_01_050_catpart_8 -->
    <visual>
      <origin xyz="-0.021 -1.89504e-08 -0.066" rpy="3.14159 -1.6607e-17 1.5708"/>
      <geometry>
        <mesh filename="package://assets/27628_01_050_catpart.stl"/>
      </geometry>
      <material name="27628_01_050_catpart_8_material">
        <color rgba="0.690196 0.690196 0.690196 1"/>
      </material>
    </visual>
    <collision>
      <origin xyz="-0.021 -1.89504e-08 -0.066" rpy="3.14159 -1.6607e-17 1.5708"/>
      <geometry>
        <mesh filename="package://assets/27628_01_050_catpart.stl"/>
      </geometry>
    </collision>
    <!-- Part 07534_05x20_catpart_8 -->
    <visual>
      <origin xyz="-0.036 0 -0.066" rpy="2.55615e-17 3.48371e-17 3.97989e-16"/>
      <geometry>
        <mesh filename="package://assets/07534_05x20_catpart.stl"/>
      </geometry>
      <material name="07534_05x20_catpart_8_material">
        <color rgba="0.690196 0.690196 0.690196 1"/>
      </material>
    </visual>
    <collision>
      <origin xyz="-0.036 0 -0.066" rpy="2.55615e-17 3.48371e-17 3.97989e-16"/>
      <geometry>
        <mesh filename="package://assets/07534_05x20_catpart.stl"/>
      </geometry>
    </collision>
    <!-- Part hat_small_2 -->
    <visual>
      <origin xyz="2.35922e-16 -0.035 -0.0385" rpy="-1.5708 -1.5708 0"/>
      <geometry>
        <mesh filename="package://assets/hat_small.stl"/>
      </geometry>
      <material name="hat_small_2_material">
        <color rgba="1 0 0 1"/>
      </material>
    </visual>
    <collision>
      <origin xyz="2.35922e-16 -0.035 -0.0385" rpy="-1.5708 -1.5708 0"/>
      <geometry>
        <mesh filename="package://assets/hat_small.stl"/>
      </geometry>
    </collision>
    <!-- Part hex_socket_head_cap_screw_m2_5x0_45_x_6__ec244025d76f8b83b2775022a2cb3232_30 -->
    <!-- Part foot_2 -->
    <visual>
      <origin xyz="1.249e-16 -0.035 -0.0385" rpy="-1.5708 -1.5708 0"/>
      <geometry>
        <mesh filename="package://assets/foot.stl"/>
      </geometry>
      <material name="foot_2_material">
        <color rgba="0.301961 0.301961 0.301961 1"/>
      </material>
    </visual>
    <collision>
      <origin xyz="1.249e-16 -0.035 -0.0385" rpy="-1.5708 -1.5708 0"/>
      <geometry>
        <mesh filename="package://assets/foot.stl"/>
      </geometry>
    </collision>
  </link>
  <!-- Frame foot_left (dummy link + fixed joint) -->
  <link name="foot_left">
    <origin xyz="0 0 0" rpy="0 -0 0"/>
    <inertial>
      <origin xyz="0 0 0" rpy="0 0 0"/>
      <mass value="1e-9"/>
      <inertia ixx="0" ixy="0" ixz="0" iyy="0" iyz="0" izz="0"/>
    </inertial>
  </link>
  <joint name="foot_left_frame" type="fixed">
    <origin xyz="-6.35351e-08 -0.035 -0.0480606" rpy="-1.5708 1.5708 0"/>
    <parent link="foot_subassembly_2"/>
    <child link="foot_left"/>
    <axis xyz="0 0 0"/>
  </joint>
  <!-- Joint from ankle_subassembly_2 to foot_subassembly_2 -->
  <joint name="anklex_left" type="revolute">
    <origin xyz="8.54872e-15 -0.01594 0.02" rpy="1.5708 -1.56386 -1.68144e-13"/>
    <parent link="ankle_subassembly_2"/>
    <child link="foot_subassembly_2"/>
    <axis xyz="0 0 1"/>
    <limit effort="10" velocity="10" lower="-3.141592653589793" upper="3.141592653589793"/>
  </joint>
  <!-- Joint from shin_subassembly_sym to ankle_subassembly_2 -->
  <joint name="ankley_left" type="revolute">
    <origin xyz="-4.996e-16 -0.26 -0.02" rpy="-1.8516e-15 -1.64424e-15 -0.955182"/>
    <parent link="shin_subassembly_sym"/>
    <child link="ankle_subassembly_2"/>
    <axis xyz="0 0 1"/>
    <limit effort="10" velocity="10" lower="-3.141592653589793" upper="3.141592653589793"/>
  </joint>
  <!-- Joint from tigh_subassembly_sym to shin_subassembly_sym -->
  <joint name="knee_left" type="revolute">
    <origin xyz="-0.17 -0.294449 -0.0305" rpy="2.37199e-15 -8.32366e-17 -1.52464"/>
    <parent link="tigh_subassembly_sym"/>
    <child link="shin_subassembly_sym"/>
    <axis xyz="0 0 1"/>
    <limit effort="10" velocity="10" lower="-3.141592653589793" upper="3.141592653589793"/>
  </joint>
  <!-- Joint from hipy_subassembly_sym to tigh_subassembly_sym -->
  <joint name="hipy_left" type="revolute">
    <origin xyz="0.012638 0.0276823 -0.112055" rpy="1.65228 -0.597222 2.66793"/>
    <parent link="hipy_subassembly_sym"/>
    <child link="tigh_subassembly_sym"/>
    <axis xyz="0 0 1"/>
    <limit effort="10" velocity="10" lower="-3.141592653589793" upper="3.141592653589793"/>
  </joint>
  <!-- Joint from hipx_subassemby_sym to hipy_subassembly_sym -->
  <joint name="hipx_left" type="revolute">
    <origin xyz="-0.01897 0.0289 -0.09689" rpy="0.0666787 0.313077 2.365"/>
    <parent link="hipx_subassemby_sym"/>
    <child link="hipy_subassembly_sym"/>
    <axis xyz="0 0 1"/>
    <limit effort="10" velocity="10" lower="-3.141592653589793" upper="3.141592653589793"/>
  </joint>
  <!-- Joint from torso_subassembly to hipx_subassemby_sym -->
  <joint name="hipz_left" type="revolute">
    <origin xyz="-0.000819037 0.13316 0.04164" rpy="-0.0497558 0.132222 1.18484"/>
    <parent link="torso_subassembly"/>
    <child link="hipx_subassemby_sym"/>
    <axis xyz="0 0 1"/>
    <limit effort="10" velocity="10" lower="-3.141592653589793" upper="3.141592653589793"/>
  </joint>
  <!-- Link torso_mesh -->
  <link name="torso_mesh">
    <inertial>
      <origin xyz="-2.38855e-06 3.15368e-57 -0.229519" rpy="0 0 0"/>
      <mass value="4"/>
      <inertia ixx="0.0564008" ixy="6.54226e-46" ixz="-1.78695e-06" iyy="0.0460323" iyz="2.25397e-61" izz="0.0120348"/>
    </inertial>
    <!-- Part torso_mesh -->
    <visual>
      <origin xyz="0.025 -0.503548 -0.15" rpy="3.14159 -0 -1.26135e-55"/>
      <geometry>
        <mesh filename="package://assets/torso_mesh.stl"/>
      </geometry>
      <material name="torso_mesh_material">
        <color rgba="0.301961 0.301961 0.301961 1"/>
      </material>
    </visual>
    <collision>
      <origin xyz="0.025 -0.503548 -0.15" rpy="3.14159 -0 -1.26135e-55"/>
      <geometry>
        <mesh filename="package://assets/torso_mesh.stl"/>
      </geometry>
    </collision>
  </link>
  <!-- Joint from torso_subassembly to torso_mesh -->
  <joint name="mesh" type="fixed">
    <origin xyz="0 0 -0.1" rpy="3.14159 5.06304e-15 -3.16699e-29"/>
    <parent link="torso_subassembly"/>
    <child link="torso_mesh"/>
    <axis xyz="0 0 1"/>
    <limit effort="10" velocity="10"/>
  </joint>
</robot>
